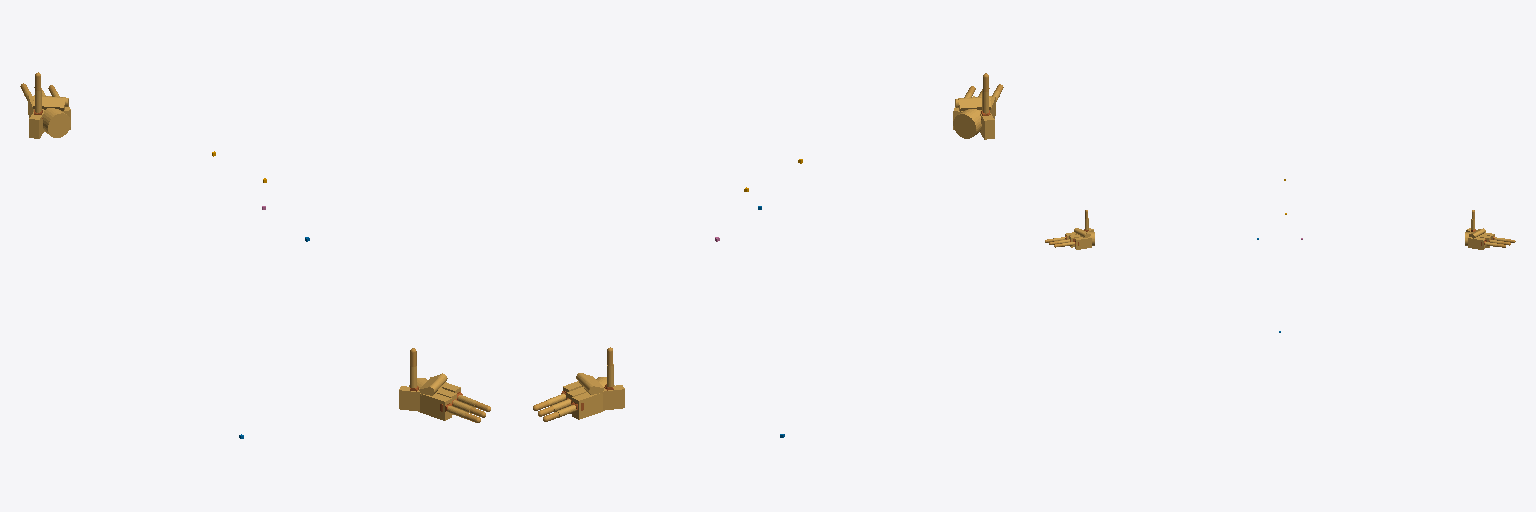
--- Render facts (derived) ---
3 views of the same robot in one strip: view 1: azimuth 30°, elevation 25°; view 2: azimuth 150°, elevation 25°; view 3: azimuth 270°, elevation 25° (orthographic).
Model atlas with 113 links and 112 joints (52 revolute, 1 continuous, 59 fixed), rooted at pelvis, posed every joint at zero.
Links seen in each view (by area): view 1: right_palm, left_palm; view 2: left_palm, right_palm; view 3: none.
Boxes of the visible links, x1,y1,x2,y2 form: right_palm: [399, 373, 460, 420]; left_palm: [28, 95, 70, 138]; left_palm: [563, 373, 624, 419]; right_palm: [953, 96, 995, 139].
Bounding box of the posed robot: 0.2424 × 2.6 × 0.901 m (x, y, z).
Meshes: 31 distinct files referenced, 0 mesh visuals loaded (none loaded); not drawn: 31 (reference not matched to a file when rendering).

robot.urdf — atlas:
<?xml version="1.0" ?>
<!-- =================================================================================== -->
<!-- |    This document was autogenerated by xacro from atlas_v3_sandia_hands.urdf.xacro | -->
<!-- |    EDITING THIS FILE BY HAND IS NOT RECOMMENDED                                 | -->
<!-- =================================================================================== -->
<robot name="atlas" xmlns:xacro="http://www.ros.org/wiki/xacro">
  <link name="l_clav">
    <inertial>
      <mass value="3.45"/>
      <origin rpy="0 -0 0" xyz="0 0.048 0.084"/>
      <inertia ixx="0.011" ixy="0" ixz="0" iyy="0.009" iyz="-0.004" izz="0.004"/>
    </inertial>
    <visual>
      <origin rpy="0 -0 0" xyz="0 0 0"/>
      <geometry>
        <mesh filename="package://atlas_description/meshes_v3/l_clav.dae" scale="1 1 1"/>
      </geometry>
    </visual>
    <collision>
      <origin rpy="0 -0 0" xyz="0 0 0"/>
      <geometry>
        <mesh filename="package://atlas_description/meshes_v3/l_clav.stl" scale="1 1 1"/>
      </geometry>
    </collision>
  </link>
  <link name="l_farm">
    <inertial>
      <mass value="3.388"/>
      <origin rpy="0 -0 0" xyz="0 -0.065 0"/>
      <inertia ixx="0.00656" ixy="0" ixz="0" iyy="0.00358" iyz="0" izz="0.00656"/>
    </inertial>
    <visual>
      <origin rpy="0 -0 0" xyz="0 0 0"/>
      <geometry>
        <mesh filename="package://atlas_description/meshes_v3/l_farm.dae" scale="1 1 1"/>
      </geometry>
    </visual>
    <collision>
      <origin rpy="0 -0 0" xyz="0 0 0"/>
      <geometry>
        <mesh filename="package://atlas_description/meshes_v3/l_farm.stl" scale="1 1 1"/>
      </geometry>
    </collision>
  </link>
  <link name="l_foot">
    <inertial>
      <mass value="2.05"/>
      <origin rpy="0 -0 0" xyz="0.027 0 -0.067"/>
      <inertia ixx="0.002" ixy="0" ixz="0" iyy="0.007" iyz="0" izz="0.008"/>
    </inertial>
    <visual>
      <origin rpy="0 -0 0" xyz="0 0 0"/>
      <geometry>
        <mesh filename="package://atlas_description/meshes_v3/l_foot.dae" scale="1 1 1"/>
      </geometry>
    </visual>
    <collision>
      <origin rpy="0 -0 0" xyz="0 0 0"/>
      <geometry>
        <mesh filename="package://atlas_description/meshes_v3/l_foot.stl" scale="1 1 1"/>
      </geometry>
    </collision>
  </link>
  <link name="l_hand">
    <inertial>
      <mass value="2.509"/>
      <origin rpy="0 -0 0" xyz="0 0 0"/>
      <inertia ixx="0.00265" ixy="0" ixz="0" iyy="0.00446" iyz="0" izz="0.00446"/>
    </inertial>
    <visual>
      <origin rpy="0 -0 0" xyz="0 0 0"/>
      <geometry>
        <mesh filename="package://atlas_description/meshes_v3/l_hand.dae" scale="1 1 1"/>
      </geometry>
    </visual>
    <collision>
      <origin rpy="0 -0 0" xyz="0 0 0"/>
      <geometry>
        <mesh filename="package://atlas_description/meshes_v3/l_hand.stl" scale="1 1 1"/>
      </geometry>
    </collision>
  </link>
  <link name="l_larm">
    <inertial>
      <mass value="2.509"/>
      <origin rpy="0 -0 0" xyz="0 0 0"/>
      <inertia ixx="0.00265" ixy="0" ixz="0" iyy="0.00446" iyz="0" izz="0.00446"/>
    </inertial>
    <visual>
      <origin rpy="0 -0 0" xyz="0 0 0"/>
      <geometry>
        <mesh filename="package://atlas_description/meshes_v3/l_larm.dae" scale="1 1 1"/>
      </geometry>
    </visual>
    <collision>
      <origin rpy="0 -0 0" xyz="0 0 0"/>
      <geometry>
        <mesh filename="package://atlas_description/meshes_v3/l_larm.stl" scale="1 1 1"/>
      </geometry>
    </collision>
  </link>
  <link name="l_lglut">
    <inertial>
      <mass value="0.866"/>
      <origin rpy="0 -0 0" xyz="0.0133341 0.0170484 -0.0312052"/>
      <inertia ixx="0.000691326" ixy="-2.24344e-05" ixz="2.50508e-06" iyy="0.00126856" iyz="0.000137862" izz="0.00106487"/>
    </inertial>
    <visual>
      <origin rpy="0 -0 0" xyz="0 0 0"/>
      <geometry>
        <mesh filename="package://atlas_description/meshes_v3/l_lglut.dae" scale="1 1 1"/>
      </geometry>
    </visual>
    <collision>
      <origin rpy="0 -0 0" xyz="0 0 0"/>
      <geometry>
        <mesh filename="package://atlas_description/meshes_v3/l_lglut.stl" scale="1 1 1"/>
      </geometry>
    </collision>
  </link>
  <link name="l_lleg">
    <inertial>
      <mass value="5.479"/>
      <origin rpy="0 -0 0" xyz="0.001 0 -0.187"/>
      <inertia ixx="0.077" ixy="0" ixz="-0.003" iyy="0.076" iyz="0" izz="0.01"/>
    </inertial>
    <visual>
      <origin rpy="0 -0 0" xyz="0 0 0"/>
      <geometry>
        <mesh filename="package://atlas_description/meshes_v3/l_lleg.dae" scale="1 1 1"/>
      </geometry>
    </visual>
    <collision>
      <origin rpy="0 -0 0" xyz="0 0 0"/>
      <geometry>
        <mesh filename="package://atlas_description/meshes_v3/l_lleg.stl" scale="1 1 1"/>
      </geometry>
    </collision>
  </link>
  <link name="l_scap">
    <inertial>
      <mass value="3.012"/>
      <origin rpy="0 -0 0" xyz="0 0 0"/>
      <inertia ixx="0.00319" ixy="0" ixz="0" iyy="0.00583" iyz="0" izz="0.00583"/>
    </inertial>
    <visual>
      <origin rpy="0 -0 0" xyz="0 0 0"/>
      <geometry>
        <mesh filename="package://atlas_description/meshes_v3/l_scap.dae" scale="1 1 1"/>
      </geometry>
    </visual>
    <collision>
      <origin rpy="0 -0 0" xyz="0 0 0"/>
      <geometry>
        <mesh filename="package://atlas_description/meshes_v3/l_scap.stl" scale="1 1 1"/>
      </geometry>
    </collision>
  </link>
  <link name="l_talus">
    <inertial>
      <mass value="0.125"/>
      <origin rpy="0 -0 0" xyz="0 0 0"/>
      <inertia ixx="1.01674e-05" ixy="0" ixz="0" iyy="8.42775e-06" iyz="0" izz="1.30101e-05"/>
    </inertial>
    <visual>
      <origin rpy="0 -0 0" xyz="0 0 0"/>
      <geometry>
        <mesh filename="package://atlas_description/meshes_v3/l_talus.dae" scale="1 1 1"/>
      </geometry>
    </visual>
    <collision>
      <origin rpy="0 -0 0" xyz="0 0 0"/>
      <geometry>
        <mesh filename="package://atlas_description/meshes_v3/l_talus.stl" scale="1 1 1"/>
      </geometry>
    </collision>
  </link>
  <link name="l_uarm">
    <inertial>
      <mass value="3.388"/>
      <origin rpy="0 -0 0" xyz="0 -0.065 0"/>
      <inertia ixx="0.00656" ixy="0" ixz="0" iyy="0.00358" iyz="0" izz="0.00656"/>
    </inertial>
    <visual>
      <origin rpy="0 -0 0" xyz="0 0 0"/>
      <geometry>
        <mesh filename="package://atlas_description/meshes_v3/l_uarm.dae" scale="1 1 1"/>
      </geometry>
    </visual>
    <collision>
      <origin rpy="0 -0 0" xyz="0 0 0"/>
      <geometry>
        <mesh filename="package://atlas_description/meshes_v3/l_uarm.stl" scale="1 1 1"/>
      </geometry>
    </collision>
  </link>
  <link name="l_uglut">
    <inertial>
      <mass value="0.648"/>
      <origin rpy="0 -0 0" xyz="0.00529262 -0.00344732 0.00313046"/>
      <inertia ixx="0.00074276" ixy="-3.79607e-08" ixz="-2.79549e-05" iyy="0.000688179" iyz="-3.2735e-08" izz="0.00041242"/>
    </inertial>
    <visual>
      <origin rpy="0 -0 0" xyz="0 0 0"/>
      <geometry>
        <mesh filename="package://atlas_description/meshes_v3/l_uglut.dae" scale="1 1 1"/>
      </geometry>
    </visual>
    <collision>
      <origin rpy="0 -0 0" xyz="0 0 0"/>
      <geometry>
        <mesh filename="package://atlas_description/meshes_v3/l_uglut.stl" scale="1 1 1"/>
      </geometry>
    </collision>
  </link>
  <link name="l_uleg">
    <inertial>
      <mass value="9.209"/>
      <origin rpy="0 -0 0" xyz="0 0 -0.21"/>
      <inertia ixx="0.09" ixy="0" ixz="0" iyy="0.09" iyz="0" izz="0.02"/>
    </inertial>
    <visual>
      <origin rpy="0 -0 0" xyz="0 0 0"/>
      <geometry>
        <mesh filename="package://atlas_description/meshes_v3/l_uleg.dae" scale="1 1 1"/>
      </geometry>
    </visual>
    <collision>
      <origin rpy="0 -0 0" xyz="0 0 0"/>
      <geometry>
        <mesh filename="package://atlas_description/meshes_v3/l_uleg.stl" scale="1 1 1"/>
      </geometry>
    </collision>
  </link>
  <link name="ltorso">
    <inertial>
      <mass value="2.409"/>
      <origin rpy="0 -0 0" xyz="-0.0112984 -3.15366e-06 0.0746835"/>
      <inertia ixx="0.0039092" ixy="-5.04491e-08" ixz="-0.000342157" iyy="0.00341694" iyz="4.87119e-07" izz="0.00174492"/>
    </inertial>
    <visual>
      <origin rpy="0 -0 0" xyz="0 0 0"/>
      <geometry>
        <mesh filename="package://atlas_description/meshes_v3/ltorso.dae" scale="1 1 1"/>
      </geometry>
    </visual>
    <collision>
      <origin rpy="0 -0 0" xyz="0 0 0"/>
      <geometry>
        <mesh filename="package://atlas_description/meshes_v3/ltorso.stl" scale="1 1 1"/>
      </geometry>
    </collision>
  </link>
  <link name="mtorso">
    <inertial>
      <mass value="0.69"/>
      <origin rpy="0 -0 0" xyz="-0.00816266 -0.0131245 0.0305974"/>
      <inertia ixx="0.000454181" ixy="-6.10764e-05" ixz="3.94009e-05" iyy="0.000483282" iyz="5.27463e-05" izz="0.000444215"/>
    </inertial>
    <visual>
      <origin rpy="0 -0 0" xyz="0 0 0"/>
      <geometry>
        <mesh filename="package://atlas_description/meshes_v3/mtorso.dae" scale="1 1 1"/>
      </geometry>
    </visual>
    <collision>
      <origin rpy="0 -0 0" xyz="0 0 0"/>
      <geometry>
        <mesh filename="package://atlas_description/meshes_v3/mtorso.stl" scale="1 1 1"/>
      </geometry>
    </collision>
  </link>
  <link name="pelvis">
    <inertial>
      <mass value="17.882"/>
      <origin rpy="0 -0 0" xyz="0.0111 0 0.0271"/>
      <inertia ixx="0.1244" ixy="0.0008" ixz="-0.0007" iyy="0.0958" iyz="-0.0005" izz="0.1167"/>
    </inertial>
    <visual>
      <origin rpy="0 -0 0" xyz="0 0 0"/>
      <geometry>
        <mesh filename="package://atlas_description/meshes_v3/pelvis.dae" scale="1 1 1"/>
      </geometry>
    </visual>
    <collision>
      <origin rpy="0 -0 0" xyz="0 0 0"/>
      <geometry>
        <mesh filename="package://atlas_description/meshes_v3/pelvis.stl" scale="1 1 1"/>
      </geometry>
    </collision>
  </link>
  <link name="r_clav">
    <inertial>
      <mass value="3.45"/>
      <origin rpy="0 -0 0" xyz="0 -0.048 0.084"/>
      <inertia ixx="0.011" ixy="0" ixz="0" iyy="0.009" iyz="0.004" izz="0.004"/>
    </inertial>
    <visual>
      <origin rpy="0 -0 0" xyz="0 0 0"/>
      <geometry>
        <mesh filename="package://atlas_description/meshes_v3/r_clav.dae" scale="1 1 1"/>
      </geometry>
    </visual>
    <collision>
      <origin rpy="0 -0 0" xyz="0 0 0"/>
      <geometry>
        <mesh filename="package://atlas_description/meshes_v3/r_clav.stl" scale="1 1 1"/>
      </geometry>
    </collision>
  </link>
  <link name="r_farm">
    <inertial>
      <mass value="3.388"/>
      <origin rpy="0 -0 0" xyz="0 0.065 0"/>
      <inertia ixx="0.00656" ixy="0" ixz="0" iyy="0.00358" iyz="0" izz="0.00656"/>
    </inertial>
    <visual>
      <origin rpy="0 -0 0" xyz="0 0 0"/>
      <geometry>
        <mesh filename="package://atlas_description/meshes_v3/r_farm.dae" scale="1 1 1"/>
      </geometry>
    </visual>
    <collision>
      <origin rpy="0 -0 0" xyz="0 0 0"/>
      <geometry>
        <mesh filename="package://atlas_description/meshes_v3/r_farm.stl" scale="1 1 1"/>
      </geometry>
    </collision>
  </link>
  <link name="r_foot">
    <inertial>
      <mass value="2.05"/>
      <origin rpy="0 -0 0" xyz="0.027 0 -0.067"/>
      <inertia ixx="0.002" ixy="0" ixz="0" iyy="0.007" iyz="0" izz="0.008"/>
    </inertial>
    <visual>
      <origin rpy="0 -0 0" xyz="0 0 0"/>
      <geometry>
        <mesh filename="package://atlas_description/meshes_v3/r_foot.dae" scale="1 1 1"/>
      </geometry>
    </visual>
    <collision>
      <origin rpy="0 -0 0" xyz="0 0 0"/>
      <geometry>
        <mesh filename="package://atlas_description/meshes_v3/r_foot.stl" scale="1 1 1"/>
      </geometry>
    </collision>
  </link>
  <link name="r_hand">
    <inertial>
      <mass value="2.509"/>
      <origin rpy="0 -0 0" xyz="0 0 0"/>
      <inertia ixx="0.00265" ixy="0" ixz="0" iyy="0.00446" iyz="0" izz="0.00446"/>
    </inertial>
    <visual>
      <origin rpy="0 -0 0" xyz="0 0 0"/>
      <geometry>
        <mesh filename="package://atlas_description/meshes_v3/r_hand.dae" scale="1 1 1"/>
      </geometry>
    </visual>
    <collision>
      <origin rpy="0 -0 0" xyz="0 0 0"/>
      <geometry>
        <mesh filename="package://atlas_description/meshes_v3/r_hand.stl" scale="1 1 1"/>
      </geometry>
    </collision>
  </link>
  <link name="r_larm">
    <inertial>
      <mass value="2.509"/>
      <origin rpy="0 -0 0" xyz="0 0 0"/>
      <inertia ixx="0.00265" ixy="0" ixz="0" iyy="0.00446" iyz="0" izz="0.00446"/>
    </inertial>
    <visual>
      <origin rpy="0 -0 0" xyz="0 0 0"/>
      <geometry>
        <mesh filename="package://atlas_description/meshes_v3/r_larm.dae" scale="1 1 1"/>
      </geometry>
    </visual>
    <collision>
      <origin rpy="0 -0 0" xyz="0 0 0"/>
      <geometry>
        <mesh filename="package://atlas_description/meshes_v3/r_larm.stl" scale="1 1 1"/>
      </geometry>
    </collision>
  </link>
  <link name="r_lglut">
    <inertial>
      <mass value="0.866"/>
      <origin rpy="0 -0 0" xyz="0.0133341 -0.0170484 -0.0312052"/>
      <inertia ixx="0.000691326" ixy="2.24344e-05" ixz="2.50508e-06" iyy="0.00126856" iyz="-0.000137862" izz="0.00106487"/>
    </inertial>
    <visual>
      <origin rpy="0 -0 0" xyz="0 0 0"/>
      <geometry>
        <mesh filename="package://atlas_description/meshes_v3/r_lglut.dae" scale="1 1 1"/>
      </geometry>
    </visual>
    <collision>
      <origin rpy="0 -0 0" xyz="0 0 0"/>
      <geometry>
        <mesh filename="package://atlas_description/meshes_v3/r_lglut.stl" scale="1 1 1"/>
      </geometry>
    </collision>
  </link>
  <link name="r_lleg">
    <inertial>
      <mass value="5.479"/>
      <origin rpy="0 -0 0" xyz="0.001 0 -0.187"/>
      <inertia ixx="0.077" ixy="-0" ixz="-0.003" iyy="0.076" iyz="-0" izz="0.01"/>
    </inertial>
    <visual>
      <origin rpy="0 -0 0" xyz="0 0 0"/>
      <geometry>
        <mesh filename="package://atlas_description/meshes_v3/r_lleg.dae" scale="1 1 1"/>
      </geometry>
    </visual>
    <collision>
      <origin rpy="0 -0 0" xyz="0 0 0"/>
      <geometry>
        <mesh filename="package://atlas_description/meshes_v3/r_lleg.stl" scale="1 1 1"/>
      </geometry>
    </collision>
  </link>
  <link name="r_scap">
    <inertial>
      <mass value="3.012"/>
      <origin rpy="0 -0 0" xyz="0 0 0"/>
      <inertia ixx="0.00319" ixy="0" ixz="0" iyy="0.00583" iyz="0" izz="0.00583"/>
    </inertial>
    <visual>
      <origin rpy="0 -0 0" xyz="0 0 0"/>
      <geometry>
        <mesh filename="package://atlas_description/meshes_v3/r_scap.dae" scale="1 1 1"/>
      </geometry>
    </visual>
    <collision>
      <origin rpy="0 -0 0" xyz="0 0 0"/>
      <geometry>
        <mesh filename="package://atlas_description/meshes_v3/r_scap.stl" scale="1 1 1"/>
      </geometry>
    </collision>
  </link>
  <link name="r_talus">
    <inertial>
      <mass value="0.125"/>
      <origin rpy="0 -0 0" xyz="0 0 0"/>
      <inertia ixx="1.01674e-05" ixy="0" ixz="0" iyy="8.42775e-06" iyz="0" izz="1.30101e-05"/>
    </inertial>
    <visual>
      <origin rpy="0 -0 0" xyz="0 0 0"/>
      <geometry>
        <mesh filename="package://atlas_description/meshes_v3/r_talus.dae" scale="1 1 1"/>
      </geometry>
    </visual>
    <collision>
      <origin rpy="0 -0 0" xyz="0 0 0"/>
      <geometry>
        <mesh filename="package://atlas_description/meshes_v3/r_talus.stl" scale="1 1 1"/>
      </geometry>
    </collision>
  </link>
  <link name="r_uarm">
    <inertial>
      <mass value="3.388"/>
      <origin rpy="0 -0 0" xyz="0 0.065 0"/>
      <inertia ixx="0.00656" ixy="0" ixz="0" iyy="0.00358" iyz="0" izz="0.00656"/>
    </inertial>
    <visual>
      <origin rpy="0 -0 0" xyz="0 0 0"/>
      <geometry>
        <mesh filename="package://atlas_description/meshes_v3/r_uarm.dae" scale="1 1 1"/>
      </geometry>
    </visual>
    <collision>
      <origin rpy="0 -0 0" xyz="0 0 0"/>
      <geometry>
        <mesh filename="package://atlas_description/meshes_v3/r_uarm.stl" scale="1 1 1"/>
      </geometry>
    </collision>
  </link>
  <link name="r_uglut">
    <inertial>
      <mass value="0.648"/>
      <origin rpy="0 -0 0" xyz="0.00529262 0.00344732 0.00313046"/>
      <inertia ixx="0.00074276" ixy="3.79607e-08" ixz="-2.79549e-05" iyy="0.000688179" iyz="3.2735e-08" izz="0.00041242"/>
    </inertial>
    <visual>
      <origin rpy="0 -0 0" xyz="0 0 0"/>
      <geometry>
        <mesh filename="package://atlas_description/meshes_v3/r_uglut.dae" scale="1 1 1"/>
      </geometry>
    </visual>
    <collision>
      <origin rpy="0 -0 0" xyz="0 0 0"/>
      <geometry>
        <mesh filename="package://atlas_description/meshes_v3/r_uglut.stl" scale="1 1 1"/>
      </geometry>
    </collision>
  </link>
  <link name="r_uleg">
    <inertial>
      <mass value="9.209"/>
      <origin rpy="0 -0 0" xyz="0 0 -0.21"/>
      <inertia ixx="0.09" ixy="0" ixz="0" iyy="0.09" iyz="0" izz="0.02"/>
    </inertial>
    <visual>
      <origin rpy="0 -0 0" xyz="0 0 0"/>
      <geometry>
        <mesh filename="package://atlas_description/meshes_v3/r_uleg.dae" scale="1 1 1"/>
      </geometry>
    </visual>
    <collision>
      <origin rpy="0 -0 0" xyz="0 0 0"/>
      <geometry>
        <mesh filename="package://atlas_description/meshes_v3/r_uleg.stl" scale="1 1 1"/>
      </geometry>
    </collision>
  </link>
  <link name="utorso">
    <inertial>
      <mass value="52.007"/>
      <origin rpy="0 -0 0" xyz="-0.0923 0 0.3"/>
      <inertia ixx="1.466" ixy="0.00362" ixz="0.336" iyy="1.51" iyz="0.001" izz="1.3"/>
    </inertial>
    <visual>
      <origin rpy="0 -0 0" xyz="0 0 0"/>
      <geometry>
        <mesh filename="package://atlas_description/meshes_v3/utorso.dae" scale="1 1 1"/>
      </geometry>
    </visual>
    <collision>
      <origin rpy="0 -0 0" xyz="0 0 0"/>
      <geometry>
        <mesh filename="package://atlas_description/meshes_v3/utorso.stl" scale="1 1 1"/>
      </geometry>
    </collision>
    <visual>
      <origin rpy="0 -0 0" xyz="0 0 0"/>
      <geometry>
        <mesh filename="package://atlas_description/meshes_v3/utorso_pack.dae" scale="1 1 1"/>
      </geometry>
    </visual>
    <collision>
      <origin rpy="0 -0 0" xyz="0 0 0"/>
      <geometry>
        <mesh filename="package://atlas_description/meshes_v3/utorso_pack.stl" scale="1 1 1"/>
      </geometry>
    </collision>
  </link>
  <joint name="back_bkx" type="revolute">
    <origin rpy="0 -0 0" xyz="0 0 0.05"/>
    <axis xyz="1 0 0"/>
    <parent link="mtorso"/>
    <child link="utorso"/>
    <dynamics damping="0.1" friction="0"/>
    <limit effort="200" lower="-0.698132" upper="0.698132" velocity="12"/>
    <safety_controller k_position="100" k_velocity="100" soft_lower_limit="-10.6981" soft_upper_limit="10.6981"/>
  </joint>
  <joint name="back_bky" type="revolute">
    <origin rpy="0 -0 0" xyz="0 0 0.16197"/>
    <axis xyz="0 1 0"/>
    <parent link="ltorso"/>
    <child link="mtorso"/>
    <dynamics damping="0.1" friction="0"/>
    <limit effort="206.843" lower="-0.610691" upper="0.438427" velocity="12"/>
    <safety_controller k_position="100" k_velocity="100" soft_lower_limit="-10.6107" soft_upper_limit="10.4384"/>
  </joint>
  <joint name="back_bkz" type="revolute">
    <origin rpy="0 -0 0" xyz="-0.0125 0 0"/>
    <axis xyz="0 0 1"/>
    <parent link="pelvis"/>
    <child link="ltorso"/>
    <dynamics damping="0.1" friction="0"/>
    <limit effort="124.016" lower="-0.663225" upper="0.663225" velocity="12"/>
    <safety_controller k_position="100" k_velocity="100" soft_lower_limit="-10.6632" soft_upper_limit="10.6632"/>
  </joint>
  <joint name="l_arm_elx" type="revolute">
    <origin rpy="0 -0 0" xyz="0 0.119 0.00921"/>
    <axis xyz="1 0 0"/>
    <parent link="l_uarm"/>
    <child link="l_larm"/>
    <dynamics damping="0.1" friction="0"/>
    <limit effort="114" lower="0" upper="2.35619" velocity="12"/>
    <safety_controller k_position="100" k_velocity="100" soft_lower_limit="-10" soft_upper_limit="12.3562"/>
  </joint>
  <joint name="l_arm_ely" type="revolute">
    <origin rpy="0 -0 0" xyz="0 0.187 0.016"/>
    <axis xyz="0 1 0"/>
    <parent link="l_scap"/>
    <child link="l_uarm"/>
    <dynamics damping="0.1" friction="0"/>
    <limit effort="114" lower="0" upper="3.14159" velocity="12"/>
    <safety_controller k_position="100" k_velocity="100" soft_lower_limit="-10" soft_upper_limit="13.1416"/>
  </joint>
  <joint name="l_arm_shx" type="revolute">
    <origin rpy="0 -0 0" xyz="0 0.14035 0.19609"/>
    <axis xyz="1 0 0"/>
    <parent link="l_clav"/>
    <child link="l_scap"/>
    <dynamics damping="0.1" friction="0"/>
    <limit effort="170" lower="-1.5708" upper="1.5708" velocity="12"/>
    <safety_controller k_position="100" k_velocity="100" soft_lower_limit="-11.5708" soft_upper_limit="11.5708"/>
  </joint>
  <joint name="l_arm_shy" type="revolute">
    <origin rpy="0 -0 0" xyz="0.06441 0.13866 0.10718"/>
    <axis xyz="0 0.5 0.866025"/>
    <parent link="utorso"/>
    <child link="l_clav"/>
    <dynamics damping="0.1" friction="0"/>
    <limit effort="212" lower="-1.5708" upper="0.785398" velocity="12"/>
    <safety_controller k_position="100" k_velocity="100" soft_lower_limit="-11.5708" soft_upper_limit="10.7854"/>
  </joint>
  <joint name="l_arm_wrx" type="revolute">
    <origin rpy="0 -0 0" xyz="0 0.119 0.00921"/>
    <axis xyz="1 0 0"/>
    <parent link="l_farm"/>
    <child link="l_hand"/>
    <dynamics damping="0.1" friction="0"/>
    <limit effort="60" lower="-1.1781" upper="1.1781" velocity="12"/>
    <safety_controller k_position="100" k_velocity="100" soft_lower_limit="-11.1781" soft_upper_limit="11.1781"/>
  </joint>
  <joint name="l_arm_wry" type="revolute">
    <origin rpy="0 -0 0" xyz="0 0.187 -0.00921"/>
    <axis xyz="0 1 0"/>
    <parent link="l_larm"/>
    <child link="l_farm"/>
    <dynamics damping="0.1" friction="0"/>
    <limit effort="114" lower="0" upper="3.14159" velocity="12"/>
    <safety_controller k_position="100" k_velocity="100" soft_lower_limit="-10" soft_upper_limit="13.1416"/>
  </joint>
  <joint name="l_leg_akx" type="revolute">
    <origin rpy="0 -0 0" xyz="0 0 0"/>
    <axis xyz="1 0 0"/>
    <parent link="l_talus"/>
    <child link="l_foot"/>
    <dynamics damping="0.1" friction="0"/>
    <limit effort="90" lower="-0.8" upper="0.8" velocity="12"/>
    <safety_controller k_position="100" k_velocity="100" soft_lower_limit="-10.8" soft_upper_limit="10.8"/>
  </joint>
  <joint name="l_leg_aky" type="revolute">
    <origin rpy="0 -0 0" xyz="0 0 -0.422"/>
    <axis xyz="0 1 0"/>
    <parent link="l_lleg"/>
    <child link="l_talus"/>
    <dynamics damping="0.1" friction="0"/>
    <limit effort="700" lower="-1" upper="0.7" velocity="12"/>
    <safety_controller k_position="100" k_velocity="100" soft_lower_limit="-11" soft_upper_limit="10.7"/>
  </joint>
  <joint name="l_leg_hpx" type="revolute">
    <origin rpy="0 -0 0" xyz="0 0 0"/>
    <axis xyz="1 0 0"/>
    <parent link="l_uglut"/>
    <child link="l_lglut"/>
    <dynamics damping="0.1" friction="0"/>
    <limit effort="180" lower="-0.523599" upper="0.523599" velocity="12"/>
    <safety_controller k_position="100" k_velocity="100" soft_lower_limit="-10.5236" soft_upper_limit="10.5236"/>
  </joint>
  <joint name="l_leg_hpy" type="revolute">
    <origin rpy="0 -0 0" xyz="0.05 0 -0.05"/>
    <axis xyz="0 1 0"/>
    <parent link="l_lglut"/>
    <child link="l_uleg"/>
    <dynamics damping="0.1" friction="0"/>
    <limit effort="260" lower="-1.72072" upper="0.524821" velocity="12"/>
    <safety_controller k_position="100" k_velocity="100" soft_lower_limit="-11.7207" soft_upper_limit="10.5248"/>
  </joint>
  <joint name="l_leg_hpz" type="revolute">
    <origin rpy="0 -0 0" xyz="0 0.089 0"/>
    <axis xyz="0 0 1"/>
    <parent link="pelvis"/>
    <child link="l_uglut"/>
    <dynamics damping="0.1" friction="0"/>
    <limit effort="110" lower="-0.174533" upper="1.22173" velocity="12"/>
    <safety_controller k_position="100" k_velocity="100" soft_lower_limit="-10.1745" soft_upper_limit="11.2217"/>
  </joint>
  <joint name="l_leg_kny" type="revolute">
    <origin rpy="0 -0 0" xyz="-0.05 0 -0.374"/>
    <axis xyz="0 1 0"/>
    <parent link="l_uleg"/>
    <child link="l_lleg"/>
    <dynamics damping="0.1" friction="0"/>
    <limit effort="220" lower="0" upper="2.38569" velocity="12"/>
    <safety_controller k_position="100" k_velocity="100" soft_lower_limit="-10" soft_upper_limit="12.3857"/>
  </joint>
  <joint name="neck_ry" type="revolute">
    <origin rpy="0 -0 0" xyz="0.21672 0 0.53796"/>
    <axis xyz="0 1 0"/>
    <parent link="utorso"/>
    <child link="head"/>
    <dynamics damping="0.1" friction="0"/>
    <limit effort="5" lower="-0.602139" upper="1.14494" velocity="12"/>
    <safety_controller k_position="100" k_velocity="100" soft_lower_limit="-10.6021" soft_upper_limit="11.1449"/>
  </joint>
  <joint name="r_arm_elx" type="revolute">
    <origin rpy="0 -0 0" xyz="0 -0.119 0.00921"/>
    <axis xyz="1 0 0"/>
    <parent link="r_uarm"/>
    <child link="r_larm"/>
    <dynamics damping="0.1" friction="0"/>
    <limit effort="114" lower="-2.35619" upper="0" velocity="12"/>
    <safety_controller k_position="100" k_velocity="100" soft_lower_limit="-12.3562" soft_upper_limit="10"/>
  </joint>
  <joint name="r_arm_ely" type="revolute">
    <origin rpy="0 -0 0" xyz="0 -0.187 0.016"/>
    <axis xyz="0 1 0"/>
    <parent link="r_scap"/>
    <child link="r_uarm"/>
    <dynamics damping="0.1" friction="0"/>
    <limit effort="114" lower="0" upper="3.14159" velocity="12"/>
    <safety_controller k_position="100" k_velocity="100" soft_lower_limit="-10" soft_upper_limit="13.1416"/>
  </joint>
  <joint name="r_arm_shx" type="revolute">
    <origin rpy="0 -0 0" xyz="0 -0.14035 0.19609"/>
    <axis xyz="1 0 0"/>
    <parent link="r_clav"/>
    <child link="r_scap"/>
    <dynamics damping="0.1" friction="0"/>
    <limit effort="170" lower="-1.5708" upper="1.5708" velocity="12"/>
    <safety_controller k_position="100" k_velocity="100" soft_lower_limit="-11.5708" soft_upper_limit="11.5708"/>
  </joint>
  <joint name="r_arm_shy" type="revolute">
    <origin rpy="0 -0 0" xyz="0.06441 -0.13866 0.10718"/>
    <axis xyz="0 0.5 -0.866025"/>
    <parent link="utorso"/>
    <child link="r_clav"/>
    <dynamics damping="0.1" friction="0"/>
    <limit effort="212" lower="-1.5708" upper="0.785398" velocity="12"/>
    <safety_controller k_position="100" k_velocity="100" soft_lower_limit="-11.5708" soft_upper_limit="10.7854"/>
  </joint>
  <joint name="r_arm_wrx" type="revolute">
    <origin rpy="0 -0 0" xyz="0 -0.119 0.00921"/>
    <axis xyz="1 0 0"/>
    <parent link="r_farm"/>
    <child link="r_hand"/>
    <dynamics damping="0.1" friction="0"/>
    <limit effort="60" lower="-1.1781" upper="1.1781" velocity="12"/>
    <safety_controller k_position="100" k_velocity="100" soft_lower_limit="-11.1781" soft_upper_limit="11.1781"/>
  </joint>
  <joint name="r_arm_wry" type="revolute">
    <origin rpy="0 -0 0" xyz="0 -0.187 -0.00921"/>
    <axis xyz="0 1 0"/>
    <parent link="r_larm"/>
    <child link="r_farm"/>
    <dynamics damping="0.1" friction="0"/>
    <limit effort="114" lower="0" upper="3.14159" velocity="12"/>
    <safety_controller k_position="100" k_velocity="100" soft_lower_limit="-10" soft_upper_limit="13.1416"/>
  </joint>
  <joint name="r_leg_akx" type="revolute">
    <origin rpy="0 -0 0" xyz="0 0 0"/>
    <axis xyz="1 0 0"/>
    <parent link="r_talus"/>
    <child link="r_foot"/>
    <dynamics damping="0.1" friction="0"/>
    <limit effort="90" lower="-0.8" upper="0.8" velocity="12"/>
    <safety_controller k_position="100" k_velocity="100" soft_lower_limit="-10.8" soft_upper_limit="10.8"/>
  </joint>
  <joint name="r_leg_aky" type="revolute">
    <origin rpy="0 -0 0" xyz="0 0 -0.422"/>
    <axis xyz="0 1 0"/>
    <parent link="r_lleg"/>
    <child link="r_talus"/>
    <dynamics damping="0.1" friction="0"/>
    <limit effort="700" lower="-1" upper="0.7" velocity="12"/>
    <safety_controller k_position="100" k_velocity="100" soft_lower_limit="-11" soft_upper_limit="10.7"/>
  </joint>
  <joint name="r_leg_hpx" type="revolute">
    <origin rpy="0 -0 0" xyz="0 0 0"/>
    <axis xyz="1 0 0"/>
    <parent link="r_uglut"/>
    <child link="r_lglut"/>
    <dynamics damping="0.1" friction="0"/>
    <limit effort="180" lower="-0.523599" upper="0.523599" velocity="12"/>
    <safety_controller k_position="100" k_velocity="100" soft_lower_limit="-10.5236" soft_upper_limit="10.5236"/>
  </joint>
  <joint name="r_leg_hpy" type="revolute">
    <origin rpy="0 -0 0" xyz="0.05 0 -0.05"/>
    <axis xyz="0 1 0"/>
    <parent link="r_lglut"/>
    <child link="r_uleg"/>
    <dynamics damping="0.1" friction="0"/>
    <limit effort="260" lower="-1.72072" upper="0.524821" velocity="12"/>
    <safety_controller k_position="100" k_velocity="100" soft_lower_limit="-11.7207" soft_upper_limit="10.5248"/>
  </joint>
  <joint name="r_leg_hpz" type="revolute">
    <origin rpy="0 -0 0" xyz="0 -0.089 0"/>
    <axis xyz="0 0 1"/>
    <parent link="pelvis"/>
    <child link="r_uglut"/>
    <dynamics damping="0.1" friction="0"/>
    <limit effort="110" lower="-1.22173" upper="0.174533" velocity="12"/>
    <safety_controller k_position="100" k_velocity="100" soft_lower_limit="-11.2217" soft_upper_limit="10.1745"/>
  </joint>
  <joint name="r_leg_kny" type="revolute">
    <origin rpy="0 -0 0" xyz="-0.05 0 -0.374"/>
    <axis xyz="0 1 0"/>
    <parent link="r_uleg"/>
    <child link="r_lleg"/>
    <dynamics damping="0.1" friction="0"/>
    <limit effort="220" lower="0" upper="2.38569" velocity="12"/>
    <safety_controller k_position="100" k_velocity="100" soft_lower_limit="-10" soft_upper_limit="12.3857"/>
  </joint>
  <link name="r_situational_awareness_camera_link">
    <inertial>
      <mass value="0.1"/>
      <origin xyz="0 0 0"/>
      <inertia ixx="0.00001" ixy="0" ixz="0" iyy="0.00001" iyz="0" izz="0.00001"/>
    </inertial>
    <visual>
      <origin rpy="0 0 0" xyz="0 0 0"/>
      <geometry>
        <box size="0.01 0.01 0.01"/>
      </geometry>
    </visual>
  </link>
  <joint name="r_situational_awareness_camera_joint" type="fixed">
    <parent link="utorso"/>
    <child link="r_situational_awareness_camera_link"/>
    <!-- if camera points x-forward, bottom towards front of robot, 15 degree yaw forwards from
           lateral (+y) view -->
    <origin rpy="1.57079633 0 -1.30899694" xyz="0.216409 -0.121799 0.406759"/>
  </joint>
  <joint name="r_situational_awareness_camera_optical_frame_joint" type="fixed">
    <origin rpy="-1.5708 0.0 -1.5708" xyz="0 0 0"/>
    <parent link="r_situational_awareness_camera_link"/>
    <child link="r_situational_awareness_camera_optical_frame"/>
  </joint>
  <link name="r_situational_awareness_camera_optical_frame"/>
  <link name="l_situational_awareness_camera_link">
    <inertial>
      <mass value="0.1"/>
      <origin xyz="0 0 0"/>
      <inertia ixx="0.00001" ixy="0" ixz="0" iyy="0.00001" iyz="0" izz="0.00001"/>
    </inertial>
    <visual>
      <origin rpy="0 0 0" xyz="0 0 0"/>
      <geometry>
        <box size="0.01 0.01 0.01"/>
      </geometry>
    </visual>
  </link>
  <joint name="l_situational_awareness_camera_joint" type="fixed">
    <parent link="utorso"/>
    <child link="l_situational_awareness_camera_link"/>
    <!-- if camera points x-forward, bottom towards front of robot, 15 degree yaw forwards from
           lateral (+y) view -->
    <origin rpy="-1.57079633 0 1.30899694" xyz="0.216409 0.121799 0.406759"/>
  </joint>
  <joint name="l_situational_awareness_camera_optical_frame_joint" type="fixed">
    <origin rpy="-1.5708 0.0 -1.5708" xyz="0 0 0"/>
    <parent link="l_situational_awareness_camera_link"/>
    <child link="l_situational_awareness_camera_optical_frame"/>
  </joint>
  <link name="l_situational_awareness_camera_optical_frame"/>
  <link name="rear_situational_awareness_camera_link">
    <inertial>
      <mass value="0.1"/>
      <origin xyz="0 0 0"/>
      <inertia ixx="0.00001" ixy="0" ixz="0" iyy="0.00001" iyz="0" izz="0.00001"/>
    </inertial>
    <visual>
      <origin rpy="0 0 0" xyz="0 0 0"/>
      <geometry>
        <box size="0.01 0.01 0.01"/>
      </geometry>
    </visual>
  </link>
  <joint name="rear_situational_awareness_camera_joint" type="fixed">
    <parent link="utorso"/>
    <child link="rear_situational_awareness_camera_link"/>
    <!-- if camera points towards -X direction of the utorso link frame -->
    <origin rpy="0 0 3.14159" xyz="-0.0026 0.0264 0.6649"/>
  </joint>
  <joint name="rear_situational_awareness_camera_optical_frame_joint" type="fixed">
    <origin rpy="-1.5708 0.0 -1.5708" xyz="0 0 0"/>
    <parent link="rear_situational_awareness_camera_link"/>
    <child link="rear_situational_awareness_camera_optical_frame"/>
  </joint>
  <link name="rear_situational_awareness_camera_optical_frame"/>
  <link name="right_palm">
    <origin rpy="0 0 0" xyz="0 0 0"/>
    <inertial>
      <mass value="1.303"/>
      <origin xyz="0 0 0"/>
      <!-- solid sphere with 5cm radius -->
      <inertia ixx="0.001303" ixy="0" ixz="0" iyy="0.001303" iyz="0" izz="0.001303"/>
    </inertial>
    <!-- begin simple shape approximation of palm -->
    <collision>
      <origin rpy="0 1.57079632679 -0.9" xyz="0.069 0.016 0.038"/>
      <geometry>
        <cylinder length="0.100" radius="0.013"/>
      </geometry>
    </collision>
    <collision >
      <origin rpy="0.41 0 -0.9" xyz="0.064 0.008 0.021"/>
      <geometry>
        <box size="0.09 .035 .05"/>
      </geometry>
    </collision>
    <collision >
      <origin rpy="0 1.57079632679 0" xyz="0.02 0 -0.005"/>
      <geometry>
        <cylinder length="0.05" radius="0.038"/>
      </geometry>
    </collision>
    <collision >
      <origin rpy="0 0 0.37" xyz="0.11 -0.01 -0.005"/>
      <geometry>
        <box size="0.09 .03 .06"/>
      </geometry>
    </collision>
    <collision >
      <origin rpy="0 0 0.37" xyz="0.09 0.02 -0.005"/>
      <geometry>
        <box size="0.09 .03 .06"/>
      </geometry>
    </collision>
    <collision >
      <origin rpy="0 0 0.37" xyz="0.060 0.05 -0.005"/>
      <geometry>
        <box size="0.09 .03 .06"/>
      </geometry>
    </collision>
    <collision >
      <origin rpy="0 0 0.79" xyz="0.044 -0.04 -0.005"/>
      <geometry>
        <box size="0.09 .03 .06"/>
      </geometry>
    </collision>
    <!--   end simple shape approximation of palm -->
    <!-- begin visual shape approximation of palm -->
    <visual>
      <origin rpy="0 1.57079632679 -0.9" xyz="0.069 0.016 0.038"/>
      <geometry>
        <cylinder length="0.100" radius="0.013"/>
      </geometry>
      <material name="right_sandia_hand_skin">
        <color rgba="0.835 0.655 0.345 1.0"/>
      </material>
    </visual>
    <visual>
      <origin rpy="0.41 0 -0.9" xyz="0.064 0.008 0.021"/>
      <geometry>
        <box size="0.09 .035 .05"/>
      </geometry>
      <material name="right_sandia_hand_skin">
        <color rgba="0.835 0.655 0.345 1.0"/>
      </material>
    </visual>
    <visual>
      <origin rpy="0 1.57079632679 0" xyz="0.02 0 -0.005"/>
      <geometry>
        <cylinder length="0.05" radius="0.038"/>
      </geometry>
      <material name="right_sandia_hand_skin">
        <color rgba="0.835 0.655 0.345 1.0"/>
      </material>
    </visual>
    <visual>
      <origin rpy="0 0 0.37" xyz="0.11 -0.01 -0.005"/>
      <geometry>
        <box size="0.09 .03 .06"/>
      </geometry>
      <material name="right_sandia_hand_skin">
        <color rgba="0.835 0.655 0.345 1.0"/>
      </material>
    </visual>
    <visual>
      <origin rpy="0 0 0.37" xyz="0.09 0.02 -0.005"/>
      <geometry>
        <box size="0.09 .03 .06"/>
      </geometry>
      <material name="right_sandia_hand_skin">
        <color rgba="0.835 0.655 0.345 1.0"/>
      </material>
    </visual>
    <visual>
      <origin rpy="0 0 0.37" xyz="0.060 0.05 -0.005"/>
      <geometry>
        <box size="0.09 .03 .06"/>
      </geometry>
      <material name="right_sandia_hand_skin">
        <color rgba="0.835 0.655 0.345 1.0"/>
      </material>
    </visual>
    <visual>
      <origin rpy="0 0 0.79" xyz="0.044 -0.04 -0.005"/>
      <geometry>
        <box size="0.09 .03 .06"/>
      </geometry>
      <material name="right_sandia_hand_skin">
        <color rgba="0.835 0.655 0.345 1.0"/>
      </material>
    </visual>
    <!--   end visual shape approximation of palm -->
    <!-- begin collision mesh of f2 ->
      <collision >
        <origin xyz="0 0 0" rpy="0 0 0"/>
        <geometry>
          <mesh filename="package://sandia_hand_description/meshes/palm.stl"/>
        </geometry>
      </collision>
      <!-   end collision mesh of f2 -->
    <!-- begin visual mesh of f2    ->
      <visual>
        <origin xyz="0 0 0" rpy="0 0 0"/>
        <geometry>
          <mesh filename="package://sandia_hand_description/meshes/palm.stl"/>
        </geometry>
        <material name="${side}_sandia_hand_skin">
          <color rgba="0.835 0.655 0.345 1.0"/>
        </material>
      </visual>
      <!-   end visual mesh of f2 -->
  </link>
  <joint name="right_sandia_hand_joint" type="fixed">
    <parent link="r_hand"/>
    <child link="right_palm"/>
    <origin rpy="0 0 -1.57079" xyz="-0.00179 -0.13516 0.01176"/>
  </joint>
  <link name="right_f0_base">
    <origin rpy="0 0 0" xyz="0 0 0"/>
    <inertial>
      <!-- total mass is 2.303 kg, palm is about 1.303 kg, distribute the rest into _base -->
      <mass value="0.250"/>
      <!-- (2.303 - 1.303) / 4 -->
      <origin xyz="0 0 0"/>
      <!-- model as sphere with radius of 1cm -->
      <inertia ixx="0.00001" ixy="0" ixz="0" iyy="0.00001" iyz="0" izz="0.00001"/>
    </inertial>
  </link>
  <link name="right_f0_fixed_accel">
    <origin rpy="0 0 0" xyz="0 0 0"/>
    <inertial>
      <mass value="0.01"/>
      <origin xyz="0 0 0"/>
      <inertia ixx="0.000001" ixy="0" ixz="0" iyy="0.000001" iyz="0" izz="0.000001"/>
    </inertial>
  </link>
  <link name="right_f0_0">
    <origin rpy="0 0 0" xyz="0 0 0"/>
    <inertial>
      <mass value="0.106"/>
      <!-- F1 -->
      <origin xyz="0 0 0"/>
      <!-- solid cylinder -->
      <inertia ixx="0.000011925" ixy="0" ixz="0" iyy="0.00011505" iyz="0" izz="0.00011505"/>
    </inertial>
    <!-- begin simple shape approximation of f0 -->
    <collision >
      <origin rpy="0 0 0" xyz="0 0 0.003"/>
      <geometry>
        <cylinder length="0.023" radius="0.015"/>
      </geometry>
    </collision>
    <collision >
      <origin rpy="1.57079632679 0 0" xyz="0.011 0 0.003"/>
      <geometry>
        <cylinder length="0.023" radius="0.01"/>
      </geometry>
    </collision>
    <!--   end simple shape approximation of f0 -->
    <!-- begin visual shape approximation of f0 -->
    <visual>
      <origin rpy="0 0 0" xyz="0 0 0.003"/>
      <geometry>
        <cylinder length="0.023" radius="0.015"/>
      </geometry>
      <material name="right_sandia_hand_skin_suntan">
        <color rgba="0.7 0.4 0.2 1.0"/>
      </material>
    </visual>
    <visual>
      <origin rpy="1.57079632679 0 0" xyz="0.011 0 0.003"/>
      <geometry>
        <cylinder length="0.023" radius="0.01"/>
      </geometry>
      <material name="right_sandia_hand_skin_suntan">
        <color rgba="0.7 0.4 0.2 1.0"/>
      </material>
    </visual>
    <!--   end visual shape approximation of f0 -->
    <!-- begin collision mesh of f0 ->
      <collision >
        <origin xyz="0 0 0" rpy="0 0 0"/>
        <geometry>
          <mesh filename="package://sandia_hand_description/meshes/f0.stl"/>
        </geometry>
      </collision>
      <!-   end collision mesh of f0 -->
    <!-- begin visual mesh of f0 ->
      <visual>
        <origin xyz="0 0 0" rpy="0 0 0"/>
        <geometry>
          <mesh filename="package://sandia_hand_description/meshes/f0.stl"/>
        </geometry>
        <material name="${side}_sandia_hand_skin_suntan">
          <color rgba="0.7 0.4 0.2 1.0"/>
        </material>
      </visual>
      <!-   end visual mesh of f0 -->
  </link>
  <link name="right_f0_1">
    <origin rpy="0 0 0" xyz="0 0 0"/>
    <inertial>
      <mass value="0.033"/>
      <!-- F2 -->
      <origin xyz="0 0 0"/>
      <!-- solid cylinder -->
      <inertia ixx="0.00000165" ixy="0" ixz="0" iyy="0.00001316975" iyz="0" izz="0.00001316975"/>
    </inertial>
    <!-- begin simple shape approximation of f1 -->
    <collision >
      <origin rpy="0 1.57079632679 0" xyz="0.024 0 0"/>
      <geometry>
        <cylinder length="0.067" radius="0.01"/>
      </geometry>
    </collision>
    <!--   end simple shape approximation of f1 -->
    <!-- begin visual shape approximation of f1 -->
    <visual>
      <origin rpy="0 1.57079632679 0" xyz="0.024 0 0"/>
      <geometry>
        <cylinder length="0.067" radius="0.01"/>
      </geometry>
      <material name="right_sandia_hand_skin">
        <color rgba="0.835 0.655 0.345 1.0"/>
      </material>
    </visual>
    <!--   end visual shape approximation of f1 -->
    <!-- begin collision mesh of f1 ->
      <collision >
        <origin xyz="0 0 0" rpy="0 0 0"/>
        <geometry>
          <mesh filename="package://sandia_hand_description/meshes/f1.stl"/>
        </geometry>
      </collision>
      <!-   end collision mesh of f1 -->
    <!-- begin visual mesh of f1 ->
      <visual>
        <origin xyz="0 0 0" rpy="0 0 0"/>
        <geometry>
          <mesh filename="package://sandia_hand_description/meshes/f1.stl"/>
        </geometry>
        <material name="${side}_sandia_hand_skin">
          <color rgba="0.835 0.655 0.345 1.0"/>
        </material>
      </visual>
      <!-   end visual mesh of f1 -->
  </link>
  <link name="right_f0_1_accel">
    <origin rpy="0 0 0" xyz="0 0 0"/>
    <inertial>
      <mass value="0.01"/>
      <origin xyz="0 0 0"/>
      <inertia ixx="0.000001" ixy="0" ixz="0" iyy="0.000001" iyz="0" izz="0.000001"/>
    </inertial>
  </link>
  <link name="right_f0_2">
    <origin rpy="0 0 0" xyz="0 0 0"/>
    <inertial>
      <mass value="0.033"/>
      <!-- F3 -->
      <origin xyz="0 0 0"/>
      <!-- solid cylinder -->
      <inertia ixx="0.0000013365" ixy="0" ixz="0" iyy="0.000009603" iyz="0" izz="0.000009603"/>
    </inertial>
    <!-- begin simple shape approximation of f2 -->
    <collision >
      <origin rpy="0 1.57079632679 0" xyz="0.024 0 0"/>
      <geometry>
        <cylinder length="0.057" radius="0.009"/>
      </geometry>
    </collision>
    <collision >
      <origin rpy="0 0 0" xyz="0.052 0 0"/>
      <geometry>
        <sphere radius="0.009"/>
      </geometry>
    </collision>
    <!--   end simple shape approximation of f2 -->
    <!-- begin visual shape approximation of f2 -->
    <visual>
      <origin rpy="0 1.57079632679 0" xyz="0.024 0 0"/>
      <geometry>
        <cylinder length="0.057" radius="0.009"/>
      </geometry>
      <material name="right_sandia_hand_skin_suntan">
        <color rgba="0.8 0.6 0.3 1.0"/>
      </material>
    </visual>
    <visual>
      <origin rpy="0 0 0" xyz="0.052 0 0"/>
      <geometry>
        <sphere radius="0.009"/>
      </geometry>
      <material name="right_sandia_hand_skin_suntan">
        <color rgba="0.8 0.6 0.3 1.0"/>
      </material>
    </visual>
    <!-- begin collision mesh of f2    ->
      <collision >
        <origin xyz="0 0 0" rpy="0 0 0"/>
        <geometry>
          <mesh filename="package://sandia_hand_description/meshes/f2.stl"/>
        </geometry>
      </collision>
      <!-   end collision mesh of f2 -->
    <!-- begin visual mesh of f2    ->
      <visual>
        <origin xyz="0 0 0" rpy="0 0 0"/>
        <geometry>
          <mesh filename="package://sandia_hand_description/meshes/f2.stl"/>
        </geometry>
        <material name="${side}_sandia_hand_skin_suntan">
          <color rgba="0.8 0.6 0.3 1.0"/>
        </material>
      </visual>
      <!-   end visual mesh of f2 -->
  </link>
  <link name="right_f0_2_accel">
    <origin rpy="0 0 0" xyz="0 0 0"/>
    <inertial>
      <mass value="0.01"/>
      <origin xyz="0 0 0"/>
      <inertia ixx="0.000001" ixy="0" ixz="0" iyy="0.000001" iyz="0" izz="0.000001"/>
    </inertial>
  </link>
  <joint name="right_f0_base" type="fixed">
    <parent link="right_palm"/>
    <child link="right_f0_base"/>
    <origin rpy="0 0 0.3" xyz="0.14 0.0 0"/>
  </joint>
  <joint name="right_f0_j0" type="revolute">
    <axis xyz="0 0 1"/>
    <parent link="right_f0_base"/>
    <child link="right_f0_0"/>
    <limit effort="11" lower="-1.57079632679" upper="1.57079632679" velocity="-1"/>
    <safety_controller k_position="1000.0" k_velocity="1000.0" soft_lower_limit="-11.57079" soft_upper_limit="11.57079"/>
    <dynamics damping="1.0"/>
    <origin rpy="0 0 0" xyz="0 0 0"/>
  </joint>
  <joint name="right_f0_j1" type="revolute">
    <axis xyz="0 0 1"/>
    <parent link="right_f0_0"/>
    <child link="right_f0_1"/>
    <limit effort="28" lower="-1.57079632679" upper="1.57079632679" velocity="-1"/>
    <safety_controller k_position="1000.0" k_velocity="1000.0" soft_lower_limit="-11.57079" soft_upper_limit="11.57079"/>
    <dynamics damping="1.0"/>
    <origin rpy="1.57079632679 0 0" xyz="0.028 0 0"/>
  </joint>
  <joint name="right_f0_j2" type="revolute">
    <axis xyz="0 0 1"/>
    <parent link="right_f0_1"/>
    <child link="right_f0_2"/>
    <origin rpy="0 0 0" xyz="0.05 0 0"/>
    <safety_controller k_position="1000.0" k_velocity="1000.0" soft_lower_limit="-11.57079" soft_upper_limit="11.57079"/>
    <dynamics damping="1.0"/>
    <limit effort="28" lower="-1.57079632679" upper="1.57079632679" velocity="-1"/>
  </joint>
  <joint name="right_f0_fixed_accel" type="fixed">
    <parent link="right_f0_base"/>
    <child link="right_f0_fixed_accel"/>
    <origin rpy="0 0 0" xyz="-0.05 0 0"/>
  </joint>
  <joint name="right_f0_1_accel" type="fixed">
    <parent link="right_f0_1"/>
    <child link="right_f0_1_accel"/>
    <origin rpy="-1.57079632679 0 0" xyz="0.03 0 0"/>
  </joint>
  <joint name="right_f0_2_accel" type="fixed">
    <parent link="right_f0_2"/>
    <child link="right_f0_2_accel"/>
    <origin rpy="-1.57079632679 0 0" xyz="0.04 0 0"/>
  </joint>
  <transmission name="right_f0_j0" type="pr2_mechanism_model/SimpleTransmission">
    <joint name="right_f0_j0"/>
    <actuator name="right_f0_j0_motor"/>
    <mechanicalReduction>1</mechanicalReduction>
  </transmission>
  <transmission name="right_f0_j1" type="pr2_mechanism_model/SimpleTransmission">
    <joint name="right_f0_j1"/>
    <actuator name="right_f0_j1_motor"/>
    <mechanicalReduction>1</mechanicalReduction>
  </transmission>
  <transmission name="right_f0_j2" type="pr2_mechanism_model/SimpleTransmission">
    <joint name="right_f0_j2"/>
    <actuator name="right_f0_j2_motor"/>
    <mechanicalReduction>1</mechanicalReduction>
  </transmission>
  <gazebo reference="right_f0_base">
    <mu1>1.1</mu1>
    <mu2>1.1</mu2>
    <kp>1000000.0</kp>
    <kd>10.0</kd>
    <maxVel>0.1</maxVel>
    <minDepth>0.00</minDepth>
    <maxContacts>1</maxContacts>
    <material>Gazebo/FlatBlack</material>
  </gazebo>
  <gazebo reference="right_f0_0">
    <mu1>1.1</mu1>
    <mu2>1.1</mu2>
    <kp>1000000.0</kp>
    <kd>10.0</kd>
    <maxVel>0.1</maxVel>
    <minDepth>0.00</minDepth>
    <maxContacts>1</maxContacts>
    <material>Gazebo/FlatBlack</material>
  </gazebo>
  <gazebo reference="right_f0_1">
    <mu1>1.1</mu1>
    <mu2>1.1</mu2>
    <kp>1000000.0</kp>
    <kd>10.0</kd>
    <maxVel>0.1</maxVel>
    <minDepth>0.00</minDepth>
    <maxContacts>1</maxContacts>
    <material>Gazebo/FlatBlack</material>
  </gazebo>
  <gazebo reference="right_f0_2">
    <mu1>1.1</mu1>
    <mu2>1.1</mu2>
    <kp>1000000.0</kp>
    <kd>10.0</kd>
    <maxVel>0.1</maxVel>
    <minDepth>0.00</minDepth>
    <maxContacts>1</maxContacts>
    <material>Gazebo/FlatBlack</material>
  </gazebo>
  <gazebo reference="right_f0_j0">
    <cfmDamping>1</cfmDamping>
  </gazebo>
  <gazebo reference="right_f0_j1">
    <cfmDamping>1</cfmDamping>
  </gazebo>
  <gazebo reference="right_f0_j2">
    <cfmDamping>1</cfmDamping>
  </gazebo>
  <link name="right_f1_base">
    <origin rpy="0 0 0" xyz="0 0 0"/>
    <inertial>
      <!-- total mass is 2.303 kg, palm is about 1.303 kg, distribute the rest into _base -->
      <mass value="0.250"/>
      <!-- (2.303 - 1.303) / 4 -->
      <origin xyz="0 0 0"/>
      <!-- model as sphere with radius of 1cm -->
      <inertia ixx="0.00001" ixy="0" ixz="0" iyy="0.00001" iyz="0" izz="0.00001"/>
    </inertial>
  </link>
  <link name="right_f1_fixed_accel">
    <origin rpy="0 0 0" xyz="0 0 0"/>
    <inertial>
      <mass value="0.01"/>
      <origin xyz="0 0 0"/>
      <inertia ixx="0.000001" ixy="0" ixz="0" iyy="0.000001" iyz="0" izz="0.000001"/>
    </inertial>
  </link>
  <link name="right_f1_0">
    <origin rpy="0 0 0" xyz="0 0 0"/>
    <inertial>
      <mass value="0.106"/>
      <!-- F1 -->
      <origin xyz="0 0 0"/>
      <!-- solid cylinder -->
      <inertia ixx="0.000011925" ixy="0" ixz="0" iyy="0.00011505" iyz="0" izz="0.00011505"/>
    </inertial>
    <!-- begin simple shape approximation of f0 -->
    <collision >
      <origin rpy="0 0 0" xyz="0 0 0.003"/>
      <geometry>
        <cylinder length="0.023" radius="0.015"/>
      </geometry>
    </collision>
    <collision >
      <origin rpy="1.57079632679 0 0" xyz="0.011 0 0.003"/>
      <geometry>
        <cylinder length="0.023" radius="0.01"/>
      </geometry>
    </collision>
    <!--   end simple shape approximation of f0 -->
    <!-- begin visual shape approximation of f0 -->
    <visual>
      <origin rpy="0 0 0" xyz="0 0 0.003"/>
      <geometry>
        <cylinder length="0.023" radius="0.015"/>
      </geometry>
      <material name="right_sandia_hand_skin_suntan">
        <color rgba="0.7 0.4 0.2 1.0"/>
      </material>
    </visual>
    <visual>
      <origin rpy="1.57079632679 0 0" xyz="0.011 0 0.003"/>
      <geometry>
        <cylinder length="0.023" radius="0.01"/>
      </geometry>
      <material name="right_sandia_hand_skin_suntan">
        <color rgba="0.7 0.4 0.2 1.0"/>
      </material>
    </visual>
    <!--   end visual shape approximation of f0 -->
    <!-- begin collision mesh of f0 ->
      <collision >
        <origin xyz="0 0 0" rpy="0 0 0"/>
        <geometry>
          <mesh filename="package://sandia_hand_description/meshes/f0.stl"/>
        </geometry>
      </collision>
      <!-   end collision mesh of f0 -->
    <!-- begin visual mesh of f0 ->
      <visual>
        <origin xyz="0 0 0" rpy="0 0 0"/>
        <geometry>
          <mesh filename="package://sandia_hand_description/meshes/f0.stl"/>
        </geometry>
        <material name="${side}_sandia_hand_skin_suntan">
          <color rgba="0.7 0.4 0.2 1.0"/>
        </material>
      </visual>
      <!-   end visual mesh of f0 -->
  </link>
  <link name="right_f1_1">
    <origin rpy="0 0 0" xyz="0 0 0"/>
    <inertial>
      <mass value="0.033"/>
      <!-- F2 -->
      <origin xyz="0 0 0"/>
      <!-- solid cylinder -->
      <inertia ixx="0.00000165" ixy="0" ixz="0" iyy="0.00001316975" iyz="0" izz="0.00001316975"/>
    </inertial>
    <!-- begin simple shape approximation of f1 -->
    <collision >
      <origin rpy="0 1.57079632679 0" xyz="0.024 0 0"/>
      <geometry>
        <cylinder length="0.067" radius="0.01"/>
      </geometry>
    </collision>
    <!--   end simple shape approximation of f1 -->
    <!-- begin visual shape approximation of f1 -->
    <visual>
      <origin rpy="0 1.57079632679 0" xyz="0.024 0 0"/>
      <geometry>
        <cylinder length="0.067" radius="0.01"/>
      </geometry>
      <material name="right_sandia_hand_skin">
        <color rgba="0.835 0.655 0.345 1.0"/>
      </material>
    </visual>
    <!--   end visual shape approximation of f1 -->
    <!-- begin collision mesh of f1 ->
      <collision >
        <origin xyz="0 0 0" rpy="0 0 0"/>
        <geometry>
          <mesh filename="package://sandia_hand_description/meshes/f1.stl"/>
        </geometry>
      </collision>
      <!-   end collision mesh of f1 -->
    <!-- begin visual mesh of f1 ->
      <visual>
        <origin xyz="0 0 0" rpy="0 0 0"/>
        <geometry>
          <mesh filename="package://sandia_hand_description/meshes/f1.stl"/>
        </geometry>
        <material name="${side}_sandia_hand_skin">
          <color rgba="0.835 0.655 0.345 1.0"/>
        </material>
      </visual>
      <!-   end visual mesh of f1 -->
  </link>
  <link name="right_f1_1_accel">
    <origin rpy="0 0 0" xyz="0 0 0"/>
    <inertial>
      <mass value="0.01"/>
      <origin xyz="0 0 0"/>
      <inertia ixx="0.000001" ixy="0" ixz="0" iyy="0.000001" iyz="0" izz="0.000001"/>
    </inertial>
  </link>
  <link name="right_f1_2">
    <origin rpy="0 0 0" xyz="0 0 0"/>
    <inertial>
      <mass value="0.033"/>
      <!-- F3 -->
      <origin xyz="0 0 0"/>
      <!-- solid cylinder -->
      <inertia ixx="0.0000013365" ixy="0" ixz="0" iyy="0.000009603" iyz="0" izz="0.000009603"/>
    </inertial>
    <!-- begin simple shape approximation of f2 -->
    <collision >
      <origin rpy="0 1.57079632679 0" xyz="0.024 0 0"/>
      <geometry>
        <cylinder length="0.057" radius="0.009"/>
      </geometry>
    </collision>
    <collision >
      <origin rpy="0 0 0" xyz="0.052 0 0"/>
      <geometry>
        <sphere radius="0.009"/>
      </geometry>
    </collision>
    <!--   end simple shape approximation of f2 -->
    <!-- begin visual shape approximation of f2 -->
    <visual>
      <origin rpy="0 1.57079632679 0" xyz="0.024 0 0"/>
      <geometry>
        <cylinder length="0.057" radius="0.009"/>
      </geometry>
      <material name="right_sandia_hand_skin_suntan">
        <color rgba="0.8 0.6 0.3 1.0"/>
      </material>
    </visual>
    <visual>
      <origin rpy="0 0 0" xyz="0.052 0 0"/>
      <geometry>
        <sphere radius="0.009"/>
      </geometry>
      <material name="right_sandia_hand_skin_suntan">
        <color rgba="0.8 0.6 0.3 1.0"/>
      </material>
    </visual>
    <!-- begin collision mesh of f2    ->
      <collision >
        <origin xyz="0 0 0" rpy="0 0 0"/>
        <geometry>
          <mesh filename="package://sandia_hand_description/meshes/f2.stl"/>
        </geometry>
      </collision>
      <!-   end collision mesh of f2 -->
    <!-- begin visual mesh of f2    ->
      <visual>
        <origin xyz="0 0 0" rpy="0 0 0"/>
        <geometry>
          <mesh filename="package://sandia_hand_description/meshes/f2.stl"/>
        </geometry>
        <material name="${side}_sandia_hand_skin_suntan">
          <color rgba="0.8 0.6 0.3 1.0"/>
        </material>
      </visual>
      <!-   end visual mesh of f2 -->
  </link>
  <link name="right_f1_2_accel">
    <origin rpy="0 0 0" xyz="0 0 0"/>
    <inertial>
      <mass value="0.01"/>
      <origin xyz="0 0 0"/>
      <inertia ixx="0.000001" ixy="0" ixz="0" iyy="0.000001" iyz="0" izz="0.000001"/>
    </inertial>
  </link>
  <joint name="right_f1_base" type="fixed">
    <parent link="right_palm"/>
    <child link="right_f1_base"/>
    <origin rpy="0 0 0.3" xyz="0.115 0.03122 0"/>
  </joint>
  <joint name="right_f1_j0" type="revolute">
    <axis xyz="0 0 1"/>
    <parent link="right_f1_base"/>
    <child link="right_f1_0"/>
    <limit effort="11" lower="-1.57079632679" upper="1.57079632679" velocity="-1"/>
    <safety_controller k_position="1000.0" k_velocity="1000.0" soft_lower_limit="-11.57079" soft_upper_limit="11.57079"/>
    <dynamics damping="1.0"/>
    <origin rpy="0 0 0" xyz="0 0 0"/>
  </joint>
  <joint name="right_f1_j1" type="revolute">
    <axis xyz="0 0 1"/>
    <parent link="right_f1_0"/>
    <child link="right_f1_1"/>
    <limit effort="28" lower="-1.57079632679" upper="1.57079632679" velocity="-1"/>
    <safety_controller k_position="1000.0" k_velocity="1000.0" soft_lower_limit="-11.57079" soft_upper_limit="11.57079"/>
    <dynamics damping="1.0"/>
    <origin rpy="1.57079632679 0 0" xyz="0.028 0 0"/>
  </joint>
  <joint name="right_f1_j2" type="revolute">
    <axis xyz="0 0 1"/>
    <parent link="right_f1_1"/>
    <child link="right_f1_2"/>
    <origin rpy="0 0 0" xyz="0.05 0 0"/>
    <safety_controller k_position="1000.0" k_velocity="1000.0" soft_lower_limit="-11.57079" soft_upper_limit="11.57079"/>
    <dynamics damping="1.0"/>
    <limit effort="28" lower="-1.57079632679" upper="1.57079632679" velocity="-1"/>
  </joint>
  <joint name="right_f1_fixed_accel" type="fixed">
    <parent link="right_f1_base"/>
    <child link="right_f1_fixed_accel"/>
    <origin rpy="0 0 0" xyz="-0.05 0 0"/>
  </joint>
  <joint name="right_f1_1_accel" type="fixed">
    <parent link="right_f1_1"/>
    <child link="right_f1_1_accel"/>
    <origin rpy="-1.57079632679 0 0" xyz="0.03 0 0"/>
  </joint>
  <joint name="right_f1_2_accel" type="fixed">
    <parent link="right_f1_2"/>
    <child link="right_f1_2_accel"/>
    <origin rpy="-1.57079632679 0 0" xyz="0.04 0 0"/>
  </joint>
  <transmission name="right_f1_j0" type="pr2_mechanism_model/SimpleTransmission">
    <joint name="right_f1_j0"/>
    <actuator name="right_f1_j0_motor"/>
    <mechanicalReduction>1</mechanicalReduction>
  </transmission>
  <transmission name="right_f1_j1" type="pr2_mechanism_model/SimpleTransmission">
    <joint name="right_f1_j1"/>
    <actuator name="right_f1_j1_motor"/>
    <mechanicalReduction>1</mechanicalReduction>
  </transmission>
  <transmission name="right_f1_j2" type="pr2_mechanism_model/SimpleTransmission">
    <joint name="right_f1_j2"/>
    <actuator name="right_f1_j2_motor"/>
    <mechanicalReduction>1</mechanicalReduction>
  </transmission>
  <gazebo reference="right_f1_base">
    <mu1>1.1</mu1>
    <mu2>1.1</mu2>
    <kp>1000000.0</kp>
    <kd>10.0</kd>
    <maxVel>0.1</maxVel>
    <minDepth>0.00</minDepth>
    <maxContacts>1</maxContacts>
    <material>Gazebo/FlatBlack</material>
  </gazebo>
  <gazebo reference="right_f1_0">
    <mu1>1.1</mu1>
    <mu2>1.1</mu2>
    <kp>1000000.0</kp>
    <kd>10.0</kd>
    <maxVel>0.1</maxVel>
    <minDepth>0.00</minDepth>
    <maxContacts>1</maxContacts>
    <material>Gazebo/FlatBlack</material>
  </gazebo>
  <gazebo reference="right_f1_1">
    <mu1>1.1</mu1>
    <mu2>1.1</mu2>
    <kp>1000000.0</kp>
    <kd>10.0</kd>
    <maxVel>0.1</maxVel>
    <minDepth>0.00</minDepth>
    <maxContacts>1</maxContacts>
    <material>Gazebo/FlatBlack</material>
  </gazebo>
  <gazebo reference="right_f1_2">
    <mu1>1.1</mu1>
    <mu2>1.1</mu2>
    <kp>1000000.0</kp>
    <kd>10.0</kd>
    <maxVel>0.1</maxVel>
    <minDepth>0.00</minDepth>
    <maxContacts>1</maxContacts>
    <material>Gazebo/FlatBlack</material>
  </gazebo>
  <gazebo reference="right_f1_j0">
    <cfmDamping>1</cfmDamping>
  </gazebo>
  <gazebo reference="right_f1_j1">
    <cfmDamping>1</cfmDamping>
  </gazebo>
  <gazebo reference="right_f1_j2">
    <cfmDamping>1</cfmDamping>
  </gazebo>
  <link name="right_f2_base">
    <origin rpy="0 0 0" xyz="0 0 0"/>
    <inertial>
      <!-- total mass is 2.303 kg, palm is about 1.303 kg, distribute the rest into _base -->
      <mass value="0.250"/>
      <!-- (2.303 - 1.303) / 4 -->
      <origin xyz="0 0 0"/>
      <!-- model as sphere with radius of 1cm -->
      <inertia ixx="0.00001" ixy="0" ixz="0" iyy="0.00001" iyz="0" izz="0.00001"/>
    </inertial>
  </link>
  <link name="right_f2_fixed_accel">
    <origin rpy="0 0 0" xyz="0 0 0"/>
    <inertial>
      <mass value="0.01"/>
      <origin xyz="0 0 0"/>
      <inertia ixx="0.000001" ixy="0" ixz="0" iyy="0.000001" iyz="0" izz="0.000001"/>
    </inertial>
  </link>
  <link name="right_f2_0">
    <origin rpy="0 0 0" xyz="0 0 0"/>
    <inertial>
      <mass value="0.106"/>
      <!-- F1 -->
      <origin xyz="0 0 0"/>
      <!-- solid cylinder -->
      <inertia ixx="0.000011925" ixy="0" ixz="0" iyy="0.00011505" iyz="0" izz="0.00011505"/>
    </inertial>
    <!-- begin simple shape approximation of f0 -->
    <collision >
      <origin rpy="0 0 0" xyz="0 0 0.003"/>
      <geometry>
        <cylinder length="0.023" radius="0.015"/>
      </geometry>
    </collision>
    <collision >
      <origin rpy="1.57079632679 0 0" xyz="0.011 0 0.003"/>
      <geometry>
        <cylinder length="0.023" radius="0.01"/>
      </geometry>
    </collision>
    <!--   end simple shape approximation of f0 -->
    <!-- begin visual shape approximation of f0 -->
    <visual>
      <origin rpy="0 0 0" xyz="0 0 0.003"/>
      <geometry>
        <cylinder length="0.023" radius="0.015"/>
      </geometry>
      <material name="right_sandia_hand_skin_suntan">
        <color rgba="0.7 0.4 0.2 1.0"/>
      </material>
    </visual>
    <visual>
      <origin rpy="1.57079632679 0 0" xyz="0.011 0 0.003"/>
      <geometry>
        <cylinder length="0.023" radius="0.01"/>
      </geometry>
      <material name="right_sandia_hand_skin_suntan">
        <color rgba="0.7 0.4 0.2 1.0"/>
      </material>
    </visual>
    <!--   end visual shape approximation of f0 -->
    <!-- begin collision mesh of f0 ->
      <collision >
        <origin xyz="0 0 0" rpy="0 0 0"/>
        <geometry>
          <mesh filename="package://sandia_hand_description/meshes/f0.stl"/>
        </geometry>
      </collision>
      <!-   end collision mesh of f0 -->
    <!-- begin visual mesh of f0 ->
      <visual>
        <origin xyz="0 0 0" rpy="0 0 0"/>
        <geometry>
          <mesh filename="package://sandia_hand_description/meshes/f0.stl"/>
        </geometry>
        <material name="${side}_sandia_hand_skin_suntan">
          <color rgba="0.7 0.4 0.2 1.0"/>
        </material>
      </visual>
      <!-   end visual mesh of f0 -->
  </link>
  <link name="right_f2_1">
    <origin rpy="0 0 0" xyz="0 0 0"/>
    <inertial>
      <mass value="0.033"/>
      <!-- F2 -->
      <origin xyz="0 0 0"/>
      <!-- solid cylinder -->
      <inertia ixx="0.00000165" ixy="0" ixz="0" iyy="0.00001316975" iyz="0" izz="0.00001316975"/>
    </inertial>
    <!-- begin simple shape approximation of f1 -->
    <collision >
      <origin rpy="0 1.57079632679 0" xyz="0.024 0 0"/>
      <geometry>
        <cylinder length="0.067" radius="0.01"/>
      </geometry>
    </collision>
    <!--   end simple shape approximation of f1 -->
    <!-- begin visual shape approximation of f1 -->
    <visual>
      <origin rpy="0 1.57079632679 0" xyz="0.024 0 0"/>
      <geometry>
        <cylinder length="0.067" radius="0.01"/>
      </geometry>
      <material name="right_sandia_hand_skin">
        <color rgba="0.835 0.655 0.345 1.0"/>
      </material>
    </visual>
    <!--   end visual shape approximation of f1 -->
    <!-- begin collision mesh of f1 ->
      <collision >
        <origin xyz="0 0 0" rpy="0 0 0"/>
        <geometry>
          <mesh filename="package://sandia_hand_description/meshes/f1.stl"/>
        </geometry>
      </collision>
      <!-   end collision mesh of f1 -->
    <!-- begin visual mesh of f1 ->
      <visual>
        <origin xyz="0 0 0" rpy="0 0 0"/>
        <geometry>
          <mesh filename="package://sandia_hand_description/meshes/f1.stl"/>
        </geometry>
        <material name="${side}_sandia_hand_skin">
          <color rgba="0.835 0.655 0.345 1.0"/>
        </material>
      </visual>
      <!-   end visual mesh of f1 -->
  </link>
  <link name="right_f2_1_accel">
    <origin rpy="0 0 0" xyz="0 0 0"/>
    <inertial>
      <mass value="0.01"/>
      <origin xyz="0 0 0"/>
      <inertia ixx="0.000001" ixy="0" ixz="0" iyy="0.000001" iyz="0" izz="0.000001"/>
    </inertial>
  </link>
  <link name="right_f2_2">
    <origin rpy="0 0 0" xyz="0 0 0"/>
    <inertial>
      <mass value="0.033"/>
      <!-- F3 -->
      <origin xyz="0 0 0"/>
      <!-- solid cylinder -->
      <inertia ixx="0.0000013365" ixy="0" ixz="0" iyy="0.000009603" iyz="0" izz="0.000009603"/>
    </inertial>
    <!-- begin simple shape approximation of f2 -->
    <collision >
      <origin rpy="0 1.57079632679 0" xyz="0.024 0 0"/>
      <geometry>
        <cylinder length="0.057" radius="0.009"/>
      </geometry>
    </collision>
    <collision >
      <origin rpy="0 0 0" xyz="0.052 0 0"/>
      <geometry>
        <sphere radius="0.009"/>
      </geometry>
    </collision>
    <!--   end simple shape approximation of f2 -->
    <!-- begin visual shape approximation of f2 -->
    <visual>
      <origin rpy="0 1.57079632679 0" xyz="0.024 0 0"/>
      <geometry>
        <cylinder length="0.057" radius="0.009"/>
      </geometry>
      <material name="right_sandia_hand_skin_suntan">
        <color rgba="0.8 0.6 0.3 1.0"/>
      </material>
    </visual>
    <visual>
      <origin rpy="0 0 0" xyz="0.052 0 0"/>
      <geometry>
        <sphere radius="0.009"/>
      </geometry>
      <material name="right_sandia_hand_skin_suntan">
        <color rgba="0.8 0.6 0.3 1.0"/>
      </material>
    </visual>
    <!-- begin collision mesh of f2    ->
      <collision >
        <origin xyz="0 0 0" rpy="0 0 0"/>
        <geometry>
          <mesh filename="package://sandia_hand_description/meshes/f2.stl"/>
        </geometry>
      </collision>
      <!-   end collision mesh of f2 -->
    <!-- begin visual mesh of f2    ->
      <visual>
        <origin xyz="0 0 0" rpy="0 0 0"/>
        <geometry>
          <mesh filename="package://sandia_hand_description/meshes/f2.stl"/>
        </geometry>
        <material name="${side}_sandia_hand_skin_suntan">
          <color rgba="0.8 0.6 0.3 1.0"/>
        </material>
      </visual>
      <!-   end visual mesh of f2 -->
  </link>
  <link name="right_f2_2_accel">
    <origin rpy="0 0 0" xyz="0 0 0"/>
    <inertial>
      <mass value="0.01"/>
      <origin xyz="0 0 0"/>
      <inertia ixx="0.000001" ixy="0" ixz="0" iyy="0.000001" iyz="0" izz="0.000001"/>
    </inertial>
  </link>
  <joint name="right_f2_base" type="fixed">
    <parent link="right_palm"/>
    <child link="right_f2_base"/>
    <origin rpy="0 0 0.3" xyz="0.09 0.06245 0"/>
  </joint>
  <joint name="right_f2_j0" type="revolute">
    <axis xyz="0 0 1"/>
    <parent link="right_f2_base"/>
    <child link="right_f2_0"/>
    <limit effort="11" lower="-1.57079632679" upper="1.57079632679" velocity="-1"/>
    <safety_controller k_position="1000.0" k_velocity="1000.0" soft_lower_limit="-11.57079" soft_upper_limit="11.57079"/>
    <dynamics damping="1.0"/>
    <origin rpy="0 0 0" xyz="0 0 0"/>
  </joint>
  <joint name="right_f2_j1" type="revolute">
    <axis xyz="0 0 1"/>
    <parent link="right_f2_0"/>
    <child link="right_f2_1"/>
    <limit effort="28" lower="-1.57079632679" upper="1.57079632679" velocity="-1"/>
    <safety_controller k_position="1000.0" k_velocity="1000.0" soft_lower_limit="-11.57079" soft_upper_limit="11.57079"/>
    <dynamics damping="1.0"/>
    <origin rpy="1.57079632679 0 0" xyz="0.028 0 0"/>
  </joint>
  <joint name="right_f2_j2" type="revolute">
    <axis xyz="0 0 1"/>
    <parent link="right_f2_1"/>
    <child link="right_f2_2"/>
    <origin rpy="0 0 0" xyz="0.05 0 0"/>
    <safety_controller k_position="1000.0" k_velocity="1000.0" soft_lower_limit="-11.57079" soft_upper_limit="11.57079"/>
    <dynamics damping="1.0"/>
    <limit effort="28" lower="-1.57079632679" upper="1.57079632679" velocity="-1"/>
  </joint>
  <joint name="right_f2_fixed_accel" type="fixed">
    <parent link="right_f2_base"/>
    <child link="right_f2_fixed_accel"/>
    <origin rpy="0 0 0" xyz="-0.05 0 0"/>
  </joint>
  <joint name="right_f2_1_accel" type="fixed">
    <parent link="right_f2_1"/>
    <child link="right_f2_1_accel"/>
    <origin rpy="-1.57079632679 0 0" xyz="0.03 0 0"/>
  </joint>
  <joint name="right_f2_2_accel" type="fixed">
    <parent link="right_f2_2"/>
    <child link="right_f2_2_accel"/>
    <origin rpy="-1.57079632679 0 0" xyz="0.04 0 0"/>
  </joint>
  <transmission name="right_f2_j0" type="pr2_mechanism_model/SimpleTransmission">
    <joint name="right_f2_j0"/>
    <actuator name="right_f2_j0_motor"/>
    <mechanicalReduction>1</mechanicalReduction>
  </transmission>
  <transmission name="right_f2_j1" type="pr2_mechanism_model/SimpleTransmission">
    <joint name="right_f2_j1"/>
    <actuator name="right_f2_j1_motor"/>
    <mechanicalReduction>1</mechanicalReduction>
  </transmission>
  <transmission name="right_f2_j2" type="pr2_mechanism_model/SimpleTransmission">
    <joint name="right_f2_j2"/>
    <actuator name="right_f2_j2_motor"/>
    <mechanicalReduction>1</mechanicalReduction>
  </transmission>
  <gazebo reference="right_f2_base">
    <mu1>1.1</mu1>
    <mu2>1.1</mu2>
    <kp>1000000.0</kp>
    <kd>10.0</kd>
    <maxVel>0.1</maxVel>
    <minDepth>0.00</minDepth>
    <maxContacts>1</maxContacts>
    <material>Gazebo/FlatBlack</material>
  </gazebo>
  <gazebo reference="right_f2_0">
    <mu1>1.1</mu1>
    <mu2>1.1</mu2>
    <kp>1000000.0</kp>
    <kd>10.0</kd>
    <maxVel>0.1</maxVel>
    <minDepth>0.00</minDepth>
    <maxContacts>1</maxContacts>
    <material>Gazebo/FlatBlack</material>
  </gazebo>
  <gazebo reference="right_f2_1">
    <mu1>1.1</mu1>
    <mu2>1.1</mu2>
    <kp>1000000.0</kp>
    <kd>10.0</kd>
    <maxVel>0.1</maxVel>
    <minDepth>0.00</minDepth>
    <maxContacts>1</maxContacts>
    <material>Gazebo/FlatBlack</material>
  </gazebo>
  <gazebo reference="right_f2_2">
    <mu1>1.1</mu1>
    <mu2>1.1</mu2>
    <kp>1000000.0</kp>
    <kd>10.0</kd>
    <maxVel>0.1</maxVel>
    <minDepth>0.00</minDepth>
    <maxContacts>1</maxContacts>
    <material>Gazebo/FlatBlack</material>
  </gazebo>
  <gazebo reference="right_f2_j0">
    <cfmDamping>1</cfmDamping>
  </gazebo>
  <gazebo reference="right_f2_j1">
    <cfmDamping>1</cfmDamping>
  </gazebo>
  <gazebo reference="right_f2_j2">
    <cfmDamping>1</cfmDamping>
  </gazebo>
  <link name="right_f3_base">
    <origin rpy="0 0 0" xyz="0 0 0"/>
    <inertial>
      <!-- total mass is 2.303 kg, palm is about 1.303 kg, distribute the rest into _base -->
      <mass value="0.250"/>
      <!-- (2.303 - 1.303) / 4 -->
      <origin xyz="0 0 0"/>
      <!-- model as sphere with radius of 1cm -->
      <inertia ixx="0.00001" ixy="0" ixz="0" iyy="0.00001" iyz="0" izz="0.00001"/>
    </inertial>
  </link>
  <link name="right_f3_fixed_accel">
    <origin rpy="0 0 0" xyz="0 0 0"/>
    <inertial>
      <mass value="0.01"/>
      <origin xyz="0 0 0"/>
      <inertia ixx="0.000001" ixy="0" ixz="0" iyy="0.000001" iyz="0" izz="0.000001"/>
    </inertial>
  </link>
  <link name="right_f3_0">
    <origin rpy="0 0 0" xyz="0 0 0"/>
    <inertial>
      <mass value="0.106"/>
      <!-- F1 -->
      <origin xyz="0 0 0"/>
      <!-- solid cylinder -->
      <inertia ixx="0.000011925" ixy="0" ixz="0" iyy="0.00011505" iyz="0" izz="0.00011505"/>
    </inertial>
    <!-- begin simple shape approximation of f0 -->
    <collision >
      <origin rpy="0 0 0" xyz="0 0 0.003"/>
      <geometry>
        <cylinder length="0.023" radius="0.015"/>
      </geometry>
    </collision>
    <collision >
      <origin rpy="1.57079632679 0 0" xyz="0.011 0 0.003"/>
      <geometry>
        <cylinder length="0.023" radius="0.01"/>
      </geometry>
    </collision>
    <!--   end simple shape approximation of f0 -->
    <!-- begin visual shape approximation of f0 -->
    <visual>
      <origin rpy="0 0 0" xyz="0 0 0.003"/>
      <geometry>
        <cylinder length="0.023" radius="0.015"/>
      </geometry>
      <material name="right_sandia_hand_skin_suntan">
        <color rgba="0.7 0.4 0.2 1.0"/>
      </material>
    </visual>
    <visual>
      <origin rpy="1.57079632679 0 0" xyz="0.011 0 0.003"/>
      <geometry>
        <cylinder length="0.023" radius="0.01"/>
      </geometry>
      <material name="right_sandia_hand_skin_suntan">
        <color rgba="0.7 0.4 0.2 1.0"/>
      </material>
    </visual>
    <!--   end visual shape approximation of f0 -->
    <!-- begin collision mesh of f0 ->
      <collision >
        <origin xyz="0 0 0" rpy="0 0 0"/>
        <geometry>
          <mesh filename="package://sandia_hand_description/meshes/f0.stl"/>
        </geometry>
      </collision>
      <!-   end collision mesh of f0 -->
    <!-- begin visual mesh of f0 ->
      <visual>
        <origin xyz="0 0 0" rpy="0 0 0"/>
        <geometry>
          <mesh filename="package://sandia_hand_description/meshes/f0.stl"/>
        </geometry>
        <material name="${side}_sandia_hand_skin_suntan">
          <color rgba="0.7 0.4 0.2 1.0"/>
        </material>
      </visual>
      <!-   end visual mesh of f0 -->
  </link>
  <link name="right_f3_1">
    <origin rpy="0 0 0" xyz="0 0 0"/>
    <inertial>
      <mass value="0.033"/>
      <!-- F2 -->
      <origin xyz="0 0 0"/>
      <!-- solid cylinder -->
      <inertia ixx="0.00000165" ixy="0" ixz="0" iyy="0.00001316975" iyz="0" izz="0.00001316975"/>
    </inertial>
    <!-- begin simple shape approximation of f1 -->
    <collision >
      <origin rpy="0 1.57079632679 0" xyz="0.024 0 0"/>
      <geometry>
        <cylinder length="0.067" radius="0.01"/>
      </geometry>
    </collision>
    <!--   end simple shape approximation of f1 -->
    <!-- begin visual shape approximation of f1 -->
    <visual>
      <origin rpy="0 1.57079632679 0" xyz="0.024 0 0"/>
      <geometry>
        <cylinder length="0.067" radius="0.01"/>
      </geometry>
      <material name="right_sandia_hand_skin">
        <color rgba="0.835 0.655 0.345 1.0"/>
      </material>
    </visual>
    <!--   end visual shape approximation of f1 -->
    <!-- begin collision mesh of f1 ->
      <collision >
        <origin xyz="0 0 0" rpy="0 0 0"/>
        <geometry>
          <mesh filename="package://sandia_hand_description/meshes/f1.stl"/>
        </geometry>
      </collision>
      <!-   end collision mesh of f1 -->
    <!-- begin visual mesh of f1 ->
      <visual>
        <origin xyz="0 0 0" rpy="0 0 0"/>
        <geometry>
          <mesh filename="package://sandia_hand_description/meshes/f1.stl"/>
        </geometry>
        <material name="${side}_sandia_hand_skin">
          <color rgba="0.835 0.655 0.345 1.0"/>
        </material>
      </visual>
      <!-   end visual mesh of f1 -->
  </link>
  <link name="right_f3_1_accel">
    <origin rpy="0 0 0" xyz="0 0 0"/>
    <inertial>
      <mass value="0.01"/>
      <origin xyz="0 0 0"/>
      <inertia ixx="0.000001" ixy="0" ixz="0" iyy="0.000001" iyz="0" izz="0.000001"/>
    </inertial>
  </link>
  <link name="right_f3_2">
    <origin rpy="0 0 0" xyz="0 0 0"/>
    <inertial>
      <mass value="0.033"/>
      <!-- F3 -->
      <origin xyz="0 0 0"/>
      <!-- solid cylinder -->
      <inertia ixx="0.0000013365" ixy="0" ixz="0" iyy="0.000009603" iyz="0" izz="0.000009603"/>
    </inertial>
    <!-- begin simple shape approximation of f2 -->
    <collision >
      <origin rpy="0 1.57079632679 0" xyz="0.024 0 0"/>
      <geometry>
        <cylinder length="0.057" radius="0.009"/>
      </geometry>
    </collision>
    <collision >
      <origin rpy="0 0 0" xyz="0.052 0 0"/>
      <geometry>
        <sphere radius="0.009"/>
      </geometry>
    </collision>
    <!--   end simple shape approximation of f2 -->
    <!-- begin visual shape approximation of f2 -->
    <visual>
      <origin rpy="0 1.57079632679 0" xyz="0.024 0 0"/>
      <geometry>
        <cylinder length="0.057" radius="0.009"/>
      </geometry>
      <material name="right_sandia_hand_skin_suntan">
        <color rgba="0.8 0.6 0.3 1.0"/>
      </material>
    </visual>
    <visual>
      <origin rpy="0 0 0" xyz="0.052 0 0"/>
      <geometry>
        <sphere radius="0.009"/>
      </geometry>
      <material name="right_sandia_hand_skin_suntan">
        <color rgba="0.8 0.6 0.3 1.0"/>
      </material>
    </visual>
    <!-- begin collision mesh of f2    ->
      <collision >
        <origin xyz="0 0 0" rpy="0 0 0"/>
        <geometry>
          <mesh filename="package://sandia_hand_description/meshes/f2.stl"/>
        </geometry>
      </collision>
      <!-   end collision mesh of f2 -->
    <!-- begin visual mesh of f2    ->
      <visual>
        <origin xyz="0 0 0" rpy="0 0 0"/>
        <geometry>
          <mesh filename="package://sandia_hand_description/meshes/f2.stl"/>
        </geometry>
        <material name="${side}_sandia_hand_skin_suntan">
          <color rgba="0.8 0.6 0.3 1.0"/>
        </material>
      </visual>
      <!-   end visual mesh of f2 -->
  </link>
  <link name="right_f3_2_accel">
    <origin rpy="0 0 0" xyz="0 0 0"/>
    <inertial>
      <mass value="0.01"/>
      <origin xyz="0 0 0"/>
      <inertia ixx="0.000001" ixy="0" ixz="0" iyy="0.000001" iyz="0" izz="0.000001"/>
    </inertial>
  </link>
  <joint name="right_f3_base" type="fixed">
    <parent link="right_palm"/>
    <child link="right_f3_base"/>
    <origin rpy="0 -1.57079632679 -2.3562" xyz="0.03995 -0.04383 0.014"/>
  </joint>
  <joint name="right_f3_j0" type="revolute">
    <axis xyz="0 0 1"/>
    <parent link="right_f3_base"/>
    <child link="right_f3_0"/>
    <limit effort="11" lower="-1.57079632679" upper="1.57079632679" velocity="-1"/>
    <safety_controller k_position="1000.0" k_velocity="1000.0" soft_lower_limit="-11.57079" soft_upper_limit="11.57079"/>
    <dynamics damping="1.0"/>
    <origin rpy="0 0 0" xyz="0 0 0"/>
  </joint>
  <joint name="right_f3_j1" type="revolute">
    <axis xyz="0 0 1"/>
    <parent link="right_f3_0"/>
    <child link="right_f3_1"/>
    <limit effort="28" lower="-1.57079632679" upper="1.57079632679" velocity="-1"/>
    <safety_controller k_position="1000.0" k_velocity="1000.0" soft_lower_limit="-11.57079" soft_upper_limit="11.57079"/>
    <dynamics damping="1.0"/>
    <origin rpy="1.57079632679 0 0" xyz="0.028 0 0"/>
  </joint>
  <joint name="right_f3_j2" type="revolute">
    <axis xyz="0 0 1"/>
    <parent link="right_f3_1"/>
    <child link="right_f3_2"/>
    <origin rpy="0 0 0" xyz="0.05 0 0"/>
    <safety_controller k_position="1000.0" k_velocity="1000.0" soft_lower_limit="-11.57079" soft_upper_limit="11.57079"/>
    <dynamics damping="1.0"/>
    <limit effort="28" lower="-1.57079632679" upper="1.57079632679" velocity="-1"/>
  </joint>
  <joint name="right_f3_fixed_accel" type="fixed">
    <parent link="right_f3_base"/>
    <child link="right_f3_fixed_accel"/>
    <origin rpy="0 0 0" xyz="-0.05 0 0"/>
  </joint>
  <joint name="right_f3_1_accel" type="fixed">
    <parent link="right_f3_1"/>
    <child link="right_f3_1_accel"/>
    <origin rpy="-1.57079632679 0 0" xyz="0.03 0 0"/>
  </joint>
  <joint name="right_f3_2_accel" type="fixed">
    <parent link="right_f3_2"/>
    <child link="right_f3_2_accel"/>
    <origin rpy="-1.57079632679 0 0" xyz="0.04 0 0"/>
  </joint>
  <transmission name="right_f3_j0" type="pr2_mechanism_model/SimpleTransmission">
    <joint name="right_f3_j0"/>
    <actuator name="right_f3_j0_motor"/>
    <mechanicalReduction>1</mechanicalReduction>
  </transmission>
  <transmission name="right_f3_j1" type="pr2_mechanism_model/SimpleTransmission">
    <joint name="right_f3_j1"/>
    <actuator name="right_f3_j1_motor"/>
    <mechanicalReduction>1</mechanicalReduction>
  </transmission>
  <transmission name="right_f3_j2" type="pr2_mechanism_model/SimpleTransmission">
    <joint name="right_f3_j2"/>
    <actuator name="right_f3_j2_motor"/>
    <mechanicalReduction>1</mechanicalReduction>
  </transmission>
  <gazebo reference="right_f3_base">
    <mu1>1.1</mu1>
    <mu2>1.1</mu2>
    <kp>1000000.0</kp>
    <kd>10.0</kd>
    <maxVel>0.1</maxVel>
    <minDepth>0.00</minDepth>
    <maxContacts>1</maxContacts>
    <material>Gazebo/FlatBlack</material>
  </gazebo>
  <gazebo reference="right_f3_0">
    <mu1>1.1</mu1>
    <mu2>1.1</mu2>
    <kp>1000000.0</kp>
    <kd>10.0</kd>
    <maxVel>0.1</maxVel>
    <minDepth>0.00</minDepth>
    <maxContacts>1</maxContacts>
    <material>Gazebo/FlatBlack</material>
  </gazebo>
  <gazebo reference="right_f3_1">
    <mu1>1.1</mu1>
    <mu2>1.1</mu2>
    <kp>1000000.0</kp>
    <kd>10.0</kd>
    <maxVel>0.1</maxVel>
    <minDepth>0.00</minDepth>
    <maxContacts>1</maxContacts>
    <material>Gazebo/FlatBlack</material>
  </gazebo>
  <gazebo reference="right_f3_2">
    <mu1>1.1</mu1>
    <mu2>1.1</mu2>
    <kp>1000000.0</kp>
    <kd>10.0</kd>
    <maxVel>0.1</maxVel>
    <minDepth>0.00</minDepth>
    <maxContacts>1</maxContacts>
    <material>Gazebo/FlatBlack</material>
  </gazebo>
  <gazebo reference="right_f3_j0">
    <cfmDamping>1</cfmDamping>
  </gazebo>
  <gazebo reference="right_f3_j1">
    <cfmDamping>1</cfmDamping>
  </gazebo>
  <gazebo reference="right_f3_j2">
    <cfmDamping>1</cfmDamping>
  </gazebo>
  <gazebo reference="right_palm">
    <mu1>1.1</mu1>
    <mu2>1.1</mu2>
    <kp>1000000.0</kp>
    <kd>1.0</kd>
    <maxVel>0.1</maxVel>
    <minDepth>0.00</minDepth>
    <maxContacts>6</maxContacts>
    <material>Gazebo/FlatBlack</material>
  </gazebo>
  <joint name="right_palm_left_camera_frame_joint" type="fixed">
    <origin rpy="0.6708 -1.57079632679 3.14159265359" xyz="0.0683774130138 0.0138342911048 0.025"/>
    <parent link="right_palm"/>
    <child link="right_palm_left_camera_frame"/>
  </joint>
  <link name="right_palm_left_camera_frame">
    <inertial>
      <mass value="0.01"/>
      <origin xyz="0 0 0"/>
      <inertia ixx="0.0001" ixy="0.0" ixz="0.0" iyy="0.0001" iyz="0.0" izz="0.0001"/>
    </inertial>
    <visual >
      <origin rpy="0 0 0" xyz="0 0 0"/>
      <geometry>
        <box size="0.003 0.010 0.007"/>
      </geometry>
    </visual>
  </link>
  <joint name="right_palm_left_camera_optical_frame_joint" type="fixed">
    <origin rpy="-1.57079632679 0.0 -1.57079632679" xyz="0 0 0"/>
    <parent link="right_palm_left_camera_frame"/>
    <child link="right_palm_left_camera_optical_frame"/>
  </joint>
  <link name="right_palm_left_camera_optical_frame"/>
  <gazebo reference="right_palm_left_camera_frame">
    <sensor name="right_palm_stereo_camera" type="multicamera">
      <update_rate>30.0</update_rate>
      <camera name="left">
        <horizontal_fov>1.25663706144</horizontal_fov>
        <image>
          <width>752</width>
          <height>480</height>
          <format>L8</format>
        </image>
        <clip>
          <near>0.02</near>
          <far>100</far>
        </clip>
        <noise>
          <type>gaussian</type>
          <mean>0.0</mean>
          <stddev>0.007</stddev>
        </noise>
      </camera>
      <camera name="right">
        <pose>0 -0.04 0  0 0 0</pose>
        <horizontal_fov>1.25663706144</horizontal_fov>
        <image>
          <width>752</width>
          <height>480</height>
          <format>L8</format>
        </image>
        <clip>
          <near>0.02</near>
          <far>100</far>
        </clip>
        <noise>
          <type>gaussian</type>
          <mean>0.0</mean>
          <stddev>0.007</stddev>
        </noise>
      </camera>
      <plugin filename="libgazebo_ros_multicamera.so" name="stereo_camera_controller">
        <alwaysOn>true</alwaysOn>
        <updateRate>0.0</updateRate>
        <cameraName>sandia_hands/r_hand/camera</cameraName>
        <imageTopicName>image_raw</imageTopicName>
        <cameraInfoTopicName>camera_info</cameraInfoTopicName>
        <frameName>right_palm_left_camera_optical_frame</frameName>
        <hackBaseline>0.04</hackBaseline>
        <distortionK1>0.0</distortionK1>
        <distortionK2>0.0</distortionK2>
        <distortionK3>0.0</distortionK3>
        <distortionT1>0.0</distortionT1>
        <distortionT2>0.0</distortionT2>
      </plugin>
    </sensor>
  </gazebo>
  <joint name="right_palm_right_camera_frame_joint" type="fixed">
    <origin rpy="0.6708 -1.57079632679 3.14159265359" xyz="0.0435128991906 0.0451672761576 0.025"/>
    <parent link="right_palm"/>
    <child link="right_palm_right_camera_frame"/>
  </joint>
  <link name="right_palm_right_camera_frame">
    <inertial>
      <mass value="0.01"/>
      <origin xyz="0 0 0"/>
      <inertia ixx="0.0001" ixy="0.0" ixz="0.0" iyy="0.0001" iyz="0.0" izz="0.0001"/>
    </inertial>
    <visual >
      <origin rpy="0 0 0" xyz="0 0 0"/>
      <geometry>
        <box size="0.003 0.010 0.007"/>
      </geometry>
    </visual>
  </link>
  <joint name="right_palm_right_camera_optical_frame_joint" type="fixed">
    <origin rpy="-1.57079632679 0.0 -1.57079632679" xyz="0 0 0"/>
    <parent link="right_palm_right_camera_frame"/>
    <child link="right_palm_right_camera_optical_frame"/>
  </joint>
  <link name="right_palm_right_camera_optical_frame"/>
  <gazebo>
    <plugin filename="libContactModelPlugin.so" name="sandia_contact_plugin">
      <contact>
        <collision>r_hand::r_hand_collision_right_palm</collision>
        <collision>r_hand::r_hand_collision_right_palm_1</collision>
        <collision>r_hand::r_hand_collision_right_palm_3</collision>
        <collision>r_hand::r_hand_collision_right_palm_4</collision>
        <collision>r_hand::r_hand_collision_right_palm_5</collision>
        <collision>right_f0_1::right_f0_1_collision</collision>
        <collision>right_f0_2::right_f0_2_collision</collision>
        <collision>right_f1_1::right_f1_1_collision</collision>
        <collision>right_f1_2::right_f1_2_collision</collision>
        <collision>right_f2_1::right_f2_1_collision</collision>
        <collision>right_f2_2::right_f2_2_collision</collision>
        <collision>right_f3_1::right_f3_1_collision</collision>
        <collision>right_f3_2::right_f3_2_collision</collision>
      </contact>
    </plugin>
  </gazebo>
  <gazebo reference="r_hand">
    <sensor name="imu_sensor" type="imu">
      <always_on>1</always_on>
      <update_rate>1000.0</update_rate>
      <imu>
        <noise>
          <type>gaussian</type>
          <rate>
            <mean>0.0</mean>
            <stddev>2e-4</stddev>
            <bias_mean>0.0000075</bias_mean>
            <bias_stddev>0.0000008</bias_stddev>
          </rate>
          <accel>
            <mean>0.0</mean>
            <stddev>1.7e-2</stddev>
            <bias_mean>0.1</bias_mean>
            <bias_stddev>0.001</bias_stddev>
          </accel>
        </noise>
      </imu>
    </sensor>
  </gazebo>
  <link name="left_palm">
    <origin rpy="0 0 0" xyz="0 0 0"/>
    <inertial>
      <mass value="1.303"/>
      <origin xyz="0 0 0"/>
      <!-- solid sphere with 5cm radius -->
      <inertia ixx="0.001303" ixy="0" ixz="0" iyy="0.001303" iyz="0" izz="0.001303"/>
    </inertial>
    <!-- begin simple shape approximation of palm -->
    <collision >
      <origin rpy="0 1.57079632679 0.9" xyz="0.069 -0.016 0.038"/>
      <geometry>
        <cylinder length="0.100" radius="0.013"/>
      </geometry>
    </collision>
    <collision >
      <origin rpy="-0.41 0 0.9" xyz="0.064 -0.008 0.021"/>
      <geometry>
        <box size="0.09 .035 .05"/>
      </geometry>
    </collision>
    <collision >
      <origin rpy="0 1.57079632679 0" xyz="0.02 0 -0.005"/>
      <geometry>
        <cylinder length="0.05" radius="0.038"/>
      </geometry>
    </collision>
    <collision >
      <origin rpy="0 0 -0.37" xyz="0.11 0.01 -0.005"/>
      <geometry>
        <box size="0.09 .03 .06"/>
      </geometry>
    </collision>
    <collision >
      <origin rpy="0 0 -0.37" xyz="0.09 -0.02 -0.005"/>
      <geometry>
        <box size="0.09 .03 .06"/>
      </geometry>
    </collision>
    <collision >
      <origin rpy="0 0 -0.37" xyz="0.060 -0.05 -0.005"/>
      <geometry>
        <box size="0.09 .03 .06"/>
      </geometry>
    </collision>
    <collision >
      <origin rpy="0 0 -0.79" xyz="0.044 0.04 -0.005"/>
      <geometry>
        <box size="0.09 .03 .06"/>
      </geometry>
    </collision>
    <!--   end simple shape approximation of palm -->
    <!-- begin visual shape approximation of palm -->
    <visual>
      <origin rpy="0 1.57079632679 0.9" xyz="0.069 -0.016 0.038"/>
      <geometry>
        <cylinder length="0.100" radius="0.013"/>
      </geometry>
      <material name="left_sandia_hand_skin">
        <color rgba="0.835 0.655 0.345 1.0"/>
      </material>
    </visual>
    <visual>
      <origin rpy="-0.41 0 0.9" xyz="0.064 -0.008 0.021"/>
      <geometry>
        <box size="0.09 .035 .05"/>
      </geometry>
      <material name="left_sandia_hand_skin">
        <color rgba="0.835 0.655 0.345 1.0"/>
      </material>
    </visual>
    <visual>
      <origin rpy="0 1.57079632679 0" xyz="0.02 0 -0.005"/>
      <geometry>
        <cylinder length="0.05" radius="0.038"/>
      </geometry>
      <material name="left_sandia_hand_skin">
        <color rgba="0.835 0.655 0.345 1.0"/>
      </material>
    </visual>
    <visual>
      <origin rpy="0 0 -0.37" xyz="0.11 0.01 -0.005"/>
      <geometry>
        <box size="0.09 .03 .06"/>
      </geometry>
      <material name="left_sandia_hand_skin">
        <color rgba="0.835 0.655 0.345 1.0"/>
      </material>
    </visual>
    <visual>
      <origin rpy="0 0 -0.37" xyz="0.09 -0.02 -0.005"/>
      <geometry>
        <box size="0.09 .03 .06"/>
      </geometry>
      <material name="left_sandia_hand_skin">
        <color rgba="0.835 0.655 0.345 1.0"/>
      </material>
    </visual>
    <visual>
      <origin rpy="0 0 -0.37" xyz="0.060 -0.05 -0.005"/>
      <geometry>
        <box size="0.09 .03 .06"/>
      </geometry>
      <material name="left_sandia_hand_skin">
        <color rgba="0.835 0.655 0.345 1.0"/>
      </material>
    </visual>
    <visual>
      <origin rpy="0 0 -0.79" xyz="0.044 0.04 -0.005"/>
      <geometry>
        <box size="0.09 .03 .06"/>
      </geometry>
      <material name="left_sandia_hand_skin">
        <color rgba="0.835 0.655 0.345 1.0"/>
      </material>
    </visual>
    <!--   end visual shape approximation of palm -->
    <!-- begin collision mesh of f2 ->
      <collision >
        <origin xyz="0 0 0" rpy="0 0 0"/>
        <geometry>
          <mesh filename="package://sandia_hand_description/meshes/palm.stl"/>
        </geometry>
      </collision>
      <!-   end collision mesh of f2 -->
    <!-- begin visual mesh of f2    ->
      <visual>
        <origin xyz="0 0 0" rpy="0 0 0"/>
        <geometry>
          <mesh filename="package://sandia_hand_description/meshes/palm.stl"/>
        </geometry>
        <material name="${side}_sandia_hand_skin">
          <color rgba="0.835 0.655 0.345 1.0"/>
        </material>
      </visual>
      <!-   end visual mesh of f2 -->
  </link>
  <joint name="left_sandia_hand_joint" type="fixed">
    <parent link="l_hand"/>
    <child link="left_palm"/>
    <origin rpy="0 0  1.57079" xyz="0.00179  0.13516 0.01176"/>
  </joint>
  <link name="left_f0_base">
    <origin rpy="0 0 0" xyz="0 0 0"/>
    <inertial>
      <!-- total mass is 2.303 kg, palm is about 1.303 kg, distribute the rest into _base -->
      <mass value="0.250"/>
      <!-- (2.303 - 1.303) / 4 -->
      <origin xyz="0 0 0"/>
      <!-- model as sphere with radius of 1cm -->
      <inertia ixx="0.00001" ixy="0" ixz="0" iyy="0.00001" iyz="0" izz="0.00001"/>
    </inertial>
  </link>
  <link name="left_f0_fixed_accel">
    <origin rpy="0 0 0" xyz="0 0 0"/>
    <inertial>
      <mass value="0.01"/>
      <origin xyz="0 0 0"/>
      <inertia ixx="0.000001" ixy="0" ixz="0" iyy="0.000001" iyz="0" izz="0.000001"/>
    </inertial>
  </link>
  <link name="left_f0_0">
    <origin rpy="0 0 0" xyz="0 0 0"/>
    <inertial>
      <mass value="0.106"/>
      <!-- F1 -->
      <origin xyz="0 0 0"/>
      <!-- solid cylinder -->
      <inertia ixx="0.000011925" ixy="0" ixz="0" iyy="0.00011505" iyz="0" izz="0.00011505"/>
    </inertial>
    <!-- begin simple shape approximation of f0 -->
    <collision >
      <origin rpy="0 0 0" xyz="0 0 0.003"/>
      <geometry>
        <cylinder length="0.023" radius="0.015"/>
      </geometry>
    </collision>
    <collision >
      <origin rpy="1.57079632679 0 0" xyz="0.011 0 0.003"/>
      <geometry>
        <cylinder length="0.023" radius="0.01"/>
      </geometry>
    </collision>
    <!--   end simple shape approximation of f0 -->
    <!-- begin visual shape approximation of f0 -->
    <visual>
      <origin rpy="0 0 0" xyz="0 0 0.003"/>
      <geometry>
        <cylinder length="0.023" radius="0.015"/>
      </geometry>
      <material name="left_sandia_hand_skin_suntan">
        <color rgba="0.7 0.4 0.2 1.0"/>
      </material>
    </visual>
    <visual>
      <origin rpy="1.57079632679 0 0" xyz="0.011 0 0.003"/>
      <geometry>
        <cylinder length="0.023" radius="0.01"/>
      </geometry>
      <material name="left_sandia_hand_skin_suntan">
        <color rgba="0.7 0.4 0.2 1.0"/>
      </material>
    </visual>
    <!--   end visual shape approximation of f0 -->
    <!-- begin collision mesh of f0 ->
      <collision >
        <origin xyz="0 0 0" rpy="0 0 0"/>
        <geometry>
          <mesh filename="package://sandia_hand_description/meshes/f0.stl"/>
        </geometry>
      </collision>
      <!-   end collision mesh of f0 -->
    <!-- begin visual mesh of f0 ->
      <visual>
        <origin xyz="0 0 0" rpy="0 0 0"/>
        <geometry>
          <mesh filename="package://sandia_hand_description/meshes/f0.stl"/>
        </geometry>
        <material name="${side}_sandia_hand_skin_suntan">
          <color rgba="0.7 0.4 0.2 1.0"/>
        </material>
      </visual>
      <!-   end visual mesh of f0 -->
  </link>
  <link name="left_f0_1">
    <origin rpy="0 0 0" xyz="0 0 0"/>
    <inertial>
      <mass value="0.033"/>
      <!-- F2 -->
      <origin xyz="0 0 0"/>
      <!-- solid cylinder -->
      <inertia ixx="0.00000165" ixy="0" ixz="0" iyy="0.00001316975" iyz="0" izz="0.00001316975"/>
    </inertial>
    <!-- begin simple shape approximation of f1 -->
    <collision >
      <origin rpy="0 1.57079632679 0" xyz="0.024 0 0"/>
      <geometry>
        <cylinder length="0.067" radius="0.01"/>
      </geometry>
    </collision>
    <!--   end simple shape approximation of f1 -->
    <!-- begin visual shape approximation of f1 -->
    <visual>
      <origin rpy="0 1.57079632679 0" xyz="0.024 0 0"/>
      <geometry>
        <cylinder length="0.067" radius="0.01"/>
      </geometry>
      <material name="left_sandia_hand_skin">
        <color rgba="0.835 0.655 0.345 1.0"/>
      </material>
    </visual>
    <!--   end visual shape approximation of f1 -->
    <!-- begin collision mesh of f1 ->
      <collision >
        <origin xyz="0 0 0" rpy="0 0 0"/>
        <geometry>
          <mesh filename="package://sandia_hand_description/meshes/f1.stl"/>
        </geometry>
      </collision>
      <!-   end collision mesh of f1 -->
    <!-- begin visual mesh of f1 ->
      <visual>
        <origin xyz="0 0 0" rpy="0 0 0"/>
        <geometry>
          <mesh filename="package://sandia_hand_description/meshes/f1.stl"/>
        </geometry>
        <material name="${side}_sandia_hand_skin">
          <color rgba="0.835 0.655 0.345 1.0"/>
        </material>
      </visual>
      <!-   end visual mesh of f1 -->
  </link>
  <link name="left_f0_1_accel">
    <origin rpy="0 0 0" xyz="0 0 0"/>
    <inertial>
      <mass value="0.01"/>
      <origin xyz="0 0 0"/>
      <inertia ixx="0.000001" ixy="0" ixz="0" iyy="0.000001" iyz="0" izz="0.000001"/>
    </inertial>
  </link>
  <link name="left_f0_2">
    <origin rpy="0 0 0" xyz="0 0 0"/>
    <inertial>
      <mass value="0.033"/>
      <!-- F3 -->
      <origin xyz="0 0 0"/>
      <!-- solid cylinder -->
      <inertia ixx="0.0000013365" ixy="0" ixz="0" iyy="0.000009603" iyz="0" izz="0.000009603"/>
    </inertial>
    <!-- begin simple shape approximation of f2 -->
    <collision >
      <origin rpy="0 1.57079632679 0" xyz="0.024 0 0"/>
      <geometry>
        <cylinder length="0.057" radius="0.009"/>
      </geometry>
    </collision>
    <collision >
      <origin rpy="0 0 0" xyz="0.052 0 0"/>
      <geometry>
        <sphere radius="0.009"/>
      </geometry>
    </collision>
    <!--   end simple shape approximation of f2 -->
    <!-- begin visual shape approximation of f2 -->
    <visual>
      <origin rpy="0 1.57079632679 0" xyz="0.024 0 0"/>
      <geometry>
        <cylinder length="0.057" radius="0.009"/>
      </geometry>
      <material name="left_sandia_hand_skin_suntan">
        <color rgba="0.8 0.6 0.3 1.0"/>
      </material>
    </visual>
    <visual>
      <origin rpy="0 0 0" xyz="0.052 0 0"/>
      <geometry>
        <sphere radius="0.009"/>
      </geometry>
      <material name="left_sandia_hand_skin_suntan">
        <color rgba="0.8 0.6 0.3 1.0"/>
      </material>
    </visual>
    <!-- begin collision mesh of f2    ->
      <collision >
        <origin xyz="0 0 0" rpy="0 0 0"/>
        <geometry>
          <mesh filename="package://sandia_hand_description/meshes/f2.stl"/>
        </geometry>
      </collision>
      <!-   end collision mesh of f2 -->
    <!-- begin visual mesh of f2    ->
      <visual>
        <origin xyz="0 0 0" rpy="0 0 0"/>
        <geometry>
          <mesh filename="package://sandia_hand_description/meshes/f2.stl"/>
        </geometry>
        <material name="${side}_sandia_hand_skin_suntan">
          <color rgba="0.8 0.6 0.3 1.0"/>
        </material>
      </visual>
      <!-   end visual mesh of f2 -->
  </link>
  <link name="left_f0_2_accel">
    <origin rpy="0 0 0" xyz="0 0 0"/>
    <inertial>
      <mass value="0.01"/>
      <origin xyz="0 0 0"/>
      <inertia ixx="0.000001" ixy="0" ixz="0" iyy="0.000001" iyz="0" izz="0.000001"/>
    </inertial>
  </link>
  <joint name="left_f0_base" type="fixed">
    <parent link="left_palm"/>
    <child link="left_f0_base"/>
    <origin rpy="0 0 -0.3" xyz="0.14 0.0 0"/>
  </joint>
  <joint name="left_f0_j0" type="revolute">
    <axis xyz="0 0 -1"/>
    <parent link="left_f0_base"/>
    <child link="left_f0_0"/>
    <limit effort="11" lower="-1.57079632679" upper="1.57079632679" velocity="-1"/>
    <safety_controller k_position="1000.0" k_velocity="1000.0" soft_lower_limit="-11.57079" soft_upper_limit="11.57079"/>
    <dynamics damping="1.0"/>
    <origin rpy="0 0 0" xyz="0 0 0"/>
  </joint>
  <joint name="left_f0_j1" type="revolute">
    <axis xyz="0 0 1"/>
    <parent link="left_f0_0"/>
    <child link="left_f0_1"/>
    <limit effort="28" lower="-1.57079632679" upper="1.57079632679" velocity="-1"/>
    <safety_controller k_position="1000.0" k_velocity="1000.0" soft_lower_limit="-11.57079" soft_upper_limit="11.57079"/>
    <dynamics damping="1.0"/>
    <origin rpy="1.57079632679 0 0" xyz="0.028 0 0"/>
  </joint>
  <joint name="left_f0_j2" type="revolute">
    <axis xyz="0 0 1"/>
    <parent link="left_f0_1"/>
    <child link="left_f0_2"/>
    <origin rpy="0 0 0" xyz="0.05 0 0"/>
    <safety_controller k_position="1000.0" k_velocity="1000.0" soft_lower_limit="-11.57079" soft_upper_limit="11.57079"/>
    <dynamics damping="1.0"/>
    <limit effort="28" lower="-1.57079632679" upper="1.57079632679" velocity="-1"/>
  </joint>
  <joint name="left_f0_fixed_accel" type="fixed">
    <parent link="left_f0_base"/>
    <child link="left_f0_fixed_accel"/>
    <origin rpy="0 0 0" xyz="-0.05 0 0"/>
  </joint>
  <joint name="left_f0_1_accel" type="fixed">
    <parent link="left_f0_1"/>
    <child link="left_f0_1_accel"/>
    <origin rpy="-1.57079632679 0 0" xyz="0.03 0 0"/>
  </joint>
  <joint name="left_f0_2_accel" type="fixed">
    <parent link="left_f0_2"/>
    <child link="left_f0_2_accel"/>
    <origin rpy="-1.57079632679 0 0" xyz="0.04 0 0"/>
  </joint>
  <transmission name="left_f0_j0" type="pr2_mechanism_model/SimpleTransmission">
    <joint name="left_f0_j0"/>
    <actuator name="left_f0_j0_motor"/>
    <mechanicalReduction>1</mechanicalReduction>
  </transmission>
  <transmission name="left_f0_j1" type="pr2_mechanism_model/SimpleTransmission">
    <joint name="left_f0_j1"/>
    <actuator name="left_f0_j1_motor"/>
    <mechanicalReduction>1</mechanicalReduction>
  </transmission>
  <transmission name="left_f0_j2" type="pr2_mechanism_model/SimpleTransmission">
    <joint name="left_f0_j2"/>
    <actuator name="left_f0_j2_motor"/>
    <mechanicalReduction>1</mechanicalReduction>
  </transmission>
  <gazebo reference="left_f0_base">
    <mu1>1.1</mu1>
    <mu2>1.1</mu2>
    <kp>1000000.0</kp>
    <kd>10.0</kd>
    <maxVel>0.1</maxVel>
    <minDepth>0.00</minDepth>
    <maxContacts>1</maxContacts>
    <material>Gazebo/FlatBlack</material>
  </gazebo>
  <gazebo reference="left_f0_0">
    <mu1>1.1</mu1>
    <mu2>1.1</mu2>
    <kp>1000000.0</kp>
    <kd>10.0</kd>
    <maxVel>0.1</maxVel>
    <minDepth>0.00</minDepth>
    <maxContacts>1</maxContacts>
    <material>Gazebo/FlatBlack</material>
  </gazebo>
  <gazebo reference="left_f0_1">
    <mu1>1.1</mu1>
    <mu2>1.1</mu2>
    <kp>1000000.0</kp>
    <kd>10.0</kd>
    <maxVel>0.1</maxVel>
    <minDepth>0.00</minDepth>
    <maxContacts>1</maxContacts>
    <material>Gazebo/FlatBlack</material>
  </gazebo>
  <gazebo reference="left_f0_2">
    <mu1>1.1</mu1>
    <mu2>1.1</mu2>
    <kp>1000000.0</kp>
    <kd>10.0</kd>
    <maxVel>0.1</maxVel>
    <minDepth>0.00</minDepth>
    <maxContacts>1</maxContacts>
    <material>Gazebo/FlatBlack</material>
  </gazebo>
  <gazebo reference="left_f0_j0">
    <cfmDamping>1</cfmDamping>
  </gazebo>
  <gazebo reference="left_f0_j1">
    <cfmDamping>1</cfmDamping>
  </gazebo>
  <gazebo reference="left_f0_j2">
    <cfmDamping>1</cfmDamping>
  </gazebo>
  <link name="left_f1_base">
    <origin rpy="0 0 0" xyz="0 0 0"/>
    <inertial>
      <!-- total mass is 2.303 kg, palm is about 1.303 kg, distribute the rest into _base -->
      <mass value="0.250"/>
      <!-- (2.303 - 1.303) / 4 -->
      <origin xyz="0 0 0"/>
      <!-- model as sphere with radius of 1cm -->
      <inertia ixx="0.00001" ixy="0" ixz="0" iyy="0.00001" iyz="0" izz="0.00001"/>
    </inertial>
  </link>
  <link name="left_f1_fixed_accel">
    <origin rpy="0 0 0" xyz="0 0 0"/>
    <inertial>
      <mass value="0.01"/>
      <origin xyz="0 0 0"/>
      <inertia ixx="0.000001" ixy="0" ixz="0" iyy="0.000001" iyz="0" izz="0.000001"/>
    </inertial>
  </link>
  <link name="left_f1_0">
    <origin rpy="0 0 0" xyz="0 0 0"/>
    <inertial>
      <mass value="0.106"/>
      <!-- F1 -->
      <origin xyz="0 0 0"/>
      <!-- solid cylinder -->
      <inertia ixx="0.000011925" ixy="0" ixz="0" iyy="0.00011505" iyz="0" izz="0.00011505"/>
    </inertial>
    <!-- begin simple shape approximation of f0 -->
    <collision >
      <origin rpy="0 0 0" xyz="0 0 0.003"/>
      <geometry>
        <cylinder length="0.023" radius="0.015"/>
      </geometry>
    </collision>
    <collision >
      <origin rpy="1.57079632679 0 0" xyz="0.011 0 0.003"/>
      <geometry>
        <cylinder length="0.023" radius="0.01"/>
      </geometry>
    </collision>
    <!--   end simple shape approximation of f0 -->
    <!-- begin visual shape approximation of f0 -->
    <visual>
      <origin rpy="0 0 0" xyz="0 0 0.003"/>
      <geometry>
        <cylinder length="0.023" radius="0.015"/>
      </geometry>
      <material name="left_sandia_hand_skin_suntan">
        <color rgba="0.7 0.4 0.2 1.0"/>
      </material>
    </visual>
    <visual>
      <origin rpy="1.57079632679 0 0" xyz="0.011 0 0.003"/>
      <geometry>
        <cylinder length="0.023" radius="0.01"/>
      </geometry>
      <material name="left_sandia_hand_skin_suntan">
        <color rgba="0.7 0.4 0.2 1.0"/>
      </material>
    </visual>
    <!--   end visual shape approximation of f0 -->
    <!-- begin collision mesh of f0 ->
      <collision >
        <origin xyz="0 0 0" rpy="0 0 0"/>
        <geometry>
          <mesh filename="package://sandia_hand_description/meshes/f0.stl"/>
        </geometry>
      </collision>
      <!-   end collision mesh of f0 -->
    <!-- begin visual mesh of f0 ->
      <visual>
        <origin xyz="0 0 0" rpy="0 0 0"/>
        <geometry>
          <mesh filename="package://sandia_hand_description/meshes/f0.stl"/>
        </geometry>
        <material name="${side}_sandia_hand_skin_suntan">
          <color rgba="0.7 0.4 0.2 1.0"/>
        </material>
      </visual>
      <!-   end visual mesh of f0 -->
  </link>
  <link name="left_f1_1">
    <origin rpy="0 0 0" xyz="0 0 0"/>
    <inertial>
      <mass value="0.033"/>
      <!-- F2 -->
      <origin xyz="0 0 0"/>
      <!-- solid cylinder -->
      <inertia ixx="0.00000165" ixy="0" ixz="0" iyy="0.00001316975" iyz="0" izz="0.00001316975"/>
    </inertial>
    <!-- begin simple shape approximation of f1 -->
    <collision >
      <origin rpy="0 1.57079632679 0" xyz="0.024 0 0"/>
      <geometry>
        <cylinder length="0.067" radius="0.01"/>
      </geometry>
    </collision>
    <!--   end simple shape approximation of f1 -->
    <!-- begin visual shape approximation of f1 -->
    <visual>
      <origin rpy="0 1.57079632679 0" xyz="0.024 0 0"/>
      <geometry>
        <cylinder length="0.067" radius="0.01"/>
      </geometry>
      <material name="left_sandia_hand_skin">
        <color rgba="0.835 0.655 0.345 1.0"/>
      </material>
    </visual>
    <!--   end visual shape approximation of f1 -->
    <!-- begin collision mesh of f1 ->
      <collision >
        <origin xyz="0 0 0" rpy="0 0 0"/>
        <geometry>
          <mesh filename="package://sandia_hand_description/meshes/f1.stl"/>
        </geometry>
      </collision>
      <!-   end collision mesh of f1 -->
    <!-- begin visual mesh of f1 ->
      <visual>
        <origin xyz="0 0 0" rpy="0 0 0"/>
        <geometry>
          <mesh filename="package://sandia_hand_description/meshes/f1.stl"/>
        </geometry>
        <material name="${side}_sandia_hand_skin">
          <color rgba="0.835 0.655 0.345 1.0"/>
        </material>
      </visual>
      <!-   end visual mesh of f1 -->
  </link>
  <link name="left_f1_1_accel">
    <origin rpy="0 0 0" xyz="0 0 0"/>
    <inertial>
      <mass value="0.01"/>
      <origin xyz="0 0 0"/>
      <inertia ixx="0.000001" ixy="0" ixz="0" iyy="0.000001" iyz="0" izz="0.000001"/>
    </inertial>
  </link>
  <link name="left_f1_2">
    <origin rpy="0 0 0" xyz="0 0 0"/>
    <inertial>
      <mass value="0.033"/>
      <!-- F3 -->
      <origin xyz="0 0 0"/>
      <!-- solid cylinder -->
      <inertia ixx="0.0000013365" ixy="0" ixz="0" iyy="0.000009603" iyz="0" izz="0.000009603"/>
    </inertial>
    <!-- begin simple shape approximation of f2 -->
    <collision >
      <origin rpy="0 1.57079632679 0" xyz="0.024 0 0"/>
      <geometry>
        <cylinder length="0.057" radius="0.009"/>
      </geometry>
    </collision>
    <collision >
      <origin rpy="0 0 0" xyz="0.052 0 0"/>
      <geometry>
        <sphere radius="0.009"/>
      </geometry>
    </collision>
    <!--   end simple shape approximation of f2 -->
    <!-- begin visual shape approximation of f2 -->
    <visual>
      <origin rpy="0 1.57079632679 0" xyz="0.024 0 0"/>
      <geometry>
        <cylinder length="0.057" radius="0.009"/>
      </geometry>
      <material name="left_sandia_hand_skin_suntan">
        <color rgba="0.8 0.6 0.3 1.0"/>
      </material>
    </visual>
    <visual>
      <origin rpy="0 0 0" xyz="0.052 0 0"/>
      <geometry>
        <sphere radius="0.009"/>
      </geometry>
      <material name="left_sandia_hand_skin_suntan">
        <color rgba="0.8 0.6 0.3 1.0"/>
      </material>
    </visual>
    <!-- begin collision mesh of f2    ->
      <collision >
        <origin xyz="0 0 0" rpy="0 0 0"/>
        <geometry>
          <mesh filename="package://sandia_hand_description/meshes/f2.stl"/>
        </geometry>
      </collision>
      <!-   end collision mesh of f2 -->
    <!-- begin visual mesh of f2    ->
      <visual>
        <origin xyz="0 0 0" rpy="0 0 0"/>
        <geometry>
          <mesh filename="package://sandia_hand_description/meshes/f2.stl"/>
        </geometry>
        <material name="${side}_sandia_hand_skin_suntan">
          <color rgba="0.8 0.6 0.3 1.0"/>
        </material>
      </visual>
      <!-   end visual mesh of f2 -->
  </link>
  <link name="left_f1_2_accel">
    <origin rpy="0 0 0" xyz="0 0 0"/>
    <inertial>
      <mass value="0.01"/>
      <origin xyz="0 0 0"/>
      <inertia ixx="0.000001" ixy="0" ixz="0" iyy="0.000001" iyz="0" izz="0.000001"/>
    </inertial>
  </link>
  <joint name="left_f1_base" type="fixed">
    <parent link="left_palm"/>
    <child link="left_f1_base"/>
    <origin rpy="0 0 -0.3" xyz="0.115 -0.03122 0"/>
  </joint>
  <joint name="left_f1_j0" type="revolute">
    <axis xyz="0 0 -1"/>
    <parent link="left_f1_base"/>
    <child link="left_f1_0"/>
    <limit effort="11" lower="-1.57079632679" upper="1.57079632679" velocity="-1"/>
    <safety_controller k_position="1000.0" k_velocity="1000.0" soft_lower_limit="-11.57079" soft_upper_limit="11.57079"/>
    <dynamics damping="1.0"/>
    <origin rpy="0 0 0" xyz="0 0 0"/>
  </joint>
  <joint name="left_f1_j1" type="revolute">
    <axis xyz="0 0 1"/>
    <parent link="left_f1_0"/>
    <child link="left_f1_1"/>
    <limit effort="28" lower="-1.57079632679" upper="1.57079632679" velocity="-1"/>
    <safety_controller k_position="1000.0" k_velocity="1000.0" soft_lower_limit="-11.57079" soft_upper_limit="11.57079"/>
    <dynamics damping="1.0"/>
    <origin rpy="1.57079632679 0 0" xyz="0.028 0 0"/>
  </joint>
  <joint name="left_f1_j2" type="revolute">
    <axis xyz="0 0 1"/>
    <parent link="left_f1_1"/>
    <child link="left_f1_2"/>
    <origin rpy="0 0 0" xyz="0.05 0 0"/>
    <safety_controller k_position="1000.0" k_velocity="1000.0" soft_lower_limit="-11.57079" soft_upper_limit="11.57079"/>
    <dynamics damping="1.0"/>
    <limit effort="28" lower="-1.57079632679" upper="1.57079632679" velocity="-1"/>
  </joint>
  <joint name="left_f1_fixed_accel" type="fixed">
    <parent link="left_f1_base"/>
    <child link="left_f1_fixed_accel"/>
    <origin rpy="0 0 0" xyz="-0.05 0 0"/>
  </joint>
  <joint name="left_f1_1_accel" type="fixed">
    <parent link="left_f1_1"/>
    <child link="left_f1_1_accel"/>
    <origin rpy="-1.57079632679 0 0" xyz="0.03 0 0"/>
  </joint>
  <joint name="left_f1_2_accel" type="fixed">
    <parent link="left_f1_2"/>
    <child link="left_f1_2_accel"/>
    <origin rpy="-1.57079632679 0 0" xyz="0.04 0 0"/>
  </joint>
  <transmission name="left_f1_j0" type="pr2_mechanism_model/SimpleTransmission">
    <joint name="left_f1_j0"/>
    <actuator name="left_f1_j0_motor"/>
    <mechanicalReduction>1</mechanicalReduction>
  </transmission>
  <transmission name="left_f1_j1" type="pr2_mechanism_model/SimpleTransmission">
    <joint name="left_f1_j1"/>
    <actuator name="left_f1_j1_motor"/>
    <mechanicalReduction>1</mechanicalReduction>
  </transmission>
  <transmission name="left_f1_j2" type="pr2_mechanism_model/SimpleTransmission">
    <joint name="left_f1_j2"/>
    <actuator name="left_f1_j2_motor"/>
    <mechanicalReduction>1</mechanicalReduction>
  </transmission>
  <gazebo reference="left_f1_base">
    <mu1>1.1</mu1>
    <mu2>1.1</mu2>
    <kp>1000000.0</kp>
    <kd>10.0</kd>
    <maxVel>0.1</maxVel>
    <minDepth>0.00</minDepth>
    <maxContacts>1</maxContacts>
    <material>Gazebo/FlatBlack</material>
  </gazebo>
  <gazebo reference="left_f1_0">
    <mu1>1.1</mu1>
    <mu2>1.1</mu2>
    <kp>1000000.0</kp>
    <kd>10.0</kd>
    <maxVel>0.1</maxVel>
    <minDepth>0.00</minDepth>
    <maxContacts>1</maxContacts>
    <material>Gazebo/FlatBlack</material>
  </gazebo>
  <gazebo reference="left_f1_1">
    <mu1>1.1</mu1>
    <mu2>1.1</mu2>
    <kp>1000000.0</kp>
    <kd>10.0</kd>
    <maxVel>0.1</maxVel>
    <minDepth>0.00</minDepth>
    <maxContacts>1</maxContacts>
    <material>Gazebo/FlatBlack</material>
  </gazebo>
  <gazebo reference="left_f1_2">
    <mu1>1.1</mu1>
    <mu2>1.1</mu2>
    <kp>1000000.0</kp>
    <kd>10.0</kd>
    <maxVel>0.1</maxVel>
    <minDepth>0.00</minDepth>
    <maxContacts>1</maxContacts>
    <material>Gazebo/FlatBlack</material>
  </gazebo>
  <gazebo reference="left_f1_j0">
    <cfmDamping>1</cfmDamping>
  </gazebo>
  <gazebo reference="left_f1_j1">
    <cfmDamping>1</cfmDamping>
  </gazebo>
  <gazebo reference="left_f1_j2">
    <cfmDamping>1</cfmDamping>
  </gazebo>
  <link name="left_f2_base">
    <origin rpy="0 0 0" xyz="0 0 0"/>
    <inertial>
      <!-- total mass is 2.303 kg, palm is about 1.303 kg, distribute the rest into _base -->
      <mass value="0.250"/>
      <!-- (2.303 - 1.303) / 4 -->
      <origin xyz="0 0 0"/>
      <!-- model as sphere with radius of 1cm -->
      <inertia ixx="0.00001" ixy="0" ixz="0" iyy="0.00001" iyz="0" izz="0.00001"/>
    </inertial>
  </link>
  <link name="left_f2_fixed_accel">
    <origin rpy="0 0 0" xyz="0 0 0"/>
    <inertial>
      <mass value="0.01"/>
      <origin xyz="0 0 0"/>
      <inertia ixx="0.000001" ixy="0" ixz="0" iyy="0.000001" iyz="0" izz="0.000001"/>
    </inertial>
  </link>
  <link name="left_f2_0">
    <origin rpy="0 0 0" xyz="0 0 0"/>
    <inertial>
      <mass value="0.106"/>
      <!-- F1 -->
      <origin xyz="0 0 0"/>
      <!-- solid cylinder -->
      <inertia ixx="0.000011925" ixy="0" ixz="0" iyy="0.00011505" iyz="0" izz="0.00011505"/>
    </inertial>
    <!-- begin simple shape approximation of f0 -->
    <collision >
      <origin rpy="0 0 0" xyz="0 0 0.003"/>
      <geometry>
        <cylinder length="0.023" radius="0.015"/>
      </geometry>
    </collision>
    <collision >
      <origin rpy="1.57079632679 0 0" xyz="0.011 0 0.003"/>
      <geometry>
        <cylinder length="0.023" radius="0.01"/>
      </geometry>
    </collision>
    <!--   end simple shape approximation of f0 -->
    <!-- begin visual shape approximation of f0 -->
    <visual>
      <origin rpy="0 0 0" xyz="0 0 0.003"/>
      <geometry>
        <cylinder length="0.023" radius="0.015"/>
      </geometry>
      <material name="left_sandia_hand_skin_suntan">
        <color rgba="0.7 0.4 0.2 1.0"/>
      </material>
    </visual>
    <visual>
      <origin rpy="1.57079632679 0 0" xyz="0.011 0 0.003"/>
      <geometry>
        <cylinder length="0.023" radius="0.01"/>
      </geometry>
      <material name="left_sandia_hand_skin_suntan">
        <color rgba="0.7 0.4 0.2 1.0"/>
      </material>
    </visual>
    <!--   end visual shape approximation of f0 -->
    <!-- begin collision mesh of f0 ->
      <collision >
        <origin xyz="0 0 0" rpy="0 0 0"/>
        <geometry>
          <mesh filename="package://sandia_hand_description/meshes/f0.stl"/>
        </geometry>
      </collision>
      <!-   end collision mesh of f0 -->
    <!-- begin visual mesh of f0 ->
      <visual>
        <origin xyz="0 0 0" rpy="0 0 0"/>
        <geometry>
          <mesh filename="package://sandia_hand_description/meshes/f0.stl"/>
        </geometry>
        <material name="${side}_sandia_hand_skin_suntan">
          <color rgba="0.7 0.4 0.2 1.0"/>
        </material>
      </visual>
      <!-   end visual mesh of f0 -->
  </link>
  <link name="left_f2_1">
    <origin rpy="0 0 0" xyz="0 0 0"/>
    <inertial>
      <mass value="0.033"/>
      <!-- F2 -->
      <origin xyz="0 0 0"/>
      <!-- solid cylinder -->
      <inertia ixx="0.00000165" ixy="0" ixz="0" iyy="0.00001316975" iyz="0" izz="0.00001316975"/>
    </inertial>
    <!-- begin simple shape approximation of f1 -->
    <collision >
      <origin rpy="0 1.57079632679 0" xyz="0.024 0 0"/>
      <geometry>
        <cylinder length="0.067" radius="0.01"/>
      </geometry>
    </collision>
    <!--   end simple shape approximation of f1 -->
    <!-- begin visual shape approximation of f1 -->
    <visual>
      <origin rpy="0 1.57079632679 0" xyz="0.024 0 0"/>
      <geometry>
        <cylinder length="0.067" radius="0.01"/>
      </geometry>
      <material name="left_sandia_hand_skin">
        <color rgba="0.835 0.655 0.345 1.0"/>
      </material>
    </visual>
    <!--   end visual shape approximation of f1 -->
    <!-- begin collision mesh of f1 ->
      <collision >
        <origin xyz="0 0 0" rpy="0 0 0"/>
        <geometry>
          <mesh filename="package://sandia_hand_description/meshes/f1.stl"/>
        </geometry>
      </collision>
      <!-   end collision mesh of f1 -->
    <!-- begin visual mesh of f1 ->
      <visual>
        <origin xyz="0 0 0" rpy="0 0 0"/>
        <geometry>
          <mesh filename="package://sandia_hand_description/meshes/f1.stl"/>
        </geometry>
        <material name="${side}_sandia_hand_skin">
          <color rgba="0.835 0.655 0.345 1.0"/>
        </material>
      </visual>
      <!-   end visual mesh of f1 -->
  </link>
  <link name="left_f2_1_accel">
    <origin rpy="0 0 0" xyz="0 0 0"/>
    <inertial>
      <mass value="0.01"/>
      <origin xyz="0 0 0"/>
      <inertia ixx="0.000001" ixy="0" ixz="0" iyy="0.000001" iyz="0" izz="0.000001"/>
    </inertial>
  </link>
  <link name="left_f2_2">
    <origin rpy="0 0 0" xyz="0 0 0"/>
    <inertial>
      <mass value="0.033"/>
      <!-- F3 -->
      <origin xyz="0 0 0"/>
      <!-- solid cylinder -->
      <inertia ixx="0.0000013365" ixy="0" ixz="0" iyy="0.000009603" iyz="0" izz="0.000009603"/>
    </inertial>
    <!-- begin simple shape approximation of f2 -->
    <collision >
      <origin rpy="0 1.57079632679 0" xyz="0.024 0 0"/>
      <geometry>
        <cylinder length="0.057" radius="0.009"/>
      </geometry>
    </collision>
    <collision >
      <origin rpy="0 0 0" xyz="0.052 0 0"/>
      <geometry>
        <sphere radius="0.009"/>
      </geometry>
    </collision>
    <!--   end simple shape approximation of f2 -->
    <!-- begin visual shape approximation of f2 -->
    <visual>
      <origin rpy="0 1.57079632679 0" xyz="0.024 0 0"/>
      <geometry>
        <cylinder length="0.057" radius="0.009"/>
      </geometry>
      <material name="left_sandia_hand_skin_suntan">
        <color rgba="0.8 0.6 0.3 1.0"/>
      </material>
    </visual>
    <visual>
      <origin rpy="0 0 0" xyz="0.052 0 0"/>
      <geometry>
        <sphere radius="0.009"/>
      </geometry>
      <material name="left_sandia_hand_skin_suntan">
        <color rgba="0.8 0.6 0.3 1.0"/>
      </material>
    </visual>
    <!-- begin collision mesh of f2    ->
      <collision >
        <origin xyz="0 0 0" rpy="0 0 0"/>
        <geometry>
          <mesh filename="package://sandia_hand_description/meshes/f2.stl"/>
        </geometry>
      </collision>
      <!-   end collision mesh of f2 -->
    <!-- begin visual mesh of f2    ->
      <visual>
        <origin xyz="0 0 0" rpy="0 0 0"/>
        <geometry>
          <mesh filename="package://sandia_hand_description/meshes/f2.stl"/>
        </geometry>
        <material name="${side}_sandia_hand_skin_suntan">
          <color rgba="0.8 0.6 0.3 1.0"/>
        </material>
      </visual>
      <!-   end visual mesh of f2 -->
  </link>
  <link name="left_f2_2_accel">
    <origin rpy="0 0 0" xyz="0 0 0"/>
    <inertial>
      <mass value="0.01"/>
      <origin xyz="0 0 0"/>
      <inertia ixx="0.000001" ixy="0" ixz="0" iyy="0.000001" iyz="0" izz="0.000001"/>
    </inertial>
  </link>
  <joint name="left_f2_base" type="fixed">
    <parent link="left_palm"/>
    <child link="left_f2_base"/>
    <origin rpy="0 0 -0.3" xyz="0.09 -0.06245 0"/>
  </joint>
  <joint name="left_f2_j0" type="revolute">
    <axis xyz="0 0 -1"/>
    <parent link="left_f2_base"/>
    <child link="left_f2_0"/>
    <limit effort="11" lower="-1.57079632679" upper="1.57079632679" velocity="-1"/>
    <safety_controller k_position="1000.0" k_velocity="1000.0" soft_lower_limit="-11.57079" soft_upper_limit="11.57079"/>
    <dynamics damping="1.0"/>
    <origin rpy="0 0 0" xyz="0 0 0"/>
  </joint>
  <joint name="left_f2_j1" type="revolute">
    <axis xyz="0 0 1"/>
    <parent link="left_f2_0"/>
    <child link="left_f2_1"/>
    <limit effort="28" lower="-1.57079632679" upper="1.57079632679" velocity="-1"/>
    <safety_controller k_position="1000.0" k_velocity="1000.0" soft_lower_limit="-11.57079" soft_upper_limit="11.57079"/>
    <dynamics damping="1.0"/>
    <origin rpy="1.57079632679 0 0" xyz="0.028 0 0"/>
  </joint>
  <joint name="left_f2_j2" type="revolute">
    <axis xyz="0 0 1"/>
    <parent link="left_f2_1"/>
    <child link="left_f2_2"/>
    <origin rpy="0 0 0" xyz="0.05 0 0"/>
    <safety_controller k_position="1000.0" k_velocity="1000.0" soft_lower_limit="-11.57079" soft_upper_limit="11.57079"/>
    <dynamics damping="1.0"/>
    <limit effort="28" lower="-1.57079632679" upper="1.57079632679" velocity="-1"/>
  </joint>
  <joint name="left_f2_fixed_accel" type="fixed">
    <parent link="left_f2_base"/>
    <child link="left_f2_fixed_accel"/>
    <origin rpy="0 0 0" xyz="-0.05 0 0"/>
  </joint>
  <joint name="left_f2_1_accel" type="fixed">
    <parent link="left_f2_1"/>
    <child link="left_f2_1_accel"/>
    <origin rpy="-1.57079632679 0 0" xyz="0.03 0 0"/>
  </joint>
  <joint name="left_f2_2_accel" type="fixed">
    <parent link="left_f2_2"/>
    <child link="left_f2_2_accel"/>
    <origin rpy="-1.57079632679 0 0" xyz="0.04 0 0"/>
  </joint>
  <transmission name="left_f2_j0" type="pr2_mechanism_model/SimpleTransmission">
    <joint name="left_f2_j0"/>
    <actuator name="left_f2_j0_motor"/>
    <mechanicalReduction>1</mechanicalReduction>
  </transmission>
  <transmission name="left_f2_j1" type="pr2_mechanism_model/SimpleTransmission">
    <joint name="left_f2_j1"/>
    <actuator name="left_f2_j1_motor"/>
    <mechanicalReduction>1</mechanicalReduction>
  </transmission>
  <transmission name="left_f2_j2" type="pr2_mechanism_model/SimpleTransmission">
    <joint name="left_f2_j2"/>
    <actuator name="left_f2_j2_motor"/>
    <mechanicalReduction>1</mechanicalReduction>
  </transmission>
  <gazebo reference="left_f2_base">
    <mu1>1.1</mu1>
    <mu2>1.1</mu2>
    <kp>1000000.0</kp>
    <kd>10.0</kd>
    <maxVel>0.1</maxVel>
    <minDepth>0.00</minDepth>
    <maxContacts>1</maxContacts>
    <material>Gazebo/FlatBlack</material>
  </gazebo>
  <gazebo reference="left_f2_0">
    <mu1>1.1</mu1>
    <mu2>1.1</mu2>
    <kp>1000000.0</kp>
    <kd>10.0</kd>
    <maxVel>0.1</maxVel>
    <minDepth>0.00</minDepth>
    <maxContacts>1</maxContacts>
    <material>Gazebo/FlatBlack</material>
  </gazebo>
  <gazebo reference="left_f2_1">
    <mu1>1.1</mu1>
    <mu2>1.1</mu2>
    <kp>1000000.0</kp>
    <kd>10.0</kd>
    <maxVel>0.1</maxVel>
    <minDepth>0.00</minDepth>
    <maxContacts>1</maxContacts>
    <material>Gazebo/FlatBlack</material>
  </gazebo>
  <gazebo reference="left_f2_2">
    <mu1>1.1</mu1>
    <mu2>1.1</mu2>
    <kp>1000000.0</kp>
    <kd>10.0</kd>
    <maxVel>0.1</maxVel>
    <minDepth>0.00</minDepth>
    <maxContacts>1</maxContacts>
    <material>Gazebo/FlatBlack</material>
  </gazebo>
  <gazebo reference="left_f2_j0">
    <cfmDamping>1</cfmDamping>
  </gazebo>
  <gazebo reference="left_f2_j1">
    <cfmDamping>1</cfmDamping>
  </gazebo>
  <gazebo reference="left_f2_j2">
    <cfmDamping>1</cfmDamping>
  </gazebo>
  <link name="left_f3_base">
    <origin rpy="0 0 0" xyz="0 0 0"/>
    <inertial>
      <!-- total mass is 2.303 kg, palm is about 1.303 kg, distribute the rest into _base -->
      <mass value="0.250"/>
      <!-- (2.303 - 1.303) / 4 -->
      <origin xyz="0 0 0"/>
      <!-- model as sphere with radius of 1cm -->
      <inertia ixx="0.00001" ixy="0" ixz="0" iyy="0.00001" iyz="0" izz="0.00001"/>
    </inertial>
  </link>
  <link name="left_f3_fixed_accel">
    <origin rpy="0 0 0" xyz="0 0 0"/>
    <inertial>
      <mass value="0.01"/>
      <origin xyz="0 0 0"/>
      <inertia ixx="0.000001" ixy="0" ixz="0" iyy="0.000001" iyz="0" izz="0.000001"/>
    </inertial>
  </link>
  <link name="left_f3_0">
    <origin rpy="0 0 0" xyz="0 0 0"/>
    <inertial>
      <mass value="0.106"/>
      <!-- F1 -->
      <origin xyz="0 0 0"/>
      <!-- solid cylinder -->
      <inertia ixx="0.000011925" ixy="0" ixz="0" iyy="0.00011505" iyz="0" izz="0.00011505"/>
    </inertial>
    <!-- begin simple shape approximation of f0 -->
    <collision >
      <origin rpy="0 0 0" xyz="0 0 0.003"/>
      <geometry>
        <cylinder length="0.023" radius="0.015"/>
      </geometry>
    </collision>
    <collision >
      <origin rpy="1.57079632679 0 0" xyz="0.011 0 0.003"/>
      <geometry>
        <cylinder length="0.023" radius="0.01"/>
      </geometry>
    </collision>
    <!--   end simple shape approximation of f0 -->
    <!-- begin visual shape approximation of f0 -->
    <visual>
      <origin rpy="0 0 0" xyz="0 0 0.003"/>
      <geometry>
        <cylinder length="0.023" radius="0.015"/>
      </geometry>
      <material name="left_sandia_hand_skin_suntan">
        <color rgba="0.7 0.4 0.2 1.0"/>
      </material>
    </visual>
    <visual>
      <origin rpy="1.57079632679 0 0" xyz="0.011 0 0.003"/>
      <geometry>
        <cylinder length="0.023" radius="0.01"/>
      </geometry>
      <material name="left_sandia_hand_skin_suntan">
        <color rgba="0.7 0.4 0.2 1.0"/>
      </material>
    </visual>
    <!--   end visual shape approximation of f0 -->
    <!-- begin collision mesh of f0 ->
      <collision >
        <origin xyz="0 0 0" rpy="0 0 0"/>
        <geometry>
          <mesh filename="package://sandia_hand_description/meshes/f0.stl"/>
        </geometry>
      </collision>
      <!-   end collision mesh of f0 -->
    <!-- begin visual mesh of f0 ->
      <visual>
        <origin xyz="0 0 0" rpy="0 0 0"/>
        <geometry>
          <mesh filename="package://sandia_hand_description/meshes/f0.stl"/>
        </geometry>
        <material name="${side}_sandia_hand_skin_suntan">
          <color rgba="0.7 0.4 0.2 1.0"/>
        </material>
      </visual>
      <!-   end visual mesh of f0 -->
  </link>
  <link name="left_f3_1">
    <origin rpy="0 0 0" xyz="0 0 0"/>
    <inertial>
      <mass value="0.033"/>
      <!-- F2 -->
      <origin xyz="0 0 0"/>
      <!-- solid cylinder -->
      <inertia ixx="0.00000165" ixy="0" ixz="0" iyy="0.00001316975" iyz="0" izz="0.00001316975"/>
    </inertial>
    <!-- begin simple shape approximation of f1 -->
    <collision >
      <origin rpy="0 1.57079632679 0" xyz="0.024 0 0"/>
      <geometry>
        <cylinder length="0.067" radius="0.01"/>
      </geometry>
    </collision>
    <!--   end simple shape approximation of f1 -->
    <!-- begin visual shape approximation of f1 -->
    <visual>
      <origin rpy="0 1.57079632679 0" xyz="0.024 0 0"/>
      <geometry>
        <cylinder length="0.067" radius="0.01"/>
      </geometry>
      <material name="left_sandia_hand_skin">
        <color rgba="0.835 0.655 0.345 1.0"/>
      </material>
    </visual>
    <!--   end visual shape approximation of f1 -->
    <!-- begin collision mesh of f1 ->
      <collision >
        <origin xyz="0 0 0" rpy="0 0 0"/>
        <geometry>
          <mesh filename="package://sandia_hand_description/meshes/f1.stl"/>
        </geometry>
      </collision>
      <!-   end collision mesh of f1 -->
    <!-- begin visual mesh of f1 ->
      <visual>
        <origin xyz="0 0 0" rpy="0 0 0"/>
        <geometry>
          <mesh filename="package://sandia_hand_description/meshes/f1.stl"/>
        </geometry>
        <material name="${side}_sandia_hand_skin">
          <color rgba="0.835 0.655 0.345 1.0"/>
        </material>
      </visual>
      <!-   end visual mesh of f1 -->
  </link>
  <link name="left_f3_1_accel">
    <origin rpy="0 0 0" xyz="0 0 0"/>
    <inertial>
      <mass value="0.01"/>
      <origin xyz="0 0 0"/>
      <inertia ixx="0.000001" ixy="0" ixz="0" iyy="0.000001" iyz="0" izz="0.000001"/>
    </inertial>
  </link>
  <link name="left_f3_2">
    <origin rpy="0 0 0" xyz="0 0 0"/>
    <inertial>
      <mass value="0.033"/>
      <!-- F3 -->
      <origin xyz="0 0 0"/>
      <!-- solid cylinder -->
      <inertia ixx="0.0000013365" ixy="0" ixz="0" iyy="0.000009603" iyz="0" izz="0.000009603"/>
    </inertial>
    <!-- begin simple shape approximation of f2 -->
    <collision >
      <origin rpy="0 1.57079632679 0" xyz="0.024 0 0"/>
      <geometry>
        <cylinder length="0.057" radius="0.009"/>
      </geometry>
    </collision>
    <collision >
      <origin rpy="0 0 0" xyz="0.052 0 0"/>
      <geometry>
        <sphere radius="0.009"/>
      </geometry>
    </collision>
    <!--   end simple shape approximation of f2 -->
    <!-- begin visual shape approximation of f2 -->
    <visual>
      <origin rpy="0 1.57079632679 0" xyz="0.024 0 0"/>
      <geometry>
        <cylinder length="0.057" radius="0.009"/>
      </geometry>
      <material name="left_sandia_hand_skin_suntan">
        <color rgba="0.8 0.6 0.3 1.0"/>
      </material>
    </visual>
    <visual>
      <origin rpy="0 0 0" xyz="0.052 0 0"/>
      <geometry>
        <sphere radius="0.009"/>
      </geometry>
      <material name="left_sandia_hand_skin_suntan">
        <color rgba="0.8 0.6 0.3 1.0"/>
      </material>
    </visual>
    <!-- begin collision mesh of f2    ->
      <collision >
        <origin xyz="0 0 0" rpy="0 0 0"/>
        <geometry>
          <mesh filename="package://sandia_hand_description/meshes/f2.stl"/>
        </geometry>
      </collision>
      <!-   end collision mesh of f2 -->
    <!-- begin visual mesh of f2    ->
      <visual>
        <origin xyz="0 0 0" rpy="0 0 0"/>
        <geometry>
          <mesh filename="package://sandia_hand_description/meshes/f2.stl"/>
        </geometry>
        <material name="${side}_sandia_hand_skin_suntan">
          <color rgba="0.8 0.6 0.3 1.0"/>
        </material>
      </visual>
      <!-   end visual mesh of f2 -->
  </link>
  <link name="left_f3_2_accel">
    <origin rpy="0 0 0" xyz="0 0 0"/>
    <inertial>
      <mass value="0.01"/>
      <origin xyz="0 0 0"/>
      <inertia ixx="0.000001" ixy="0" ixz="0" iyy="0.000001" iyz="0" izz="0.000001"/>
    </inertial>
  </link>
  <joint name="left_f3_base" type="fixed">
    <parent link="left_palm"/>
    <child link="left_f3_base"/>
    <origin rpy="0 -1.57079632679 2.3562" xyz="0.03995 0.04383 0.014"/>
  </joint>
  <joint name="left_f3_j0" type="revolute">
    <axis xyz="0 0 -1"/>
    <parent link="left_f3_base"/>
    <child link="left_f3_0"/>
    <limit effort="11" lower="-1.57079632679" upper="1.57079632679" velocity="-1"/>
    <safety_controller k_position="1000.0" k_velocity="1000.0" soft_lower_limit="-11.57079" soft_upper_limit="11.57079"/>
    <dynamics damping="1.0"/>
    <origin rpy="0 0 0" xyz="0 0 0"/>
  </joint>
  <joint name="left_f3_j1" type="revolute">
    <axis xyz="0 0 1"/>
    <parent link="left_f3_0"/>
    <child link="left_f3_1"/>
    <limit effort="28" lower="-1.57079632679" upper="1.57079632679" velocity="-1"/>
    <safety_controller k_position="1000.0" k_velocity="1000.0" soft_lower_limit="-11.57079" soft_upper_limit="11.57079"/>
    <dynamics damping="1.0"/>
    <origin rpy="1.57079632679 0 0" xyz="0.028 0 0"/>
  </joint>
  <joint name="left_f3_j2" type="revolute">
    <axis xyz="0 0 1"/>
    <parent link="left_f3_1"/>
    <child link="left_f3_2"/>
    <origin rpy="0 0 0" xyz="0.05 0 0"/>
    <safety_controller k_position="1000.0" k_velocity="1000.0" soft_lower_limit="-11.57079" soft_upper_limit="11.57079"/>
    <dynamics damping="1.0"/>
    <limit effort="28" lower="-1.57079632679" upper="1.57079632679" velocity="-1"/>
  </joint>
  <joint name="left_f3_fixed_accel" type="fixed">
    <parent link="left_f3_base"/>
    <child link="left_f3_fixed_accel"/>
    <origin rpy="0 0 0" xyz="-0.05 0 0"/>
  </joint>
  <joint name="left_f3_1_accel" type="fixed">
    <parent link="left_f3_1"/>
    <child link="left_f3_1_accel"/>
    <origin rpy="-1.57079632679 0 0" xyz="0.03 0 0"/>
  </joint>
  <joint name="left_f3_2_accel" type="fixed">
    <parent link="left_f3_2"/>
    <child link="left_f3_2_accel"/>
    <origin rpy="-1.57079632679 0 0" xyz="0.04 0 0"/>
  </joint>
  <transmission name="left_f3_j0" type="pr2_mechanism_model/SimpleTransmission">
    <joint name="left_f3_j0"/>
    <actuator name="left_f3_j0_motor"/>
    <mechanicalReduction>1</mechanicalReduction>
  </transmission>
  <transmission name="left_f3_j1" type="pr2_mechanism_model/SimpleTransmission">
    <joint name="left_f3_j1"/>
    <actuator name="left_f3_j1_motor"/>
    <mechanicalReduction>1</mechanicalReduction>
  </transmission>
  <transmission name="left_f3_j2" type="pr2_mechanism_model/SimpleTransmission">
    <joint name="left_f3_j2"/>
    <actuator name="left_f3_j2_motor"/>
    <mechanicalReduction>1</mechanicalReduction>
  </transmission>
  <gazebo reference="left_f3_base">
    <mu1>1.1</mu1>
    <mu2>1.1</mu2>
    <kp>1000000.0</kp>
    <kd>10.0</kd>
    <maxVel>0.1</maxVel>
    <minDepth>0.00</minDepth>
    <maxContacts>1</maxContacts>
    <material>Gazebo/FlatBlack</material>
  </gazebo>
  <gazebo reference="left_f3_0">
    <mu1>1.1</mu1>
    <mu2>1.1</mu2>
    <kp>1000000.0</kp>
    <kd>10.0</kd>
    <maxVel>0.1</maxVel>
    <minDepth>0.00</minDepth>
    <maxContacts>1</maxContacts>
    <material>Gazebo/FlatBlack</material>
  </gazebo>
  <gazebo reference="left_f3_1">
    <mu1>1.1</mu1>
    <mu2>1.1</mu2>
    <kp>1000000.0</kp>
    <kd>10.0</kd>
    <maxVel>0.1</maxVel>
    <minDepth>0.00</minDepth>
    <maxContacts>1</maxContacts>
    <material>Gazebo/FlatBlack</material>
  </gazebo>
  <gazebo reference="left_f3_2">
    <mu1>1.1</mu1>
    <mu2>1.1</mu2>
    <kp>1000000.0</kp>
    <kd>10.0</kd>
    <maxVel>0.1</maxVel>
    <minDepth>0.00</minDepth>
    <maxContacts>1</maxContacts>
    <material>Gazebo/FlatBlack</material>
  </gazebo>
  <gazebo reference="left_f3_j0">
    <cfmDamping>1</cfmDamping>
  </gazebo>
  <gazebo reference="left_f3_j1">
    <cfmDamping>1</cfmDamping>
  </gazebo>
  <gazebo reference="left_f3_j2">
    <cfmDamping>1</cfmDamping>
  </gazebo>
  <gazebo reference="left_palm">
    <mu1>1.1</mu1>
    <mu2>1.1</mu2>
    <kp>1000000.0</kp>
    <kd>1.0</kd>
    <maxVel>0.1</maxVel>
    <minDepth>0.00</minDepth>
    <maxContacts>6</maxContacts>
    <material>Gazebo/FlatBlack</material>
  </gazebo>
  <joint name="left_palm_left_camera_frame_joint" type="fixed">
    <origin rpy="-0.6708 -1.57079632679 3.14159265359" xyz="0.0435128991906 -0.0451672761576 0.025"/>
    <parent link="left_palm"/>
    <child link="left_palm_left_camera_frame"/>
  </joint>
  <link name="left_palm_left_camera_frame">
    <inertial>
      <mass value="0.01"/>
      <origin xyz="0 0 0"/>
      <inertia ixx="0.0001" ixy="0.0" ixz="0.0" iyy="0.0001" iyz="0.0" izz="0.0001"/>
    </inertial>
    <visual >
      <origin rpy="0 0 0" xyz="0 0 0"/>
      <geometry>
        <box size="0.003 0.010 0.007"/>
      </geometry>
    </visual>
  </link>
  <joint name="left_palm_left_camera_optical_frame_joint" type="fixed">
    <origin rpy="-1.57079632679 0.0 -1.57079632679" xyz="0 0 0"/>
    <parent link="left_palm_left_camera_frame"/>
    <child link="left_palm_left_camera_optical_frame"/>
  </joint>
  <link name="left_palm_left_camera_optical_frame"/>
  <gazebo reference="left_palm_left_camera_frame">
    <sensor name="left_palm_stereo_camera" type="multicamera">
      <update_rate>30.0</update_rate>
      <camera name="left">
        <horizontal_fov>1.25663706144</horizontal_fov>
        <image>
          <width>752</width>
          <height>480</height>
          <format>L8</format>
        </image>
        <clip>
          <near>0.02</near>
          <far>100</far>
        </clip>
        <noise>
          <type>gaussian</type>
          <mean>0.0</mean>
          <stddev>0.007</stddev>
        </noise>
      </camera>
      <camera name="right">
        <pose>0 -0.04 0  0 0 0</pose>
        <horizontal_fov>1.25663706144</horizontal_fov>
        <image>
          <width>752</width>
          <height>480</height>
          <format>L8</format>
        </image>
        <clip>
          <near>0.02</near>
          <far>100</far>
        </clip>
        <noise>
          <type>gaussian</type>
          <mean>0.0</mean>
          <stddev>0.007</stddev>
        </noise>
      </camera>
      <plugin filename="libgazebo_ros_multicamera.so" name="stereo_camera_controller">
        <alwaysOn>true</alwaysOn>
        <updateRate>0.0</updateRate>
        <cameraName>sandia_hands/l_hand/camera</cameraName>
        <imageTopicName>image_raw</imageTopicName>
        <cameraInfoTopicName>camera_info</cameraInfoTopicName>
        <frameName>left_palm_left_camera_optical_frame</frameName>
        <hackBaseline>0.04</hackBaseline>
        <distortionK1>0.0</distortionK1>
        <distortionK2>0.0</distortionK2>
        <distortionK3>0.0</distortionK3>
        <distortionT1>0.0</distortionT1>
        <distortionT2>0.0</distortionT2>
      </plugin>
    </sensor>
  </gazebo>
  <joint name="left_palm_right_camera_frame_joint" type="fixed">
    <origin rpy="-0.6708 -1.57079632679 3.14159265359" xyz="0.0683774130138 -0.0138342911048 0.025"/>
    <parent link="left_palm"/>
    <child link="left_palm_right_camera_frame"/>
  </joint>
  <link name="left_palm_right_camera_frame">
    <inertial>
      <mass value="0.01"/>
      <origin xyz="0 0 0"/>
      <inertia ixx="0.0001" ixy="0.0" ixz="0.0" iyy="0.0001" iyz="0.0" izz="0.0001"/>
    </inertial>
    <visual >
      <origin rpy="0 0 0" xyz="0 0 0"/>
      <geometry>
        <box size="0.003 0.010 0.007"/>
      </geometry>
    </visual>
  </link>
  <joint name="left_palm_right_camera_optical_frame_joint" type="fixed">
    <origin rpy="-1.57079632679 0.0 -1.57079632679" xyz="0 0 0"/>
    <parent link="left_palm_right_camera_frame"/>
    <child link="left_palm_right_camera_optical_frame"/>
  </joint>
  <link name="left_palm_right_camera_optical_frame"/>
  <gazebo>
    <plugin filename="libContactModelPlugin.so" name="sandia_contact_plugin">
      <contact>
        <collision>l_hand::l_hand_collision_left_palm</collision>
        <collision>l_hand::l_hand_collision_left_palm_1</collision>
        <collision>l_hand::l_hand_collision_left_palm_3</collision>
        <collision>l_hand::l_hand_collision_left_palm_4</collision>
        <collision>l_hand::l_hand_collision_left_palm_5</collision>
        <collision>left_f0_1::left_f0_1_collision</collision>
        <collision>left_f0_2::left_f0_2_collision</collision>
        <collision>left_f1_1::left_f1_1_collision</collision>
        <collision>left_f1_2::left_f1_2_collision</collision>
        <collision>left_f2_1::left_f2_1_collision</collision>
        <collision>left_f2_2::left_f2_2_collision</collision>
        <collision>left_f3_1::left_f3_1_collision</collision>
        <collision>left_f3_2::left_f3_2_collision</collision>
      </contact>
    </plugin>
  </gazebo>
  <gazebo reference="l_hand">
    <sensor name="imu_sensor" type="imu">
      <always_on>1</always_on>
      <update_rate>1000.0</update_rate>
      <imu>
        <noise>
          <type>gaussian</type>
          <rate>
            <mean>0.0</mean>
            <stddev>2e-4</stddev>
            <bias_mean>0.0000075</bias_mean>
            <bias_stddev>0.0000008</bias_stddev>
          </rate>
          <accel>
            <mean>0.0</mean>
            <stddev>1.7e-2</stddev>
            <bias_mean>0.1</bias_mean>
            <bias_stddev>0.001</bias_stddev>
          </accel>
        </noise>
      </imu>
    </sensor>
  </gazebo>
  <gazebo>
    <!-- robot model offset -->
    <pose>0 0 0.93 0 0 0</pose>
  </gazebo>
  <gazebo>
    <plugin filename="libAtlasPlugin.so" name="atlas_plugin"/>
    <plugin filename="libgazebo_ros_joint_pose_trajectory.so" name="joint_trajectory_plugin">
      <topicName>joint_trajectory</topicName>
      <updateRate>1000.0</updateRate>
    </plugin>
    <!--
    <plugin filename="libgazebo_ros_controller_manager.so" name="gazebo_ros_controller_manager">
      <alwaysOn>true</alwaysOn>
      <updateRate>1000.0</updateRate>
    </plugin>
    -->
  </gazebo>
  <link name="imu_link">
    <inertial>
      <mass value="0.1"/>
      <origin xyz="0 0 0"/>
      <inertia ixx="0.001" ixy="0" ixz="0" iyy="0.001" iyz="0" izz="0.001"/>
    </inertial>
    <visual>
      <origin rpy="0 0 0" xyz="0 0 0"/>
      <geometry>
        <box size="0.01 0.01 0.01"/>
      </geometry>
    </visual>
  </link>
  <joint name="imu_joint" type="fixed">
    <parent link="pelvis"/>
    <child link="imu_link"/>
    <origin rpy="0 0 0" xyz="0.05991527603 0 -0.01415"/>
  </joint>
  <gazebo reference="imu_link">
    <!-- this is expected to be reparented to pelvis with appropriate offset
         when imu_link is reduced by fixed joint reduction -->
    <!-- todo: this is working with gazebo 1.4, need to write a unit test -->
    <sensor name="imu_sensor" type="imu">
      <always_on>1</always_on>
      <update_rate>1000.0</update_rate>
      <imu>
        <noise>
          <type>gaussian</type>
          <!-- Noise parameters from Boston Dynamics
               (http://gazebosim.org/wiki/Sensor_noise):
                 rates (rad/s): mean=0, stddev=2e-4
                 accels (m/s/s): mean=0, stddev=1.7e-2
                 rate bias (rad/s): 5e-6 - 1e-5
                 accel bias (m/s/s): 1e-1
               Experimentally, simulation provide rates with noise of
               about 1e-3 rad/s and accels with noise of about 1e-1 m/s/s.
               So we don't expect to see the noise unless number of inner iterations
               are increased.

               We will add bias.  In this model, bias is sampled once for rates
               and once for accels at startup; the sign (negative or positive)
               of each bias is then switched with equal probability.  Thereafter,
               the biases are fixed additive offsets.  We choose
               bias means and stddevs to produce biases close to the provided
               data. -->
          <rate>
            <mean>0.0</mean>
            <stddev>2e-4</stddev>
            <bias_mean>0.0000075</bias_mean>
            <bias_stddev>0.0000008</bias_stddev>
          </rate>
          <accel>
            <mean>0.0</mean>
            <stddev>1.7e-2</stddev>
            <bias_mean>0.1</bias_mean>
            <bias_stddev>0.001</bias_stddev>
          </accel>
        </noise>
      </imu>
    </sensor>
  </gazebo>
  <gazebo reference="l_arm_wrx">
    <provideFeedback>1</provideFeedback>
  </gazebo>
  <gazebo reference="r_arm_wrx">
    <provideFeedback>1</provideFeedback>
  </gazebo>
  <gazebo reference="l_leg_akx">
    <provideFeedback>1</provideFeedback>
    <implicitSpringDamper>1</implicitSpringDamper>
  </gazebo>
  <gazebo reference="r_leg_akx">
    <provideFeedback>1</provideFeedback>
    <implicitSpringDamper>1</implicitSpringDamper>
  </gazebo>
  <gazebo reference="r_foot">
    <!-- kp and kd for rubber -->
    <kp>1000000.0</kp>
    <kd>100.0</kd>
    <mu1>1.5</mu1>
    <mu2>1.5</mu2>
    <fdir1>1 0 0</fdir1>
    <maxVel>1.0</maxVel>
    <minDepth>0.00</minDepth>
  </gazebo>
  <gazebo reference="l_foot">
    <kp>1000000.0</kp>
    <kd>100.0</kd>
    <mu1>1.5</mu1>
    <mu2>1.5</mu2>
    <fdir1>1 0 0</fdir1>
    <maxVel>1.0</maxVel>
    <minDepth>0.00</minDepth>
  </gazebo>
  <gazebo reference="l_clav">
    <mu1>0.9</mu1>
    <mu2>0.9</mu2>
  </gazebo>
  <gazebo reference="l_farm">
    <mu1>0.9</mu1>
    <mu2>0.9</mu2>
  </gazebo>
  <gazebo reference="l_hand">
    <mu1>0.9</mu1>
    <mu2>0.9</mu2>
  </gazebo>
  <gazebo reference="l_larm">
    <mu1>0.9</mu1>
    <mu2>0.9</mu2>
  </gazebo>
  <gazebo reference="l_lglut">
    <mu1>0.9</mu1>
    <mu2>0.9</mu2>
  </gazebo>
  <gazebo reference="l_lleg">
    <mu1>0.9</mu1>
    <mu2>0.9</mu2>
  </gazebo>
  <gazebo reference="l_scap">
    <mu1>0.9</mu1>
    <mu2>0.9</mu2>
  </gazebo>
  <gazebo reference="l_talus">
    <mu1>0.9</mu1>
    <mu2>0.9</mu2>
  </gazebo>
  <gazebo reference="l_uarm">
    <mu1>0.9</mu1>
    <mu2>0.9</mu2>
  </gazebo>
  <gazebo reference="l_uglut">
    <mu1>0.9</mu1>
    <mu2>0.9</mu2>
  </gazebo>
  <gazebo reference="l_uleg">
    <mu1>0.9</mu1>
    <mu2>0.9</mu2>
  </gazebo>
  <gazebo reference="ltorso">
    <mu1>0.9</mu1>
    <mu2>0.9</mu2>
  </gazebo>
  <gazebo reference="mtorso">
    <mu1>0.9</mu1>
    <mu2>0.9</mu2>
  </gazebo>
  <gazebo reference="pelvis">
    <mu1>0.9</mu1>
    <mu2>0.9</mu2>
  </gazebo>
  <gazebo reference="r_clav">
    <mu1>0.9</mu1>
    <mu2>0.9</mu2>
  </gazebo>
  <gazebo reference="r_farm">
    <mu1>0.9</mu1>
    <mu2>0.9</mu2>
  </gazebo>
  <gazebo reference="r_hand">
    <mu1>0.9</mu1>
    <mu2>0.9</mu2>
  </gazebo>
  <gazebo reference="r_larm">
    <mu1>0.9</mu1>
    <mu2>0.9</mu2>
  </gazebo>
  <gazebo reference="r_lglut">
    <mu1>0.9</mu1>
    <mu2>0.9</mu2>
  </gazebo>
  <gazebo reference="r_lleg">
    <mu1>0.9</mu1>
    <mu2>0.9</mu2>
  </gazebo>
  <gazebo reference="r_scap">
    <mu1>0.9</mu1>
    <mu2>0.9</mu2>
  </gazebo>
  <gazebo reference="r_talus">
    <mu1>0.9</mu1>
    <mu2>0.9</mu2>
  </gazebo>
  <gazebo reference="r_uarm">
    <mu1>0.9</mu1>
    <mu2>0.9</mu2>
  </gazebo>
  <gazebo reference="r_uglut">
    <mu1>0.9</mu1>
    <mu2>0.9</mu2>
  </gazebo>
  <gazebo reference="r_uleg">
    <mu1>0.9</mu1>
    <mu2>0.9</mu2>
  </gazebo>
  <gazebo reference="utorso">
    <mu1>0.9</mu1>
    <mu2>0.9</mu2>
  </gazebo>
  <gazebo>
    <plugin filename="libgazebo_ros_p3d.so" name="gazebo_ros_p3d">
      <bodyName>pelvis</bodyName>
      <topicName>/ground_truth_odom</topicName>
      <alwaysOn>true</alwaysOn>
      <updateRate>100.0</updateRate>
    </plugin>
  </gazebo>
  <gazebo reference="r_foot">
    <!-- contact sensor -->
    <sensor name="r_foot_contact_sensor" type="contact">
      <update_rate>1000.0</update_rate>
      <always_on>1</always_on>
      <contact>
        <collision>r_foot_collision</collision>
        <topic>/r_foot_contact</topic>
      </contact>
    </sensor>
  </gazebo>
  <gazebo reference="l_foot">
    <!-- contact sensor -->
    <sensor name="l_foot_contact_sensor" type="contact">
      <update_rate>1000.0</update_rate>
      <always_on>1</always_on>
      <contact>
        <collision>l_foot_collision</collision>
        <topic>/l_foot_contact</topic>
      </contact>
    </sensor>
  </gazebo>
  <gazebo>
    <plugin filename="libgazebo_ros_force.so" name="gazebo_ros_force">
      <bodyName>pelvis</bodyName>
      <topicName>/atlas/apply_pelvis_force</topicName>
    </plugin>
  </gazebo>
  <gazebo reference="back_bkz">
    <implicitSpringDamper>1</implicitSpringDamper>
  </gazebo>
  <gazebo reference="back_bky">
    <implicitSpringDamper>1</implicitSpringDamper>
  </gazebo>
  <gazebo reference="back_bkx">
    <implicitSpringDamper>1</implicitSpringDamper>
  </gazebo>
  <gazebo reference="l_arm_elx">
    <implicitSpringDamper>1</implicitSpringDamper>
  </gazebo>
  <gazebo reference="l_arm_ely">
    <implicitSpringDamper>1</implicitSpringDamper>
  </gazebo>
  <gazebo reference="l_arm_wrx">
    <implicitSpringDamper>1</implicitSpringDamper>
  </gazebo>
  <gazebo reference="l_arm_shx">
    <implicitSpringDamper>1</implicitSpringDamper>
  </gazebo>
  <gazebo reference="l_arm_shy">
    <implicitSpringDamper>1</implicitSpringDamper>
  </gazebo>
  <gazebo reference="l_arm_wry">
    <implicitSpringDamper>1</implicitSpringDamper>
  </gazebo>
  <gazebo reference="l_leg_kny">
    <implicitSpringDamper>1</implicitSpringDamper>
  </gazebo>
  <gazebo reference="l_leg_hpy">
    <implicitSpringDamper>1</implicitSpringDamper>
  </gazebo>
  <gazebo reference="l_leg_hpx">
    <implicitSpringDamper>1</implicitSpringDamper>
  </gazebo>
  <gazebo reference="l_leg_aky">
    <implicitSpringDamper>1</implicitSpringDamper>
  </gazebo>
  <gazebo reference="l_leg_hpz">
    <implicitSpringDamper>1</implicitSpringDamper>
  </gazebo>
  <gazebo reference="neck_ry">
    <implicitSpringDamper>1</implicitSpringDamper>
  </gazebo>
  <gazebo reference="r_arm_elx">
    <implicitSpringDamper>1</implicitSpringDamper>
  </gazebo>
  <gazebo reference="r_arm_ely">
    <implicitSpringDamper>1</implicitSpringDamper>
  </gazebo>
  <gazebo reference="r_arm_wrx">
    <implicitSpringDamper>1</implicitSpringDamper>
  </gazebo>
  <gazebo reference="r_arm_shx">
    <implicitSpringDamper>1</implicitSpringDamper>
  </gazebo>
  <gazebo reference="r_arm_shy">
    <implicitSpringDamper>1</implicitSpringDamper>
  </gazebo>
  <gazebo reference="r_arm_wry">
    <implicitSpringDamper>1</implicitSpringDamper>
  </gazebo>
  <gazebo reference="r_leg_kny">
    <implicitSpringDamper>1</implicitSpringDamper>
  </gazebo>
  <gazebo reference="r_leg_hpy">
    <implicitSpringDamper>1</implicitSpringDamper>
  </gazebo>
  <gazebo reference="r_leg_hpx">
    <implicitSpringDamper>1</implicitSpringDamper>
  </gazebo>
  <gazebo reference="r_leg_aky">
    <implicitSpringDamper>1</implicitSpringDamper>
  </gazebo>
  <gazebo reference="r_leg_hpz">
    <implicitSpringDamper>1</implicitSpringDamper>
  </gazebo>
  <gazebo reference="r_situational_awareness_camera_link">
    <sensor name="r_situational_awareness_camera_sensor" type="camera">
      <update_rate>60.0</update_rate>
      <camera name="r_situational_awareness_camera">
        <pose>0 0 0 0 0 0</pose>
        <!-- Spec sheet says 185deg HFOV @ 1280x1024pi @ 60 hz.
             Don't think most GPU's can achieve this at real-time right now.
        <horizontal_fov>3.22885912</horizontal_fov>
        -->
        <horizontal_fov>2.0</horizontal_fov>
        <image>
          <width>1280</width>
          <height>1024</height>
          <format>R8G8B8</format>
        </image>
        <clip>
          <near>0.02</near>
          <far>300</far>
        </clip>
        <noise>
          <type>gaussian</type>
          <!-- Noise is sampled independently per pixel on each frame.  
               That pixel's noise value is added to each of its color
               channels, which at that point lie in the range [0,1].
               The stddev value of 0.007 is based on experimental data 
               from a camera in a Sandia hand pointed at a static scene
               in a couple of different lighting conditions.  -->
          <mean>0.0</mean>
          <stddev>0.007</stddev>
        </noise>
      </camera>
      <plugin filename="libgazebo_ros_camera.so" name="r_situational_awareness_camera_controller">
        <alwaysOn>true</alwaysOn>
        <updateRate>0.0</updateRate>
        <cameraName>r_situational_awareness_camera</cameraName>
        <imageTopicName>image_raw</imageTopicName>
        <cameraInfoTopicName>camera_info</cameraInfoTopicName>
        <frameName>r_situational_awareness_camera_optical_frame</frameName>
        <hackBaseline>0.0</hackBaseline>
        <distortionK1>0.0</distortionK1>
        <distortionK2>0.0</distortionK2>
        <distortionK3>0.0</distortionK3>
        <distortionT1>0.0</distortionT1>
        <distortionT2>0.0</distortionT2>
      </plugin>
    </sensor>
  </gazebo>
  <gazebo reference="l_situational_awareness_camera_link">
    <sensor name="l_situational_awareness_camera_sensor" type="camera">
      <update_rate>60.0</update_rate>
      <camera name="l_situational_awareness_camera">
        <pose>0 0 0 0 0 0</pose>
        <!-- Spec sheet says 185deg HFOV @ 1280x1024pi @ 60 hz.
             Don't think most GPU's can achieve this at real-time right now.
        <horizontal_fov>3.22885912</horizontal_fov>
        -->
        <horizontal_fov>2.0</horizontal_fov>
        <image>
          <width>1280</width>
          <height>1024</height>
          <format>R8G8B8</format>
        </image>
        <clip>
          <near>0.02</near>
          <far>300</far>
        </clip>
        <noise>
          <type>gaussian</type>
          <!-- Noise is sampled independently per pixel on each frame.  
               That pixel's noise value is added to each of its color
               channels, which at that point lie in the range [0,1].
               The stddev value of 0.007 is based on experimental data 
               from a camera in a Sandia hand pointed at a static scene
               in a couple of different lighting conditions.  -->
          <mean>0.0</mean>
          <stddev>0.007</stddev>
        </noise>
      </camera>
      <plugin filename="libgazebo_ros_camera.so" name="l_situational_awareness_camera_controller">
        <alwaysOn>true</alwaysOn>
        <updateRate>0.0</updateRate>
        <cameraName>l_situational_awareness_camera</cameraName>
        <imageTopicName>image_raw</imageTopicName>
        <cameraInfoTopicName>camera_info</cameraInfoTopicName>
        <frameName>l_situational_awareness_camera_optical_frame</frameName>
        <hackBaseline>0.0</hackBaseline>
        <distortionK1>0.0</distortionK1>
        <distortionK2>0.0</distortionK2>
        <distortionK3>0.0</distortionK3>
        <distortionT1>0.0</distortionT1>
        <distortionT2>0.0</distortionT2>
      </plugin>
    </sensor>
  </gazebo>
  <gazebo reference="rear_situational_awareness_camera_link">
    <!-- Rear situational awareness camera is a D-Link DCS-2310L camera.
         Specs taken from website:
         http://www.dlink.com/us/en/home-solutions/view/network-cameras/dcs-2310l-outdoor-hd-poe-day-night-cloud-camera
         FOV: (H)57.8 deg, (V)37.8 deg, (D)66.0 deg
         Avalilable Resolutions:
           16:9 - 1280 x 800, 1280 x 720, 800 x 450, 640 x 360, 480 x 270, 320 x 176, 176 x 144 up to 30 fps recording1
           4:3 - 1024 x 768, 800 x 600, 640 x 480, 480 x 360, 320 x 240, 176 x 144 up to 30 fps recording1 
        -->
    <sensor name="rear_situational_awareness_camera_sensor" type="camera">
      <update_rate>30.0</update_rate>
      <camera name="rear_situational_awareness_camera">
        <pose>0 0 0 0 0 0</pose>
        <horizontal_fov>1.0</horizontal_fov>
        <image>
          <width>1280</width>
          <height>800</height>
          <format>R8G8B8</format>
        </image>
        <clip>
          <near>0.02</near>
          <far>300</far>
        </clip>
        <noise>
          <type>gaussian</type>
          <!-- Noise is sampled independently per pixel on each frame.  
               That pixel's noise value is added to each of its color
               channels, which at that point lie in the range [0,1].
               The stddev value of 0.007 is based on experimental data 
               from a camera in a Sandia hand pointed at a static scene
               in a couple of different lighting conditions.  -->
          <mean>0.0</mean>
          <stddev>0.007</stddev>
        </noise>
      </camera>
      <plugin filename="libgazebo_ros_camera.so" name="rear_situational_awareness_camera_controller">
        <alwaysOn>true</alwaysOn>
        <updateRate>0.0</updateRate>
        <cameraName>rear_situational_awareness_camera</cameraName>
        <imageTopicName>image_raw</imageTopicName>
        <cameraInfoTopicName>camera_info</cameraInfoTopicName>
        <frameName>rear_situational_awareness_camera_optical_frame</frameName>
        <hackBaseline>0.0</hackBaseline>
        <distortionK1>0.0</distortionK1>
        <distortionK2>0.0</distortionK2>
        <distortionK3>0.0</distortionK3>
        <distortionT1>0.0</distortionT1>
        <distortionT2>0.0</distortionT2>
      </plugin>
    </sensor>
  </gazebo>
  <transmission name="head_hokuyo_trans" type="pr2_mechanism_model/SimpleTransmission">
    <joint name="hokuyo_joint"/>
    <actuator name="hokuyo_motor"/>
    <mechanicalReduction>1</mechanicalReduction>
  </transmission>
  <transmission name="back_bkz_trans" type="pr2_mechanism_model/SimpleTransmission">
    <joint name="back_bkz"/>
    <actuator name="back_bkz_motor"/>
    <mechanicalReduction>1</mechanicalReduction>
  </transmission>
  <transmission name="back_bky_trans" type="pr2_mechanism_model/SimpleTransmission">
    <actuator name="back_bky_motor"/>
    <joint name="back_bky"/>
    <mechanicalReduction>1</mechanicalReduction>
  </transmission>
  <transmission name="back_bkx_trans" type="pr2_mechanism_model/SimpleTransmission">
    <actuator name="back_bkx_motor"/>
    <joint name="back_bkx"/>
    <mechanicalReduction>1</mechanicalReduction>
  </transmission>
  <transmission name="l_arm_elx_trans" type="pr2_mechanism_model/SimpleTransmission">
    <actuator name="l_arm_elx_motor"/>
    <joint name="l_arm_elx"/>
    <mechanicalReduction>1</mechanicalReduction>
  </transmission>
  <transmission name="l_arm_ely_trans" type="pr2_mechanism_model/SimpleTransmission">
    <actuator name="l_arm_ely_motor"/>
    <joint name="l_arm_ely"/>
    <mechanicalReduction>1</mechanicalReduction>
  </transmission>
  <transmission name="l_arm_wrx_trans" type="pr2_mechanism_model/SimpleTransmission">
    <actuator name="l_arm_wrx_motor"/>
    <joint name="l_arm_wrx"/>
    <mechanicalReduction>1</mechanicalReduction>
  </transmission>
  <transmission name="l_arm_shx_trans" type="pr2_mechanism_model/SimpleTransmission">
    <actuator name="l_arm_shx_motor"/>
    <joint name="l_arm_shx"/>
    <mechanicalReduction>1</mechanicalReduction>
  </transmission>
  <transmission name="l_arm_shy_trans" type="pr2_mechanism_model/SimpleTransmission">
    <actuator name="l_arm_shy_motor"/>
    <joint name="l_arm_shy"/>
    <mechanicalReduction>1</mechanicalReduction>
  </transmission>
  <transmission name="l_arm_wry_trans" type="pr2_mechanism_model/SimpleTransmission">
    <actuator name="l_arm_wry_motor"/>
    <joint name="l_arm_wry"/>
    <mechanicalReduction>1</mechanicalReduction>
  </transmission>
  <transmission name="l_leg_kny_trans" type="pr2_mechanism_model/SimpleTransmission">
    <actuator name="l_leg_kny_motor"/>
    <joint name="l_leg_kny"/>
    <mechanicalReduction>1</mechanicalReduction>
  </transmission>
  <transmission name="l_leg_akx_trans" type="pr2_mechanism_model/SimpleTransmission">
    <actuator name="l_leg_akx_motor"/>
    <joint name="l_leg_akx"/>
    <mechanicalReduction>1</mechanicalReduction>
  </transmission>
  <transmission name="l_leg_hpy_trans" type="pr2_mechanism_model/SimpleTransmission">
    <actuator name="l_leg_hpy_motor"/>
    <joint name="l_leg_hpy"/>
    <mechanicalReduction>1</mechanicalReduction>
  </transmission>
  <transmission name="l_leg_hpx_trans" type="pr2_mechanism_model/SimpleTransmission">
    <actuator name="l_leg_hpx_motor"/>
    <joint name="l_leg_hpx"/>
    <mechanicalReduction>1</mechanicalReduction>
  </transmission>
  <transmission name="l_leg_aky_trans" type="pr2_mechanism_model/SimpleTransmission">
    <actuator name="l_leg_aky_motor"/>
    <joint name="l_leg_aky"/>
    <mechanicalReduction>1</mechanicalReduction>
  </transmission>
  <transmission name="l_leg_hpz_trans" type="pr2_mechanism_model/SimpleTransmission">
    <actuator name="l_leg_hpz_motor"/>
    <joint name="l_leg_hpz"/>
    <mechanicalReduction>1</mechanicalReduction>
  </transmission>
  <transmission name="neck_ry_trans" type="pr2_mechanism_model/SimpleTransmission">
    <actuator name="neck_ry_motor"/>
    <joint name="neck_ry"/>
    <mechanicalReduction>1</mechanicalReduction>
  </transmission>
  <transmission name="r_arm_elx_trans" type="pr2_mechanism_model/SimpleTransmission">
    <actuator name="r_arm_elx_motor"/>
    <joint name="r_arm_elx"/>
    <mechanicalReduction>1</mechanicalReduction>
  </transmission>
  <transmission name="r_arm_ely_trans" type="pr2_mechanism_model/SimpleTransmission">
    <actuator name="r_arm_ely_motor"/>
    <joint name="r_arm_ely"/>
    <mechanicalReduction>1</mechanicalReduction>
  </transmission>
  <transmission name="r_arm_wrx_trans" type="pr2_mechanism_model/SimpleTransmission">
    <actuator name="r_arm_wrx_motor"/>
    <joint name="r_arm_wrx"/>
    <mechanicalReduction>1</mechanicalReduction>
  </transmission>
  <transmission name="r_arm_shx_trans" type="pr2_mechanism_model/SimpleTransmission">
    <actuator name="r_arm_shx_motor"/>
    <joint name="r_arm_shx"/>
    <mechanicalReduction>1</mechanicalReduction>
  </transmission>
  <transmission name="r_arm_shy_trans" type="pr2_mechanism_model/SimpleTransmission">
    <actuator name="r_arm_shy_motor"/>
    <joint name="r_arm_shy"/>
    <mechanicalReduction>1</mechanicalReduction>
  </transmission>
  <transmission name="r_arm_wry_trans" type="pr2_mechanism_model/SimpleTransmission">
    <actuator name="r_arm_wry_motor"/>
    <joint name="r_arm_wry"/>
    <mechanicalReduction>1</mechanicalReduction>
  </transmission>
  <transmission name="r_leg_kny_trans" type="pr2_mechanism_model/SimpleTransmission">
    <actuator name="r_leg_kny_motor"/>
    <joint name="r_leg_kny"/>
    <mechanicalReduction>1</mechanicalReduction>
  </transmission>
  <transmission name="r_leg_akx_trans" type="pr2_mechanism_model/SimpleTransmission">
    <actuator name="r_leg_akx_motor"/>
    <joint name="r_leg_akx"/>
    <mechanicalReduction>1</mechanicalReduction>
  </transmission>
  <transmission name="r_leg_hpy_trans" type="pr2_mechanism_model/SimpleTransmission">
    <actuator name="r_leg_hpy_motor"/>
    <joint name="r_leg_hpy"/>
    <mechanicalReduction>1</mechanicalReduction>
  </transmission>
  <transmission name="r_leg_hpx_trans" type="pr2_mechanism_model/SimpleTransmission">
    <actuator name="r_leg_hpx_motor"/>
    <joint name="r_leg_hpx"/>
    <mechanicalReduction>1</mechanicalReduction>
  </transmission>
  <transmission name="r_leg_aky_trans" type="pr2_mechanism_model/SimpleTransmission">
    <actuator name="r_leg_aky_motor"/>
    <joint name="r_leg_aky"/>
    <mechanicalReduction>1</mechanicalReduction>
  </transmission>
  <transmission name="r_leg_hpz_trans" type="pr2_mechanism_model/SimpleTransmission">
    <actuator name="r_leg_hpz_motor"/>
    <joint name="r_leg_hpz"/>
    <mechanicalReduction>1</mechanicalReduction>
  </transmission>
  <link name="head">
    <inertial>
      <origin rpy="0 0 0" xyz="-0.075493 3.3383E-05 0.02774"/>
      <mass value="1.41984"/>
      <!--<inertia iyy="0.0041178" ixy="-1.5797E-06" iyz="-6.8415E-07" ixx="0.0039688" ixz="-0.00089293" izz="0.0035243" />-->
      <inertia ixx="0.0036053766" ixy="-1.5797E-06" ixz="-0.00089293" iyy="0.002080106" iyz="-6.8415E-07" izz="0.001782985"/>
    </inertial>
    <visual>
      <origin rpy="0 0 0" xyz="0 0 0"/>
      <geometry>
        <mesh filename="package://multisense_sl_description/meshes/head.dae"/>
      </geometry>
      <material name="">
        <color rgba="0.9098 0.44314 0.031373 1"/>
      </material>
    </visual>
    <collision >
      <origin rpy="0 0 0" xyz="-0.0503 0 -0.00195"/>
      <geometry>
        <box size="0.1311 0.12 0.0591"/>
      </geometry>
    </collision>
    <collision >
      <origin rpy="0 0 0" xyz="-0.093 0 0.0868"/>
      <geometry>
        <box size="0.0468 0.12 0.1184"/>
      </geometry>
    </collision>
  </link>
  <link name="hokuyo_link">
    <inertial>
      <origin rpy="0 0 0" xyz="0.012428 0.0004084 -0.0041835"/>
      <mass value="0.057654"/>
      <!--<inertia iyy="4.2412E-05" ixy="4.9927E-08" iyz="-9.8165E-09" ixx="3.7174E-05" ixz="1.1015E-05" izz="4.167E-05" />-->
      <!-- distribute iyy and izz equally between head and hokuyo_link given it's constrainted anyways -->
      <!-- tweak ixx of hokuyo so it's larger, 1/10th of head ixx. -->
      <inertia ixx="0.0004005974" ixy="4.9927E-08" ixz="1.1015E-05" iyy="0.002080106" iyz="-9.8165E-09" izz="0.001782985"/>
    </inertial>
    <visual>
      <!--origin xyz="0.065774 -0.001163 -0.08809" rpy="0 0 0" /-->
      <!--origin xyz="0.045 -0.001163 -0.08809" rpy="-0.314 0 0" /-->
      <origin rpy="-0.314 0 0" xyz="0.045 -0.0261018277 -0.08342369"/>
      <geometry>
        <mesh filename="package://multisense_sl_description/meshes/head_camera.dae"/>
      </geometry>
      <material name="">
        <color rgba="0.72941 0.35686 0.023529 1"/>
      </material>
    </visual>
    <collision >
      <origin rpy="0 0 0" xyz="0.01885 0 -0.02119"/>
      <geometry>
        <box size="0.08 0.06 0.04238"/>
      </geometry>
    </collision>
    <collision >
      <origin rpy="0 0 0" xyz="0.03 0 0.0235"/>
      <geometry>
        <cylinder length="0.047" radius="0.024425"/>
      </geometry>
    </collision>
  </link>
  <gazebo reference="head">
    <mu1>0.9</mu1>
    <mu2>0.9</mu2>
  </gazebo>
  <gazebo reference="hokuyo_link">
    <mu1>0.9</mu1>
    <mu2>0.9</mu2>
  </gazebo>
  <joint name="hokuyo_joint" type="continuous">
    <origin rpy="0 0 0" xyz="-0.0446 0 0.0880"/>
    <parent link="head"/>
    <child link="hokuyo_link"/>
    <axis xyz="1 0 0"/>
    <dynamics damping="0.01" friction="0"/>
  </joint>
  <joint name="head_hokuyo_joint" type="fixed">
    <axis xyz="0 1 0"/>
    <origin rpy="0 0 0" xyz="0.03 0 0.015"/>
    <parent link="hokuyo_link"/>
    <child link="head_hokuyo_frame"/>
  </joint>
  <link name="head_hokuyo_frame">
    <inertial>
      <mass value="1e-5"/>
      <!-- collocate with parent link and remove mass from it -->
      <origin rpy="0 0 0" xyz="0.042428 0.0004084 0.0108165"/>
      <inertia ixx="1e-6" ixy="0" ixz="0" iyy="1e-6" iyz="0" izz="1e-6"/>
    </inertial>
  </link>
  <gazebo reference="head_hokuyo_frame">
    <sensor name="head_hokuyo_sensor" type="gpu_ray">
      <pose>0 0 0 0 0 0</pose>
      <visualize>false</visualize>
      <update_rate>40</update_rate>
      <ray>
        <scan>
          <horizontal>
            <samples>720</samples>
            <resolution>1</resolution>
            <min_angle>-1.570796</min_angle>
            <max_angle>1.570796</max_angle>
          </horizontal>
        </scan>
        <range>
          <min>0.10</min>
          <max>30.0</max>
          <resolution>0.01</resolution>
        </range>
        <noise>
          <type>gaussian</type>
          <!-- Noise parameters based on published spec for Hokuyo laser
               achieving "+-30mm" accuracy at range < 10m.  A mean of 0.0m and
               stddev of 0.01m will put 99.7% of samples within 0.03m of the true
               reading. -->
          <mean>0.0</mean>
          <stddev>0.01</stddev>
        </noise>
      </ray>
      <plugin filename="libgazebo_ros_gpu_laser.so" name="gazebo_ros_head_hokuyo_controller">
        <topicName>/laser/scan</topicName>
        <frameName>head_hokuyo_frame</frameName>
      </plugin>
    </sensor>
  </gazebo>
  <joint name="left_camera_frame_joint" type="fixed">
    <!-- optical frame collocated with tilting DOF -->
    <origin xyz="0.0 0.035 -0.002"/>
    <parent link="head"/>
    <child link="left_camera_frame"/>
  </joint>
  <link name="left_camera_frame">
    <inertial>
      <mass value="1e-5"/>
      <!-- collocate with parent link and remove mass from it -->
      <origin xyz="-0.075493 0.035033383 0.02574"/>
      <inertia ixx="1e-6" ixy="0" ixz="0" iyy="1e-6" iyz="0" izz="1e-6"/>
    </inertial>
  </link>
  <joint name="left_camera_optical_frame_joint" type="fixed">
    <origin rpy="-1.5708 0.0 -1.5708" xyz="0 0 0"/>
    <parent link="left_camera_frame"/>
    <child link="left_camera_optical_frame"/>
  </joint>
  <link name="left_camera_optical_frame"/>
  <gazebo reference="left_camera_frame">
    <sensor name="stereo_camera" type="multicamera">
      <!-- see MultiSenseSLPlugin.h for available modes -->
      <update_rate>30.0</update_rate>
      <camera name="left">
        <!-- Spec sheet says 80deg X 45deg @ 1024x544pix.  Based on feedback
             from teams, we're instead doing 80deg X 80deg @ 800x800pix. -->
        <horizontal_fov>1.3962634</horizontal_fov>
        <image>
          <width>800</width>
          <height>800</height>
          <format>R8G8B8</format>
        </image>
        <clip>
          <near>0.02</near>
          <far>300</far>
        </clip>
        <noise>
          <type>gaussian</type>
          <!-- Noise is sampled independently per pixel on each frame.  
               That pixel's noise value is added to each of its color
               channels, which at that point lie in the range [0,1].
               The stddev value of 0.007 is based on experimental data 
               from a camera in a Sandia hand pointed at a static scene
               in a couple of different lighting conditions.  -->
          <mean>0.0</mean>
          <stddev>0.007</stddev>
        </noise>
      </camera>
      <camera name="right">
        <pose>0 -0.07 0 0 0 0</pose>
        <!-- Spec sheet says 80deg X 45deg @ 1024x544pix.  Based on feedback
             from teams, we're instead doing 80deg X 80deg @ 800x800pix. -->
        <horizontal_fov>1.3962634</horizontal_fov>
        <image>
          <width>800</width>
          <height>800</height>
          <format>R8G8B8</format>
        </image>
        <clip>
          <near>0.02</near>
          <far>300</far>
        </clip>
        <noise>
          <type>gaussian</type>
          <!-- Noise is sampled independently per pixel on each frame.  
               That pixel's noise value is added to each of its color
               channels, which at that point lie in the range [0,1].
               The stddev value of 0.007 is based on experimental data 
               from a camera in a Sandia hand pointed at a static scene
               in a couple of different lighting conditions.  -->
          <mean>0.0</mean>
          <stddev>0.007</stddev>
        </noise>
      </camera>
      <plugin filename="libgazebo_ros_multicamera.so" name="stereo_camera_controller">
        <alwaysOn>true</alwaysOn>
        <updateRate>0.0</updateRate>
        <cameraName>multisense_sl</cameraName>
        <imageTopicName>image_raw</imageTopicName>
        <cameraInfoTopicName>camera_info</cameraInfoTopicName>
        <frameName>left_camera_optical_frame</frameName>
        <!--<rightFrameName>right_camera_optical_frame</rightFrameName>-->
        <hackBaseline>0.07</hackBaseline>
        <distortionK1>0.0</distortionK1>
        <distortionK2>0.0</distortionK2>
        <distortionK3>0.0</distortionK3>
        <distortionT1>0.0</distortionT1>
        <distortionT2>0.0</distortionT2>
      </plugin>
    </sensor>
  </gazebo>
  <joint name="right_camera_frame_joint" type="fixed">
    <origin xyz="0.0 -0.035 -0.002"/>
    <parent link="head"/>
    <child link="right_camera_frame"/>
  </joint>
  <link name="right_camera_frame">
    <inertial>
      <mass value="1e-5"/>
      <!-- collocate with parent link and remove mass from it -->
      <origin xyz="-0.075493 -0.034966617 0.02574"/>
      <inertia ixx="1e-6" ixy="0" ixz="0" iyy="1e-6" iyz="0" izz="1e-6"/>
    </inertial>
  </link>
  <joint name="right_camera_optical_frame_joint" type="fixed">
    <origin rpy="-1.5708 0.0 -1.5708" xyz="0 0 0"/>
    <parent link="right_camera_frame"/>
    <child link="right_camera_optical_frame"/>
  </joint>
  <link name="right_camera_optical_frame"/>
  <joint name="center_top_led_frame_joint" type="fixed">
    <origin xyz="0.01125 0.0 0.0105"/>
    <parent link="head"/>
    <child link="center_top_led_frame"/>
  </joint>
  <link name="center_top_led_frame">
    <inertial>
      <mass value="1e-5"/>
      <!-- collocate with parent link and remove mass from it -->
      <origin rpy="0 0 0" xyz="-0.064243 0.000033383 0.03824"/>
      <inertia ixx="1e-6" ixy="0" ixz="0" iyy="1e-6" iyz="0" izz="1e-6"/>
    </inertial>
  </link>
  <joint name="center_bottom_led_frame_joint" type="fixed">
    <origin xyz="0.01125 0.0 -0.0155"/>
    <parent link="head"/>
    <child link="center_bottom_led_frame"/>
  </joint>
  <link name="center_bottom_led_frame">
    <inertial>
      <mass value="1e-5"/>
      <!-- collocate with parent link and remove mass from it -->
      <origin rpy="0 0 0" xyz="-0.064243 0.000033383 0.01224"/>
      <inertia ixx="1e-6" ixy="0" ixz="0" iyy="1e-6" iyz="0" izz="1e-6"/>
    </inertial>
  </link>
  <joint name="left_led_frame_joint" type="fixed">
    <origin rpy="0 -0.15 0.53" xyz="-0.01443 0.07452 0.050346"/>
    <parent link="head"/>
    <child link="left_led_frame"/>
  </joint>
  <link name="left_led_frame">
    <inertial>
      <mass value="1e-5"/>
      <!-- collocate with parent link and remove mass from it -->
      <origin rpy="0 -0.15 0.53" xyz="-0.089923 0.074553383 0.078086"/>
      <inertia ixx="1e-6" ixy="0" ixz="0" iyy="1e-6" iyz="0" izz="1e-6"/>
    </inertial>
  </link>
  <joint name="right_led_frame_joint" type="fixed">
    <origin rpy="0 -0.15 -0.53" xyz="-0.01443 -0.07452 0.050346"/>
    <parent link="head"/>
    <child link="right_led_frame"/>
  </joint>
  <link name="right_led_frame">
    <inertial>
      <mass value="1e-5"/>
      <!-- collocate with parent link and remove mass from it -->
      <origin rpy="0 -0.15 -0.53" xyz="-0.089923 -0.074486617 0.07908"/>
      <inertia ixx="1e-6" ixy="0" ixz="0" iyy="1e-6" iyz="0" izz="1e-6"/>
    </inertial>
  </link>
  <gazebo>
    <plugin filename="libMultiSenseSLPlugin.so" name="multisense_plugin"/>
  </gazebo>
  <link name="head_imu_link">
    <inertial>
      <mass value="1e-5"/>
      <!-- collocate with parent link and remove mass from it -->
      <origin rpy="0 0 0" xyz="-0.122993 0.035033383 0.02774"/>
      <inertia ixx="1e-6" ixy="0" ixz="0" iyy="1e-6" iyz="0" izz="1e-6"/>
    </inertial>
    <visual>
      <origin rpy="0 0 0" xyz="0 0 0"/>
      <geometry>
        <box size="0.01 0.01 0.01"/>
      </geometry>
    </visual>
  </link>
  <joint name="head_imu_joint" type="fixed">
    <parent link="head"/>
    <child link="head_imu_link"/>
    <!-- putting it at the same z-level as the stereo -->
    <origin rpy="0 0 0" xyz="-0.0475 0.035 0.0"/>
  </joint>
  <gazebo reference="head_imu_link">
    <!-- this is expected to be reparented to head with appropriate offset
         when head_imu_link is reduced by fixed joint reduction -->
    <!-- todo: this is working with gazebo 1.4, need to write a unit test -->
    <sensor name="head_imu_sensor" type="imu">
      <always_on>1</always_on>
      <update_rate>1000.0</update_rate>
      <imu>
        <noise>
          <type>gaussian</type>
          <!-- Noise parameters from Boston Dynamics
               (http://gazebosim.org/wiki/Sensor_noise):
                 rates (rad/s): mean=0, stddev=2e-4
                 accels (m/s/s): mean=0, stddev=1.7e-2
                 rate bias (rad/s): 5e-6 - 1e-5
                 accel bias (m/s/s): 1e-1
               Experimentally, simulation provide rates with noise of
               about 1e-3 rad/s and accels with noise of about 1e-1 m/s/s.
               So we don't expect to see the noise unless number of inner iterations
               are increased.

               We will add bias.  In this model, bias is sampled once for rates
               and once for accels at startup; the sign (negative or positive)
               of each bias is then switched with equal probability.  Thereafter,
               the biases are fixed additive offsets.  We choose
               bias means and stddevs to produce biases close to the provided
               data. -->
          <rate>
            <mean>0.0</mean>
            <stddev>2e-4</stddev>
            <bias_mean>0.0000075</bias_mean>
            <bias_stddev>0.0000008</bias_stddev>
          </rate>
          <accel>
            <mean>0.0</mean>
            <stddev>1.7e-2</stddev>
            <bias_mean>0.1</bias_mean>
            <bias_stddev>0.001</bias_stddev>
          </accel>
        </noise>
      </imu>
    </sensor>
  </gazebo>
  <gazebo>
    <!-- include plugin for sandia hands -->
    <plugin filename="libSandiaHandPlugin.so" name="sandia_hand_plugin"/>
  </gazebo>
</robot>
